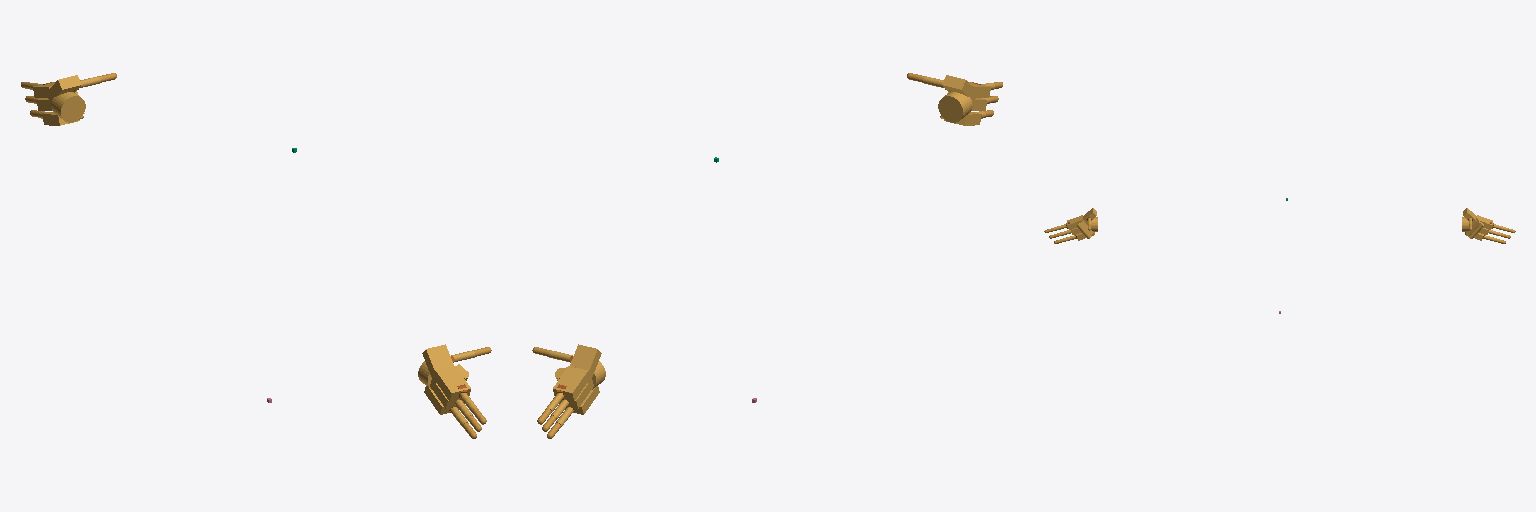
--- Facts derived from the render (not from the file) ---
The picture shows the robot from 3 angles, left to right: view 1: azimuth 30°, elevation 25°; view 2: azimuth 150°, elevation 25°; view 3: azimuth 270°, elevation 25°; orthographic projection.
Robot: atlas — 107 links, 106 joints (52 revolute, 1 continuous, 53 fixed); root link pelvis; default pose: all joints at 0.
Visible links, largest first — view 1: right_palm, left_palm; view 2: left_palm, right_palm; view 3: right_palm, left_palm.
Link boxes in pixels (bbox=[...]): right_palm: bbox=[418, 344, 470, 414]; left_palm: bbox=[33, 75, 85, 125]; left_palm: bbox=[553, 344, 605, 414]; right_palm: bbox=[938, 75, 990, 125]; right_palm: bbox=[1067, 208, 1097, 240]; left_palm: bbox=[1462, 208, 1492, 240].
Size in the robot's own frame: 0.196 by 2.44 by 0.7021 metres.
Meshes: 30 distinct files referenced, 0 mesh visuals loaded (none loaded); not drawn: 30 (reference not matched to a file when rendering).

URDF robot description (atlas):
<?xml version="1.0" ?>
<!-- =================================================================================== -->
<!-- |    This document was autogenerated by xacro from /tmp/buildd/drcsim-2.6.1/ros/atlas_description/robots/atlas_sandia_hands.urdf.xacro | -->
<!-- |    EDITING THIS FILE BY HAND IS NOT RECOMMENDED                                 | -->
<!-- =================================================================================== -->
<robot name="atlas" xmlns:xacro="http://www.ros.org/wiki/xacro">
  <link name="l_clav">
    <inertial>
      <mass value="2.369"/>
      <origin rpy="0 -0 0" xyz="0.014 0.058 0.029"/>
      <inertia ixx="0.004" ixy="0.001" ixz="0" iyy="0.006" iyz="0" izz="0.007"/>
    </inertial>
    <visual>
      <origin rpy="1.04719755 0 0" xyz="0 0 0"/>
      <geometry>
        <mesh filename="package://atlas/meshes/l_clav.dae" scale="1 1 1"/>
      </geometry>
    </visual>
    <collision group="default">
      <origin rpy="0 1.5707963267949 0" xyz="0 0.0697 0.0261"/>
      <geometry>
        <cylinder length="0.1525" radius="0.045"/>
      </geometry>
    </collision>
    <collision group="other">
      <origin rpy="1.0472 0 0" xyz="-0.005 -0.0074 -0.0538"/>
      <geometry>
        <box size="0.13 0.15 0.05"/>
      </geometry>
    </collision>
  </link>
  <link name="l_farm">
    <inertial>
      <mass value="0.981"/>
      <origin rpy="0 -0 0" xyz="0 0.041 0"/>
      <inertia ixx="0.003" ixy="0" ixz="0" iyy="0.001" iyz="0" izz="0.003"/>
    </inertial>
    <visual>
      <origin rpy="0 -0 0" xyz="0 -0.06 0"/>
      <geometry>
        <mesh filename="package://atlas/meshes/l_farm.dae" scale="1 1 1"/>
      </geometry>
    </visual>
    <collision group="default">
      <origin rpy="0 1.5708 0" xyz="0.0 0.065 0.004"/>
      <geometry>
        <cylinder length="0.125" radius="0.045"/>
      </geometry>
    </collision>
    <collision group="other">
      <origin rpy="0 0 0" xyz="0.001 0.015 -0.002"/>
      <geometry>
        <box size="0.135 0.1 0.045"/>
      </geometry>
    </collision>
  </link>
  <link name="l_foot">
    <inertial>
      <mass value="0.867"/>
      <origin rpy="0 -0 0" xyz="0.027 0 -0.067"/>
      <inertia ixx="0.002" ixy="0" ixz="0" iyy="0.00350421" iyz="0" izz="0.00400651"/>
    </inertial>
    <visual>
      <origin rpy="0 -0 0" xyz="0 0 0"/>
      <geometry>
        <mesh filename="package://atlas/meshes/l_foot.dae" scale="1 1 1"/>
      </geometry>
    </visual>
    <!-- bottom -->
    <collision group="default">
      <origin rpy="0 0 0" xyz="0.048 0 -0.056119"/>
      <geometry>
        <box size="0.26 0.124887 0.05"/>
      </geometry>
    </collision>
    <!-- ankle FIXME: adding this collision body destabilizes robot, shouldn't
        <collision group="other">
          <origin xyz="0.0 0 -0.0528735" rpy="0 0 0"/>
          <geometry>
            <cylinder radius="0.0373" length="0.037827"/>
          </geometry>
        </collision>
        -->
  </link>
  <link name="l_hand">
    <inertial>
      <mass value="2.263"/>
      <origin rpy="0 -0 0" xyz="0 0.093 0"/>
      <inertia ixx="0.01" ixy="0" ixz="0" iyy="0.002" iyz="0" izz="0.01"/>
    </inertial>
    <visual>
      <origin rpy="0 -0 0" xyz="0 0 0"/>
      <geometry>
        <mesh filename="package://atlas/meshes/l_hand.dae" scale="1 1 1"/>
      </geometry>
    </visual>
    <collision group="default">
      <origin rpy="1.5707963267949 0 0" xyz="0.001 0.1 0.01"/>
      <geometry>
        <cylinder length="0.05" radius="0.03"/>
      </geometry>
    </collision>
    <collision group="other">
      <origin rpy="0 0 0" xyz="0.001 0.05 0.01"/>
      <geometry>
        <box size="0.13 0.09 0.07"/>
      </geometry>
    </collision>
  </link>
  <link name="l_larm">
    <inertial>
      <mass value="2.148"/>
      <origin rpy="0 -0 0" xyz="-0.003 0.099 -0.014"/>
      <inertia ixx="0.005" ixy="0" ixz="0" iyy="0.003" iyz="0" izz="0.006"/>
    </inertial>
    <visual>
      <origin rpy="0 -0 0" xyz="0 0 0"/>
      <geometry>
        <mesh filename="package://atlas/meshes/l_larm.dae" scale="1 1 1"/>
      </geometry>
    </visual>
    <collision group="default">
      <origin rpy="1.5707963267949 0 0" xyz="0.001 0.127 0.00"/>
      <geometry>
        <cylinder length="0.125" radius="0.045"/>
      </geometry>
    </collision>
    <collision group="other">
      <origin rpy="0 0 0" xyz="0.001 0.051 0.0"/>
      <geometry>
        <box size="0.135 0.15 0.06"/>
      </geometry>
    </collision>
  </link>
  <link name="l_lglut">
    <inertial>
      <mass value="0.803"/>
      <origin rpy="0 -0 0" xyz="0.0133341 0.0170484 -0.0312052"/>
      <inertia ixx="0.0453457" ixy="-2.24344e-05" ixz="2.50508e-06" iyy="0.0174182" iyz="0.000137862" izz="0.0071591"/>
    </inertial>
    <visual>
      <origin rpy="0 -0 0" xyz="0 0 0"/>
      <geometry>
        <mesh filename="package://atlas/meshes/l_lglut.dae" scale="1 1 1"/>
      </geometry>
    </visual>
    <collision group="default">
      <origin rpy="1.5707963267949 0 0" xyz="0.049968 0.022488 -0.0501165"/>
      <geometry>
        <cylinder length="0.060306" radius="0.02009687"/>
      </geometry>
    </collision>
    <collision group="other">
      <origin rpy="0 1.5707963267949 0" xyz="0 0 0"/>
      <geometry>
        <cylinder length="0.12" radius="0.02"/>
      </geometry>
    </collision>
  </link>
  <link name="l_lleg">
    <inertial>
      <mass value="4.367"/>
      <origin rpy="0 -0 0" xyz="0.001 0 -0.187"/>
      <inertia ixx="0.077" ixy="0" ixz="-0.003" iyy="0.076" iyz="0" izz="0.01"/>
    </inertial>
    <visual>
      <origin rpy="0 -0 0" xyz="0 0 0"/>
      <geometry>
        <mesh filename="package://atlas/meshes/l_lleg.dae" scale="1.0 1.0 1.0"/>
      </geometry>
    </visual>
    <collision group="default">
      <origin rpy="0 0.10 0" xyz="0.02 0.00295 -0.18"/>
      <geometry>
        <cylinder length="0.40" radius="0.07"/>
      </geometry>
    </collision>
  </link>
  <link name="l_scap">
    <inertial>
      <mass value="2.707"/>
      <origin rpy="0 -0 0" xyz="-0.002 0.108 0"/>
      <inertia ixx="0.01" ixy="0" ixz="0" iyy="0.005" iyz="0" izz="0.013"/>
    </inertial>
    <visual>
      <origin rpy="0 0 0" xyz="0 0 0"/>
      <geometry>
        <mesh filename="package://atlas/meshes/l_scap.dae" scale="1 1 1"/>
      </geometry>
    </visual>
    <collision group="default">
      <origin rpy="1.5707963267949 0 0" xyz="0.001 0.12651 0.01521"/>
      <geometry>
        <cylinder length="0.125" radius="0.045"/>
      </geometry>
    </collision>
    <collision group="other">
      <origin rpy="0 0 0" xyz="0.001 0.05 0.016"/>
      <geometry>
        <box size="0.15 0.15 0.06"/>
      </geometry>
    </collision>
  </link>
  <link name="l_talus">
    <inertial>
      <mass value="0.867"/>
      <origin rpy="0 -0 0" xyz="0 0 0"/>
      <inertia ixx="0.001" ixy="0" ixz="0" iyy="0.00350421" iyz="0" izz="0.00400651"/>
    </inertial>
    <visual>
      <origin rpy="0 -0 0" xyz="0 0 0"/>
      <geometry>
        <mesh filename="package://atlas/meshes/l_talus.dae" scale="1 1 1"/>
      </geometry>
    </visual>
    <collision group="default">
      <origin rpy="0 1.5707963267949 0" xyz="0 0 0"/>
      <geometry>
        <cylinder length="0.029542" radius="0.010181"/>
      </geometry>
    </collision>
    <collision group="other">
      <origin rpy="1.5707963267949 0 0" xyz="0 0 0"/>
      <geometry>
        <cylinder length="0.010059" radius="0.010348"/>
      </geometry>
    </collision>
  </link>
  <link name="l_uarm">
    <inertial>
      <mass value="1.881"/>
      <origin rpy="0 -0 0" xyz="0.007 0.114 0.008"/>
      <inertia ixx="0.002" ixy="0" ixz="0" iyy="0.003" iyz="0" izz="0.003"/>
    </inertial>
    <visual>
      <origin rpy="0 -0 0" xyz="0 0 0"/>
      <geometry>
        <mesh filename="package://atlas/meshes/l_uarm.dae" scale="1 1 1"/>
      </geometry>
    </visual>
    <collision group="default">
      <origin rpy="0 1.5708 0" xyz="0.001 0.111 0.0"/>
      <geometry>
        <cylinder length="0.125" radius="0.045"/>
      </geometry>
    </collision>
    <collision group="other">
      <origin rpy="0 1.5707963267949 0" xyz="0.001 0.043 0.01"/>
      <geometry>
        <box size="0.04 0.07 0.13"/>
      </geometry>
    </collision>
  </link>
  <link name="l_uglut">
    <inertial>
      <mass value="1.51622"/>
      <origin rpy="0 -0 0" xyz="0.00529262 -0.00344732 0.00313046"/>
      <inertia ixx="0.0327037" ixy="-3.79607e-08" ixz="-2.79549e-05" iyy="0.0174182" iyz="-3.2735e-08" izz="0.0071591"/>
    </inertial>
    <visual>
      <origin rpy="0 -0 0" xyz="0 0 0"/>
      <geometry>
        <mesh filename="package://atlas/meshes/l_uglut.dae" scale="1 1 1"/>
      </geometry>
    </visual>
    <collision group="default">
      <origin rpy="0 1.5707963267949 0" xyz="0 0 0"/>
      <geometry>
        <cylinder length="0.078396" radius="0.019096"/>
      </geometry>
    </collision>
    <collision group="other">
      <origin rpy="0 0 0" xyz="0 0 0"/>
      <geometry>
        <cylinder length="0.080842" radius="0.019841"/>
      </geometry>
    </collision>
  </link>
  <link name="l_uleg">
    <inertial>
      <mass value="7.227"/>
      <origin rpy="0 -0 0" xyz="0 0 -0.21"/>
      <inertia ixx="0.0453457" ixy="0" ixz="0" iyy="0.09" iyz="0" izz="0.0071591"/>
    </inertial>
    <visual>
      <origin rpy="0 -0 0" xyz="0 0 0"/>
      <geometry>
        <mesh filename="package://atlas/meshes/l_uleg.dae" scale="1.0 1.0 1.0"/>
      </geometry>
    </visual>
    <collision group="default">
      <origin rpy="0 0 0" xyz="-0.0179 0.02085 -0.13"/>
      <geometry>
        <cylinder length="0.10" radius="0.1"/>
      </geometry>
    </collision>
    <collision group="other">
      <origin rpy="0 -0.3 0" xyz="-0.03 0.01 -0.23"/>
      <geometry>
        <cylinder length="0.15" radius="0.07"/>
      </geometry>
    </collision>
    <collision group="other">
      <origin rpy="0 0.3 0" xyz="-0.005 0.01 -0.23"/>
      <geometry>
        <cylinder length="0.15" radius="0.07"/>
      </geometry>
    </collision>
    <collision group="other">
      <origin rpy="-0.25 0 0" xyz="-0.02 0.03 -0.23"/>
      <geometry>
        <cylinder length="0.15" radius="0.07"/>
      </geometry>
    </collision>
  </link>
  <link name="ltorso">
    <inertial>
      <mass value="1.62729"/>
      <origin rpy="0 -0 0" xyz="-0.0112984 -3.15366e-06 0.0746835"/>
      <inertia ixx="0.0646646" ixy="-5.04491e-08" ixz="-0.000342157" iyy="0.050298" iyz="4.87119e-07" izz="0.10973"/>
    </inertial>
    <visual>
      <origin rpy="0 -0 0" xyz="0 0 0"/>
      <geometry>
        <mesh filename="package://atlas/meshes/ltorso.dae" scale="1 1 1"/>
      </geometry>
    </visual>
    <!-- this part is completely internal
        <collision group="default">
          <origin rpy="0 0 0" xyz="0 0 0.039762"/>
          <geometry>
            <cylinder radius="0.025918" length="0.076922"/>
          </geometry>
        </collision>
        <collision group="other">
          <origin rpy="1.5707963267949 0 0" xyz="0 0.0250065 0.09025"/>
          <geometry>
            <cylinder radius="0.014828" length="0.020367"/>
          </geometry>
        </collision>
        <collision group="other">
          <origin rpy="1.5707963267949 0 0" xyz="0 -0.0248895 0.09025"/>
          <geometry>
            <cylinder radius="0.014828" length="0.020169"/>
          </geometry>
        </collision>
        -->
  </link>
  <link name="mtorso">
    <inertial>
      <mass value="3.8068"/>
      <origin rpy="0 -0 0" xyz="-0.00816266 -0.0131245 0.0305974"/>
      <inertia ixx="0.1975" ixy="-6.10764e-05" ixz="3.94009e-05" iyy="0.544742" iyz="5.27463e-05" izz="0.10973"/>
    </inertial>
    <visual>
      <origin rpy="0 -0 0" xyz="0 0 0"/>
      <geometry>
        <mesh filename="package://atlas/meshes/mtorso.dae" scale="1 1 1"/>
      </geometry>
    </visual>
    <collision group="default">
      <origin rpy="1.5707963267949 0 0" xyz="0 0 0"/>
      <geometry>
        <cylinder length="0.03" radius="0.017"/>
      </geometry>
    </collision>
    <collision group="other">
      <origin rpy="0 1.5707963267949 0" xyz="0.0285 0 0.05"/>
      <geometry>
        <cylinder length="0.02" radius="0.015"/>
      </geometry>
    </collision>
    <collision group="other">
      <origin rpy="0 1.5707963267949 0" xyz="-0.0285 0 0.05"/>
      <geometry>
        <cylinder length="0.02" radius="0.015"/>
      </geometry>
    </collision>
  </link>
  <link name="pelvis">
    <inertial>
      <mass value="12.54638"/>
      <origin rpy="0 -0 0" xyz="0.0111 0 0.0271"/>
      <inertia ixx="0.0327037" ixy="0.0008" ixz="-0.0007" iyy="0.0174182" iyz="-0.0005" izz="0.118059"/>
    </inertial>
    <visual>
      <origin rpy="0 -0 0" xyz="0 0 0"/>
      <geometry>
        <mesh filename="package://atlas/meshes/pelvis.dae" scale="1.0 1.0 1.0"/>
      </geometry>
    </visual>
    <collision group="default">
      <origin rpy="1.5707963267949 0 0" xyz="0.046 0.0 -0.02"/>
      <geometry>
        <cylinder length="0.06" radius="0.11"/>
      </geometry>
    </collision>
    <collision group="other">
      <origin rpy="1.5707963267949 0 0" xyz="-0.03 0.0 -0.02"/>
      <geometry>
        <cylinder length="0.06" radius="0.11"/>
      </geometry>
    </collision>
    <collision group="other">
      <origin rpy="0 0 0" xyz="0.01 0.042 0.09"/>
      <geometry>
        <cylinder length="0.05" radius="0.16"/>
      </geometry>
    </collision>
    <collision group="other">
      <origin rpy="0 0 0" xyz="0.01 -0.042 0.09"/>
      <geometry>
        <cylinder length="0.05" radius="0.16"/>
      </geometry>
    </collision>
    <collision group="other">
      <origin rpy="0 0 0" xyz="-0.1 0 -0.05"/>
      <geometry>
        <box size="0.1 0.15 0.2"/>
      </geometry>
    </collision>
  </link>
  <link name="r_clav">
    <inertial>
      <mass value="2.369"/>
      <origin rpy="0 -0 0" xyz="0.014 -0.058 0.029"/>
      <inertia ixx="0.004" ixy="-0.001" ixz="0" iyy="0.006" iyz="0" izz="0.007"/>
    </inertial>
    <visual>
      <origin rpy="-1.04719755 0 0" xyz="0 0 0"/>
      <geometry>
        <mesh filename="package://atlas/meshes/r_clav.dae" scale="1 1 1"/>
      </geometry>
    </visual>
    <collision group="default">
      <origin rpy="0 1.5707963267949 0" xyz="0 -0.0697 0.0261"/>
      <geometry>
        <cylinder length="0.1525" radius="0.045"/>
      </geometry>
    </collision>
    <collision group="other">
      <origin rpy="-1.0472 0 0" xyz="-0.005 0.0074 -0.0538"/>
      <geometry>
        <box size="0.13 0.15 0.05"/>
      </geometry>
    </collision>
  </link>
  <link name="r_farm">
    <inertial>
      <mass value="0.981"/>
      <origin rpy="0 -0 0" xyz="0 -0.041 0"/>
      <inertia ixx="0.003" ixy="0" ixz="0" iyy="0.001" iyz="0" izz="0.003"/>
    </inertial>
    <visual>
      <origin rpy="0 -0 0" xyz="0 0.06 0"/>
      <geometry>
        <mesh filename="package://atlas/meshes/r_farm.dae" scale="1 1 1"/>
      </geometry>
    </visual>
    <collision group="default">
      <origin rpy="0 1.5708 0" xyz="0.0 -0.065 0.004"/>
      <geometry>
        <cylinder length="0.125" radius="0.045"/>
      </geometry>
    </collision>
    <collision group="other">
      <origin rpy="0 0 0" xyz="0.001 -0.015 -0.002"/>
      <geometry>
        <box size="0.135 0.1 0.045"/>
      </geometry>
    </collision>
  </link>
  <link name="r_foot">
    <inertial>
      <mass value="0.867"/>
      <origin rpy="0 -0 0" xyz="0.027 0 -0.067"/>
      <inertia ixx="0.002" ixy="0" ixz="0" iyy="0.00350421" iyz="0" izz="0.00400651"/>
    </inertial>
    <visual>
      <origin rpy="0 -0 0" xyz="0 0 0"/>
      <geometry>
        <mesh filename="package://atlas/meshes/r_foot.dae" scale="1 1 1"/>
      </geometry>
    </visual>
    <!-- bottom -->
    <collision group="default">
      <origin rpy="0 0 0" xyz="0.048 0 -0.056119"/>
      <geometry>
        <box size="0.26 0.124887 0.05"/>
      </geometry>
    </collision>
    <!-- ankle FIXME: adding this collision body destabilizes robot, shouldn't
        <collision group="other">
          <origin xyz="0.0 0 -0.0528735" rpy="0 0 0"/>
          <geometry>
            <cylinder radius="0.0373" length="0.037827"/>
          </geometry>
        </collision>
        -->
  </link>
  <link name="r_hand">
    <inertial>
      <mass value="2.263"/>
      <origin rpy="0 -0 0" xyz="0 -0.093 0"/>
      <inertia ixx="0.01" ixy="0" ixz="0" iyy="0.002" iyz="0" izz="0.01"/>
    </inertial>
    <visual>
      <origin rpy="0 -0 0" xyz="0 0 0"/>
      <geometry>
        <mesh filename="package://atlas/meshes/r_hand.dae" scale="1 1 1"/>
      </geometry>
    </visual>
    <collision group="default">
      <origin rpy="1.5707963267949 0 0" xyz="0.001 -0.1 0.01"/>
      <geometry>
        <cylinder length="0.05" radius="0.03"/>
      </geometry>
    </collision>
    <collision group="other">
      <origin rpy="0 0 0" xyz="0.001 -0.05 0.01"/>
      <geometry>
        <box size="0.13 0.09 0.07"/>
      </geometry>
    </collision>
  </link>
  <link name="r_larm">
    <inertial>
      <mass value="2.148"/>
      <origin rpy="0 -0 0" xyz="-0.003 -0.099 -0.014"/>
      <inertia ixx="0.005" ixy="0" ixz="0" iyy="0.003" iyz="0" izz="0.006"/>
    </inertial>
    <visual>
      <origin rpy="0 -0 0" xyz="0 0 0"/>
      <geometry>
        <mesh filename="package://atlas/meshes/r_larm.dae" scale="1.0 1.0 1.0"/>
      </geometry>
    </visual>
    <collision group="default">
      <origin rpy="1.5707963267949 0 0" xyz="0.001 -0.127 0.00"/>
      <geometry>
        <cylinder length="0.125" radius="0.045"/>
      </geometry>
    </collision>
    <collision group="other">
      <origin rpy="0 0 0" xyz="0.001 -0.051 0.0"/>
      <geometry>
        <box size="0.135 0.15 0.06"/>
      </geometry>
    </collision>
  </link>
  <link name="r_lglut">
    <inertial>
      <mass value="0.803"/>
      <origin rpy="0 -0 0" xyz="0.0133341 -0.0170484 -0.0312052"/>
      <inertia ixx="0.0453457" ixy="2.24344e-05" ixz="2.50508e-06" iyy="0.0174182" iyz="-0.000137862" izz="0.0071591"/>
    </inertial>
    <visual>
      <origin rpy="0 -0 0" xyz="0 0 0"/>
      <geometry>
        <mesh filename="package://atlas/meshes/r_lglut.dae" scale="1.0 1.0 1.0"/>
      </geometry>
    </visual>
    <collision group="default">
      <origin rpy="1.5707963267949 0 0" xyz="0.049968 -0.022488 -0.0501165"/>
      <geometry>
        <cylinder length="0.060306" radius="0.02009687"/>
      </geometry>
    </collision>
    <collision group="other">
      <origin rpy="0 1.5707963267949 0" xyz="0 0 0"/>
      <geometry>
        <cylinder length="0.12" radius="0.02"/>
      </geometry>
    </collision>
  </link>
  <link name="r_lleg">
    <inertial>
      <mass value="4.367"/>
      <origin rpy="0 -0 0" xyz="0.001 0 -0.187"/>
      <inertia ixx="0.077" ixy="-0" ixz="-0.003" iyy="0.076" iyz="-0" izz="0.01"/>
    </inertial>
    <visual>
      <origin rpy="0 -0 0" xyz="0 0 0"/>
      <geometry>
        <mesh filename="package://atlas/meshes/r_lleg.dae" scale="1.0 1.0 1.0"/>
      </geometry>
    </visual>
    <collision group="default">
      <origin rpy="0 0.10 0" xyz="0.02 -0.00295 -0.18"/>
      <geometry>
        <cylinder length="0.40" radius="0.07"/>
      </geometry>
    </collision>
  </link>
  <link name="r_scap">
    <inertial>
      <mass value="2.707"/>
      <origin rpy="0 -0 0" xyz="-0.002 -0.108 0"/>
      <inertia ixx="0.01" ixy="0" ixz="0" iyy="0.005" iyz="0" izz="0.013"/>
    </inertial>
    <visual>
      <origin rpy="0 -0 0" xyz="0 0 0"/>
      <geometry>
        <mesh filename="package://atlas/meshes/r_scap.dae" scale="1 1 1"/>
      </geometry>
    </visual>
    <collision group="default">
      <origin rpy="1.5707963267949 0 0" xyz="0.001 -0.12651 0.01521"/>
      <geometry>
        <cylinder length="0.125" radius="0.045"/>
      </geometry>
    </collision>
    <collision group="other">
      <origin rpy="0 0 0" xyz="0.001 -0.05 0.016"/>
      <geometry>
        <box size="0.15 0.15 0.06"/>
      </geometry>
    </collision>
  </link>
  <link name="r_talus">
    <inertial>
      <mass value="0.867"/>
      <origin rpy="0 -0 0" xyz="0 0 0"/>
      <inertia ixx="0.001" ixy="0" ixz="0" iyy="0.00350421" iyz="0" izz="0.00400651"/>
    </inertial>
    <visual>
      <origin rpy="0 -0 0" xyz="0 0 0"/>
      <geometry>
        <mesh filename="package://atlas/meshes/r_talus.dae" scale="1 1 1"/>
      </geometry>
    </visual>
    <collision group="default">
      <origin rpy="0 1.5707963267949 0" xyz="0 0 0"/>
      <geometry>
        <cylinder length="0.029542" radius="0.010181"/>
      </geometry>
    </collision>
    <collision group="other">
      <origin rpy="1.5707963267949 0 0" xyz="0 0 0"/>
      <geometry>
        <cylinder length="0.010059" radius="0.010348"/>
      </geometry>
    </collision>
  </link>
  <link name="r_uarm">
    <inertial>
      <mass value="1.881"/>
      <origin rpy="0 -0 0" xyz="0.007 -0.114 0.008"/>
      <inertia ixx="0.002" ixy="0" ixz="0" iyy="0.003" iyz="0" izz="0.003"/>
    </inertial>
    <visual>
      <origin rpy="0 -0 0" xyz="0 0 0"/>
      <geometry>
        <mesh filename="package://atlas/meshes/r_uarm.dae" scale="1.0 1.0 1.0"/>
      </geometry>
    </visual>
    <collision group="default">
      <origin rpy="0 1.5708 0" xyz="0.001 -0.111 0.0"/>
      <geometry>
        <cylinder length="0.125" radius="0.045"/>
      </geometry>
    </collision>
    <collision group="other">
      <origin rpy="0 1.5707963267949 0" xyz="0.001 -0.043 0.01"/>
      <geometry>
        <box size="0.04 0.07 0.13"/>
      </geometry>
    </collision>
  </link>
  <link name="r_uglut">
    <inertial>
      <mass value="1.51622"/>
      <origin rpy="0 -0 0" xyz="0.00529262 0.00344732 0.00313046"/>
      <inertia ixx="0.0327037" ixy="3.79607e-08" ixz="-2.79549e-05" iyy="0.0174182" iyz="3.2735e-08" izz="0.0071591"/>
    </inertial>
    <visual>
      <origin rpy="0 -0 0" xyz="0 0 0"/>
      <geometry>
        <mesh filename="package://atlas/meshes/r_uglut.dae" scale="1.0 1.0 1.0"/>
      </geometry>
    </visual>
    <collision group="default">
      <origin rpy="0 1.5707963267949 0" xyz="0 0 0"/>
      <geometry>
        <cylinder length="0.078396" radius="0.019096"/>
      </geometry>
    </collision>
    <collision group="other">
      <origin rpy="0 0 0" xyz="0 0 0"/>
      <geometry>
        <cylinder length="0.080842" radius="0.019841"/>
      </geometry>
    </collision>
  </link>
  <link name="r_uleg">
    <inertial>
      <mass value="7.227"/>
      <origin rpy="0 -0 0" xyz="0 0 -0.21"/>
      <inertia ixx="0.0453457" ixy="0" ixz="0" iyy="0.09" iyz="0" izz="0.0071591"/>
    </inertial>
    <visual>
      <origin rpy="0 -0 0" xyz="0 0 0"/>
      <geometry>
        <mesh filename="package://atlas/meshes/r_uleg.dae" scale="1.0 1.0 1.0"/>
      </geometry>
    </visual>
    <collision group="default">
      <origin rpy="0 0 0" xyz="-0.0179 -0.02085 -0.13"/>
      <geometry>
        <cylinder length="0.10" radius="0.1"/>
      </geometry>
    </collision>
    <collision group="other">
      <origin rpy="0 -0.3 0" xyz="-0.03 -0.01 -0.23"/>
      <geometry>
        <cylinder length="0.15" radius="0.07"/>
      </geometry>
    </collision>
    <collision group="other">
      <origin rpy="0 0.3 0" xyz="-0.005 -0.01 -0.23"/>
      <geometry>
        <cylinder length="0.15" radius="0.07"/>
      </geometry>
    </collision>
    <collision group="other">
      <origin rpy="0.25 0 0" xyz="-0.02 -0.03 -0.23"/>
      <geometry>
        <cylinder length="0.15" radius="0.07"/>
      </geometry>
    </collision>
  </link>
  <link name="utorso">
    <inertial>
      <mass value="15.2272"/>
      <origin rpy="0 -0 0" xyz="0.02 -0.001 0.211"/>
      <inertia ixx="0.395" ixy="0" ixz="0.083" iyy="0.544742" iyz="-0.003" izz="0.10973"/>
    </inertial>
    <visual>
      <origin rpy="0 -0 0" xyz="0 0 0"/>
      <geometry>
        <mesh filename="package://atlas/meshes/utorso.dae" scale="1 1 1"/>
      </geometry>
    </visual>
    <collision group="default">
      <origin rpy="0 -0 0" xyz="0.0446 0 0.1869"/>
      <geometry>
        <box size="0.3188 0.24 0.3162"/>
      </geometry>
    </collision>
    <collision group="other">
      <origin rpy="-0.5236 0 0" xyz="0.024 0.16 0.18"/>
      <geometry>
        <cylinder length="0.22375" radius="0.0363"/>
      </geometry>
    </collision>
    <collision group="other">
      <origin rpy="0.5236 0 0" xyz="0.024 -0.16 0.18"/>
      <geometry>
        <cylinder length="0.22375" radius="0.0363"/>
      </geometry>
    </collision>
  </link>
  <joint name="back_lbz" type="revolute">
    <origin rpy="0 -0 0" xyz="-0.0125 0 0"/>
    <axis xyz="0 0 1"/>
    <parent link="pelvis"/>
    <child link="ltorso"/>
    <dynamics damping="10" friction="0"/>
    <limit effort="124.016" lower="-0.610865" upper="0.610865" velocity="12"/>
    <safety_controller k_position="100" k_velocity="100" soft_lower_limit="-10.6109" soft_upper_limit="10.6109"/>
  </joint>
  <joint name="back_mby" type="revolute">
    <origin rpy="0 -0 0" xyz="0 0 0.09"/>
    <axis xyz="0 1 0"/>
    <parent link="ltorso"/>
    <child link="mtorso"/>
    <dynamics damping="10" friction="0"/>
    <limit effort="206.843" lower="-1.2" upper="1.28" velocity="12"/>
    <safety_controller k_position="100" k_velocity="100" soft_lower_limit="-11.2" soft_upper_limit="11.28"/>
  </joint>
  <joint name="back_ubx" type="revolute">
    <origin rpy="0 -0 0" xyz="0 0 0.05"/>
    <axis xyz="1 0 0"/>
    <parent link="mtorso"/>
    <child link="utorso"/>
    <dynamics damping="10" friction="0"/>
    <limit effort="94.91" lower="-0.790809" upper="0.790809" velocity="12"/>
    <safety_controller k_position="100" k_velocity="100" soft_lower_limit="-10.7908" soft_upper_limit="10.7908"/>
  </joint>
  <joint name="l_arm_elx" type="revolute">
    <origin rpy="0 -0 0" xyz="0 0.121 0.013"/>
    <axis xyz="1 0 0"/>
    <parent link="l_uarm"/>
    <child link="l_larm"/>
    <dynamics damping="1.0" friction="0"/>
    <limit effort="114" lower="0" upper="2.35619" velocity="12"/>
    <safety_controller k_position="100" k_velocity="100" soft_lower_limit="-10" soft_upper_limit="12.3562"/>
  </joint>
  <joint name="l_arm_ely" type="revolute">
    <origin rpy="0 -0 0" xyz="0 0.185 0"/>
    <axis xyz="0 1 0"/>
    <parent link="l_scap"/>
    <child link="l_uarm"/>
    <dynamics damping="1.0" friction="0"/>
    <limit effort="114" lower="0" upper="3.14159" velocity="12"/>
    <safety_controller k_position="100" k_velocity="100" soft_lower_limit="-10" soft_upper_limit="13.1416"/>
  </joint>
  <joint name="l_arm_mwx" type="revolute">
    <origin rpy="0 -0 0" xyz="0 0.058 0"/>
    <axis xyz="1 0 0"/>
    <parent link="l_farm"/>
    <child link="l_hand"/>
    <dynamics damping="1.0" friction="0"/>
    <limit effort="60" lower="-0.436" upper="1.571" velocity="12"/>
    <safety_controller k_position="100" k_velocity="100" soft_lower_limit="-10.436" soft_upper_limit="11.571"/>
  </joint>
  <joint name="l_arm_shx" type="revolute">
    <origin rpy="0 -0 0" xyz="0 0.075 0.036"/>
    <axis xyz="1 0 0"/>
    <parent link="l_clav"/>
    <child link="l_scap"/>
    <dynamics damping="1.0" friction="0"/>
    <limit effort="170" lower="-1.39626" upper="1.74533" velocity="12"/>
    <safety_controller k_position="100" k_velocity="100" soft_lower_limit="-11.3963" soft_upper_limit="11.7453"/>
  </joint>
  <joint name="l_arm_usy" type="revolute">
    <origin rpy="0 -0 0" xyz="0.024 0.221 0.289"/>
    <axis xyz="0 0.5 0.866025"/>
    <parent link="utorso"/>
    <child link="l_clav"/>
    <dynamics damping="1.0" friction="0"/>
    <limit effort="212" lower="-1.9635" upper="1.9635" velocity="12"/>
    <safety_controller k_position="100" k_velocity="100" soft_lower_limit="-11.9635" soft_upper_limit="11.9635"/>
  </joint>
  <joint name="l_arm_uwy" type="revolute">
    <origin rpy="0 -0 0" xyz="0 0.188 -0.013"/>
    <axis xyz="0 1 0"/>
    <parent link="l_larm"/>
    <child link="l_farm"/>
    <dynamics damping="1.0" friction="0"/>
    <limit effort="114" lower="-1.571" upper="1.571" velocity="12"/>
    <safety_controller k_position="100" k_velocity="100" soft_lower_limit="-11.571" soft_upper_limit="11.571"/>
  </joint>
  <joint name="l_leg_kny" type="revolute">
    <origin rpy="0 -0 0" xyz="-0.05 0 -0.374"/>
    <axis xyz="0 1 0"/>
    <parent link="l_uleg"/>
    <child link="l_lleg"/>
    <dynamics damping="1.0" friction="0"/>
    <limit effort="220" lower="0" upper="2.45" velocity="12"/>
    <safety_controller k_position="100" k_velocity="100" soft_lower_limit="-10" soft_upper_limit="12.45"/>
  </joint>
  <joint name="l_leg_lax" type="revolute">
    <origin rpy="0 -0 0" xyz="0 0 0"/>
    <axis xyz="1 0 0"/>
    <parent link="l_talus"/>
    <child link="l_foot"/>
    <dynamics damping="1.0" friction="0"/>
    <limit effort="90" lower="-0.436" upper="0.436" velocity="12"/>
    <safety_controller k_position="100" k_velocity="100" soft_lower_limit="-10.436" soft_upper_limit="10.436"/>
  </joint>
  <joint name="l_leg_lhy" type="revolute">
    <origin rpy="0 -0 0" xyz="0.05 0 -0.05"/>
    <axis xyz="0 1 0"/>
    <parent link="l_lglut"/>
    <child link="l_uleg"/>
    <dynamics damping="1.0" friction="0"/>
    <limit effort="260" lower="-1.75" upper="0.524" velocity="12"/>
    <safety_controller k_position="100" k_velocity="100" soft_lower_limit="-11.75" soft_upper_limit="10.524"/>
  </joint>
  <joint name="l_leg_mhx" type="revolute">
    <origin rpy="0 -0 0" xyz="0 0 0"/>
    <axis xyz="1 0 0"/>
    <parent link="l_uglut"/>
    <child link="l_lglut"/>
    <dynamics damping="1.0" friction="0"/>
    <limit effort="180" lower="-0.47" upper="0.495" velocity="12"/>
    <safety_controller k_position="100" k_velocity="100" soft_lower_limit="-10.47" soft_upper_limit="10.495"/>
  </joint>
  <joint name="l_leg_uay" type="revolute">
    <origin rpy="0 -0 0" xyz="0 0 -0.422"/>
    <axis xyz="0 1 0"/>
    <parent link="l_lleg"/>
    <child link="l_talus"/>
    <dynamics damping="1.0" friction="0"/>
    <limit effort="220" lower="-0.698" upper="0.698" velocity="12"/>
    <safety_controller k_position="100" k_velocity="100" soft_lower_limit="-10.698" soft_upper_limit="10.698"/>
  </joint>
  <joint name="l_leg_uhz" type="revolute">
    <origin rpy="0 -0 0" xyz="0 0.089 0"/>
    <axis xyz="0 0 1"/>
    <parent link="pelvis"/>
    <child link="l_uglut"/>
    <dynamics damping="1.0" friction="0"/>
    <limit effort="110" lower="-0.32" upper="1.14" velocity="12"/>
    <safety_controller k_position="100" k_velocity="100" soft_lower_limit="-10.32" soft_upper_limit="11.14"/>
  </joint>
  <joint name="neck_ay" type="revolute">
    <!-- per slides on sensor head kinematics 2013-02-13 -->
    <origin rpy="0 -0 0" xyz="0.21672 0 0.53796"/>
    <axis xyz="0 1 0"/>
    <parent link="utorso"/>
    <child link="head"/>
    <dynamics damping="1.0" friction="0"/>
    <!-- per slides on sensor head kinematics 2012-12-14 -->
    <limit effort="5" lower="-0.610865238" upper="1.13446401" velocity="12"/>
    <safety_controller k_position="100" k_velocity="100" soft_lower_limit="-10.610865238" soft_upper_limit="11.13446401"/>
  </joint>
  <joint name="r_arm_elx" type="revolute">
    <origin rpy="0 -0 0" xyz="0 -0.121 0.013"/>
    <axis xyz="1 0 0"/>
    <parent link="r_uarm"/>
    <child link="r_larm"/>
    <dynamics damping="1.0" friction="0"/>
    <limit effort="114" lower="-2.35619" upper="0" velocity="12"/>
    <safety_controller k_position="100" k_velocity="100" soft_lower_limit="-12.3562" soft_upper_limit="10"/>
  </joint>
  <joint name="r_arm_ely" type="revolute">
    <origin rpy="0 -0 0" xyz="0 -0.185 0"/>
    <axis xyz="0 1 0"/>
    <parent link="r_scap"/>
    <child link="r_uarm"/>
    <dynamics damping="1.0" friction="0"/>
    <limit effort="114" lower="0" upper="3.14159" velocity="12"/>
    <safety_controller k_position="100" k_velocity="100" soft_lower_limit="-10" soft_upper_limit="13.1416"/>
  </joint>
  <joint name="r_arm_mwx" type="revolute">
    <origin rpy="0 -0 0" xyz="0 -0.058 0"/>
    <axis xyz="1 0 0"/>
    <parent link="r_farm"/>
    <child link="r_hand"/>
    <dynamics damping="1.0" friction="0"/>
    <limit effort="60" lower="-1.571" upper="0.436" velocity="12"/>
    <safety_controller k_position="100" k_velocity="100" soft_lower_limit="-11.571" soft_upper_limit="10.436"/>
  </joint>
  <joint name="r_arm_shx" type="revolute">
    <origin rpy="0 -0 0" xyz="0 -0.075 0.036"/>
    <axis xyz="1 0 0"/>
    <parent link="r_clav"/>
    <child link="r_scap"/>
    <dynamics damping="1.0" friction="0"/>
    <limit effort="170" lower="-1.74533" upper="1.39626" velocity="12"/>
    <safety_controller k_position="100" k_velocity="100" soft_lower_limit="-11.7453" soft_upper_limit="11.3963"/>
  </joint>
  <joint name="r_arm_usy" type="revolute">
    <origin rpy="0 -0 0" xyz="0.024 -0.221 0.289"/>
    <axis xyz="0 0.5 -0.866025"/>
    <parent link="utorso"/>
    <child link="r_clav"/>
    <dynamics damping="1.0" friction="0"/>
    <limit effort="212" lower="-1.9635" upper="1.9635" velocity="12"/>
    <safety_controller k_position="100" k_velocity="100" soft_lower_limit="-11.9635" soft_upper_limit="11.9635"/>
  </joint>
  <joint name="r_arm_uwy" type="revolute">
    <origin rpy="0 -0 0" xyz="0 -0.188 -0.013"/>
    <axis xyz="0 1 0"/>
    <parent link="r_larm"/>
    <child link="r_farm"/>
    <dynamics damping="1.0" friction="0"/>
    <limit effort="114" lower="-1.571" upper="1.571" velocity="12"/>
    <safety_controller k_position="100" k_velocity="100" soft_lower_limit="-11.571" soft_upper_limit="11.571"/>
  </joint>
  <joint name="r_leg_kny" type="revolute">
    <origin rpy="0 -0 0" xyz="-0.05 0 -0.374"/>
    <axis xyz="0 1 0"/>
    <parent link="r_uleg"/>
    <child link="r_lleg"/>
    <dynamics damping="1.0" friction="0"/>
    <limit effort="220" lower="0" upper="2.45" velocity="12"/>
    <safety_controller k_position="100" k_velocity="100" soft_lower_limit="-10" soft_upper_limit="12.45"/>
  </joint>
  <joint name="r_leg_lax" type="revolute">
    <origin rpy="0 -0 0" xyz="0 0 0"/>
    <axis xyz="1 0 0"/>
    <parent link="r_talus"/>
    <child link="r_foot"/>
    <dynamics damping="1.0" friction="0"/>
    <limit effort="90" lower="-0.436" upper="0.436" velocity="12"/>
    <safety_controller k_position="100" k_velocity="100" soft_lower_limit="-10.436" soft_upper_limit="10.436"/>
  </joint>
  <joint name="r_leg_lhy" type="revolute">
    <origin rpy="0 -0 0" xyz="0.05 0 -0.05"/>
    <axis xyz="0 1 0"/>
    <parent link="r_lglut"/>
    <child link="r_uleg"/>
    <dynamics damping="1.0" friction="0"/>
    <limit effort="260" lower="-1.745" upper="0.524" velocity="12"/>
    <safety_controller k_position="100" k_velocity="100" soft_lower_limit="-11.745" soft_upper_limit="10.524"/>
  </joint>
  <joint name="r_leg_mhx" type="revolute">
    <origin rpy="0 -0 0" xyz="0 0 0"/>
    <axis xyz="1 0 0"/>
    <parent link="r_uglut"/>
    <child link="r_lglut"/>
    <dynamics damping="1.0" friction="0"/>
    <limit effort="180" lower="-0.495" upper="0.47" velocity="12"/>
    <safety_controller k_position="100" k_velocity="100" soft_lower_limit="-10.495" soft_upper_limit="10.47"/>
  </joint>
  <joint name="r_leg_uay" type="revolute">
    <origin rpy="0 -0 0" xyz="0 0 -0.422"/>
    <axis xyz="0 1 0"/>
    <parent link="r_lleg"/>
    <child link="r_talus"/>
    <dynamics damping="1.0" friction="0"/>
    <limit effort="220" lower="-0.698" upper="0.698" velocity="12"/>
    <safety_controller k_position="100" k_velocity="100" soft_lower_limit="-10.698" soft_upper_limit="10.698"/>
  </joint>
  <joint name="r_leg_uhz" type="revolute">
    <origin rpy="0 -0 0" xyz="0 -0.089 0"/>
    <axis xyz="0 0 1"/>
    <parent link="pelvis"/>
    <child link="r_uglut"/>
    <dynamics damping="1.0" friction="0"/>
    <limit effort="260" lower="-1.14" upper="0.32" velocity="12"/>
    <safety_controller k_position="100" k_velocity="100" soft_lower_limit="-11.14" soft_upper_limit="10.32"/>
  </joint>
  <link name="right_palm">
    <origin rpy="0 0 0" xyz="0 0 0"/>
    <inertial>
      <mass value="1.303"/>
      <origin xyz="0 0 0"/>
      <!-- solid sphere with 5cm radius -->
      <inertia ixx="0.001303" ixy="0" ixz="0" iyy="0.001303" iyz="0" izz="0.001303"/>
    </inertial>
    <!-- begin simple shape approximation of palm -->
    <collision group="default">
      <origin rpy="0 1.57079632679 -0.9" xyz="0.069 0.016 0.038"/>
      <geometry>
        <cylinder length="0.100" radius="0.013"/>
      </geometry>
    </collision>
    <collision group="other">
      <origin rpy="0.41 0 -0.9" xyz="0.064 0.008 0.021"/>
      <geometry>
        <box size="0.09 .035 .05"/>
      </geometry>
    </collision>
    <collision group="other">
      <origin rpy="0 1.57079632679 0" xyz="0.02 0 -0.005"/>
      <geometry>
        <cylinder length="0.05" radius="0.038"/>
      </geometry>
    </collision>
    <collision group="other">
      <origin rpy="0 0 0.37" xyz="0.11 -0.01 -0.005"/>
      <geometry>
        <box size="0.09 .03 .06"/>
      </geometry>
    </collision>
    <collision group="other">
      <origin rpy="0 0 0.37" xyz="0.09 0.02 -0.005"/>
      <geometry>
        <box size="0.09 .03 .06"/>
      </geometry>
    </collision>
    <collision group="other">
      <origin rpy="0 0 0.37" xyz="0.060 0.05 -0.005"/>
      <geometry>
        <box size="0.09 .03 .06"/>
      </geometry>
    </collision>
    <collision group="other">
      <origin rpy="0 0 0.79" xyz="0.044 -0.04 -0.005"/>
      <geometry>
        <box size="0.09 .03 .06"/>
      </geometry>
    </collision>
    <!--   end simple shape approximation of palm -->
    <!-- begin visual shape approximation of palm -->
    <visual>
      <origin rpy="0 1.57079632679 -0.9" xyz="0.069 0.016 0.038"/>
      <geometry>
        <cylinder length="0.100" radius="0.013"/>
      </geometry>
      <material name="right_sandia_hand_skin">
        <color rgba="0.835 0.655 0.345 1.0"/>
      </material>
    </visual>
    <visual>
      <origin rpy="0.41 0 -0.9" xyz="0.064 0.008 0.021"/>
      <geometry>
        <box size="0.09 .035 .05"/>
      </geometry>
      <material name="right_sandia_hand_skin">
        <color rgba="0.835 0.655 0.345 1.0"/>
      </material>
    </visual>
    <visual>
      <origin rpy="0 1.57079632679 0" xyz="0.02 0 -0.005"/>
      <geometry>
        <cylinder length="0.05" radius="0.038"/>
      </geometry>
      <material name="right_sandia_hand_skin">
        <color rgba="0.835 0.655 0.345 1.0"/>
      </material>
    </visual>
    <visual>
      <origin rpy="0 0 0.37" xyz="0.11 -0.01 -0.005"/>
      <geometry>
        <box size="0.09 .03 .06"/>
      </geometry>
      <material name="right_sandia_hand_skin">
        <color rgba="0.835 0.655 0.345 1.0"/>
      </material>
    </visual>
    <visual>
      <origin rpy="0 0 0.37" xyz="0.09 0.02 -0.005"/>
      <geometry>
        <box size="0.09 .03 .06"/>
      </geometry>
      <material name="right_sandia_hand_skin">
        <color rgba="0.835 0.655 0.345 1.0"/>
      </material>
    </visual>
    <visual>
      <origin rpy="0 0 0.37" xyz="0.060 0.05 -0.005"/>
      <geometry>
        <box size="0.09 .03 .06"/>
      </geometry>
      <material name="right_sandia_hand_skin">
        <color rgba="0.835 0.655 0.345 1.0"/>
      </material>
    </visual>
    <visual>
      <origin rpy="0 0 0.79" xyz="0.044 -0.04 -0.005"/>
      <geometry>
        <box size="0.09 .03 .06"/>
      </geometry>
      <material name="right_sandia_hand_skin">
        <color rgba="0.835 0.655 0.345 1.0"/>
      </material>
    </visual>
    <!--   end visual shape approximation of palm -->
    <!-- begin collision mesh of f2 ->
      <collision group="default">
        <origin xyz="0 0 0" rpy="0 0 0"/>
        <geometry>
          <mesh filename="package://sandia_hand_description/meshes/palm.stl"/>
        </geometry>
      </collision>
      <!-   end collision mesh of f2 -->
    <!-- begin visual mesh of f2    ->
      <visual>
        <origin xyz="0 0 0" rpy="0 0 0"/>
        <geometry>
          <mesh filename="package://sandia_hand_description/meshes/palm.stl"/>
        </geometry>
        <material name="${side}_sandia_hand_skin">
          <color rgba="0.835 0.655 0.345 1.0"/>
        </material>
      </visual>
      <!-   end visual mesh of f2 -->
  </link>
  <joint name="right_sandia_hand_joint" type="fixed">
    <parent link="r_hand"/>
    <child link="right_palm"/>
    <origin rpy="-1.57079 0 -1.57079" xyz="0 -0.1 0"/>
  </joint>
  <link name="right_f0_base">
    <origin rpy="0 0 0" xyz="0 0 0"/>
    <inertial>
      <!-- total mass is 2.303 kg, palm is about 1.303 kg, distribute the rest into _base -->
      <mass value="0.250"/>
      <!-- (2.303 - 1.303) / 4 -->
      <origin xyz="0 0 0"/>
      <!-- model as sphere with radius of 1cm -->
      <inertia ixx="0.00001" ixy="0" ixz="0" iyy="0.00001" iyz="0" izz="0.00001"/>
    </inertial>
  </link>
  <link name="right_f0_fixed_accel">
    <origin rpy="0 0 0" xyz="0 0 0"/>
    <inertial>
      <mass value="0.01"/>
      <origin xyz="0 0 0"/>
      <inertia ixx="0.000001" ixy="0" ixz="0" iyy="0.000001" iyz="0" izz="0.000001"/>
    </inertial>
  </link>
  <link name="right_f0_0">
    <origin rpy="0 0 0" xyz="0 0 0"/>
    <inertial>
      <mass value="0.106"/>
      <!-- F1 -->
      <origin xyz="0 0 0"/>
      <!-- solid cylinder -->
      <inertia ixx="0.000011925" ixy="0" ixz="0" iyy="0.00011505" iyz="0" izz="0.00011505"/>
    </inertial>
    <!-- begin simple shape approximation of f0 -->
    <collision group="default">
      <origin rpy="0 0 0" xyz="0 0 0.003"/>
      <geometry>
        <cylinder length="0.023" radius="0.015"/>
      </geometry>
    </collision>
    <collision group="other">
      <origin rpy="1.57079632679 0 0" xyz="0.011 0 0.003"/>
      <geometry>
        <cylinder length="0.023" radius="0.01"/>
      </geometry>
    </collision>
    <!--   end simple shape approximation of f0 -->
    <!-- begin visual shape approximation of f0 -->
    <visual>
      <origin rpy="0 0 0" xyz="0 0 0.003"/>
      <geometry>
        <cylinder length="0.023" radius="0.015"/>
      </geometry>
      <material name="right_sandia_hand_skin_suntan">
        <color rgba="0.7 0.4 0.2 1.0"/>
      </material>
    </visual>
    <visual>
      <origin rpy="1.57079632679 0 0" xyz="0.011 0 0.003"/>
      <geometry>
        <cylinder length="0.023" radius="0.01"/>
      </geometry>
      <material name="right_sandia_hand_skin_suntan">
        <color rgba="0.7 0.4 0.2 1.0"/>
      </material>
    </visual>
    <!--   end visual shape approximation of f0 -->
    <!-- begin collision mesh of f0 ->
      <collision group="default">
        <origin xyz="0 0 0" rpy="0 0 0"/>
        <geometry>
          <mesh filename="package://sandia_hand_description/meshes/f0.stl"/>
        </geometry>
      </collision>
      <!-   end collision mesh of f0 -->
    <!-- begin visual mesh of f0 ->
      <visual>
        <origin xyz="0 0 0" rpy="0 0 0"/>
        <geometry>
          <mesh filename="package://sandia_hand_description/meshes/f0.stl"/>
        </geometry>
        <material name="${side}_sandia_hand_skin_suntan">
          <color rgba="0.7 0.4 0.2 1.0"/>
        </material>
      </visual>
      <!-   end visual mesh of f0 -->
  </link>
  <link name="right_f0_1">
    <origin rpy="0 0 0" xyz="0 0 0"/>
    <inertial>
      <mass value="0.033"/>
      <!-- F2 -->
      <origin xyz="0 0 0"/>
      <!-- solid cylinder -->
      <inertia ixx="0.00000165" ixy="0" ixz="0" iyy="0.00001316975" iyz="0" izz="0.00001316975"/>
    </inertial>
    <!-- begin simple shape approximation of f1 -->
    <collision group="default">
      <origin rpy="0 1.57079632679 0" xyz="0.024 0 0"/>
      <geometry>
        <cylinder length="0.067" radius="0.01"/>
      </geometry>
    </collision>
    <!--   end simple shape approximation of f1 -->
    <!-- begin visual shape approximation of f1 -->
    <visual>
      <origin rpy="0 1.57079632679 0" xyz="0.024 0 0"/>
      <geometry>
        <cylinder length="0.067" radius="0.01"/>
      </geometry>
      <material name="right_sandia_hand_skin">
        <color rgba="0.835 0.655 0.345 1.0"/>
      </material>
    </visual>
    <!--   end visual shape approximation of f1 -->
    <!-- begin collision mesh of f1 ->
      <collision group="default">
        <origin xyz="0 0 0" rpy="0 0 0"/>
        <geometry>
          <mesh filename="package://sandia_hand_description/meshes/f1.stl"/>
        </geometry>
      </collision>
      <!-   end collision mesh of f1 -->
    <!-- begin visual mesh of f1 ->
      <visual>
        <origin xyz="0 0 0" rpy="0 0 0"/>
        <geometry>
          <mesh filename="package://sandia_hand_description/meshes/f1.stl"/>
        </geometry>
        <material name="${side}_sandia_hand_skin">
          <color rgba="0.835 0.655 0.345 1.0"/>
        </material>
      </visual>
      <!-   end visual mesh of f1 -->
  </link>
  <link name="right_f0_1_accel">
    <origin rpy="0 0 0" xyz="0 0 0"/>
    <inertial>
      <mass value="0.01"/>
      <origin xyz="0 0 0"/>
      <inertia ixx="0.000001" ixy="0" ixz="0" iyy="0.000001" iyz="0" izz="0.000001"/>
    </inertial>
  </link>
  <link name="right_f0_2">
    <origin rpy="0 0 0" xyz="0 0 0"/>
    <inertial>
      <mass value="0.033"/>
      <!-- F3 -->
      <origin xyz="0 0 0"/>
      <!-- solid cylinder -->
      <inertia ixx="0.0000013365" ixy="0" ixz="0" iyy="0.000009603" iyz="0" izz="0.000009603"/>
    </inertial>
    <!-- begin simple shape approximation of f2 -->
    <collision group="default">
      <origin rpy="0 1.57079632679 0" xyz="0.024 0 0"/>
      <geometry>
        <cylinder length="0.057" radius="0.009"/>
      </geometry>
    </collision>
    <collision group="other">
      <origin rpy="0 0 0" xyz="0.052 0 0"/>
      <geometry>
        <sphere radius="0.009"/>
      </geometry>
    </collision>
    <!--   end simple shape approximation of f2 -->
    <!-- begin visual shape approximation of f2 -->
    <visual>
      <origin rpy="0 1.57079632679 0" xyz="0.024 0 0"/>
      <geometry>
        <cylinder length="0.057" radius="0.009"/>
      </geometry>
      <material name="right_sandia_hand_skin_suntan">
        <color rgba="0.8 0.6 0.3 1.0"/>
      </material>
    </visual>
    <visual>
      <origin rpy="0 0 0" xyz="0.052 0 0"/>
      <geometry>
        <sphere radius="0.009"/>
      </geometry>
      <material name="right_sandia_hand_skin_suntan">
        <color rgba="0.8 0.6 0.3 1.0"/>
      </material>
    </visual>
    <!-- begin collision mesh of f2    ->
      <collision group="default">
        <origin xyz="0 0 0" rpy="0 0 0"/>
        <geometry>
          <mesh filename="package://sandia_hand_description/meshes/f2.stl"/>
        </geometry>
      </collision>
      <!-   end collision mesh of f2 -->
    <!-- begin visual mesh of f2    ->
      <visual>
        <origin xyz="0 0 0" rpy="0 0 0"/>
        <geometry>
          <mesh filename="package://sandia_hand_description/meshes/f2.stl"/>
        </geometry>
        <material name="${side}_sandia_hand_skin_suntan">
          <color rgba="0.8 0.6 0.3 1.0"/>
        </material>
      </visual>
      <!-   end visual mesh of f2 -->
  </link>
  <link name="right_f0_2_accel">
    <origin rpy="0 0 0" xyz="0 0 0"/>
    <inertial>
      <mass value="0.01"/>
      <origin xyz="0 0 0"/>
      <inertia ixx="0.000001" ixy="0" ixz="0" iyy="0.000001" iyz="0" izz="0.000001"/>
    </inertial>
  </link>
  <joint name="right_f0_base" type="fixed">
    <parent link="right_palm"/>
    <child link="right_f0_base"/>
    <origin rpy="0 0 0.3" xyz="0.14 0.0 0"/>
  </joint>
  <joint name="right_f0_j0" type="revolute">
    <axis xyz="0 0 1"/>
    <parent link="right_f0_base"/>
    <child link="right_f0_0"/>
    <limit effort="11" lower="-1.57079632679" upper="1.57079632679" velocity="-1"/>
    <safety_controller k_position="1000.0" k_velocity="1000.0" soft_lower_limit="-11.57079" soft_upper_limit="11.57079"/>
    <dynamics damping="1.0"/>
    <origin rpy="0 0 0" xyz="0 0 0"/>
  </joint>
  <joint name="right_f0_j1" type="revolute">
    <axis xyz="0 0 1"/>
    <parent link="right_f0_0"/>
    <child link="right_f0_1"/>
    <limit effort="28" lower="-1.57079632679" upper="1.57079632679" velocity="-1"/>
    <safety_controller k_position="1000.0" k_velocity="1000.0" soft_lower_limit="-11.57079" soft_upper_limit="11.57079"/>
    <dynamics damping="1.0"/>
    <origin rpy="1.57079632679 0 0" xyz="0.028 0 0"/>
  </joint>
  <joint name="right_f0_j2" type="revolute">
    <axis xyz="0 0 1"/>
    <parent link="right_f0_1"/>
    <child link="right_f0_2"/>
    <origin rpy="0 0 0" xyz="0.05 0 0"/>
    <safety_controller k_position="1000.0" k_velocity="1000.0" soft_lower_limit="-11.57079" soft_upper_limit="11.57079"/>
    <dynamics damping="1.0"/>
    <limit effort="28" lower="-1.57079632679" upper="1.57079632679" velocity="-1"/>
  </joint>
  <joint name="right_f0_fixed_accel" type="fixed">
    <parent link="right_f0_base"/>
    <child link="right_f0_fixed_accel"/>
    <origin rpy="0 0 0" xyz="-0.05 0 0"/>
  </joint>
  <joint name="right_f0_1_accel" type="fixed">
    <parent link="right_f0_1"/>
    <child link="right_f0_1_accel"/>
    <origin rpy="-1.57079632679 0 0" xyz="0.03 0 0"/>
  </joint>
  <joint name="right_f0_2_accel" type="fixed">
    <parent link="right_f0_2"/>
    <child link="right_f0_2_accel"/>
    <origin rpy="-1.57079632679 0 0" xyz="0.04 0 0"/>
  </joint>
  <transmission name="right_f0_j0" type="pr2_mechanism_model/SimpleTransmission">
    <joint name="right_f0_j0"/>
    <actuator name="right_f0_j0_motor"/>
    <mechanicalReduction>1</mechanicalReduction>
  </transmission>
  <transmission name="right_f0_j1" type="pr2_mechanism_model/SimpleTransmission">
    <joint name="right_f0_j1"/>
    <actuator name="right_f0_j1_motor"/>
    <mechanicalReduction>1</mechanicalReduction>
  </transmission>
  <transmission name="right_f0_j2" type="pr2_mechanism_model/SimpleTransmission">
    <joint name="right_f0_j2"/>
    <actuator name="right_f0_j2_motor"/>
    <mechanicalReduction>1</mechanicalReduction>
  </transmission>
  <gazebo reference="right_f0_base">
    <mu1>0.9</mu1>
    <mu2>0.9</mu2>
    <kp>1000000.0</kp>
    <kd>1.0</kd>
    <maxVel>0.1</maxVel>
    <minDepth>0.001</minDepth>
    <material>Gazebo/FlatBlack</material>
  </gazebo>
  <gazebo reference="right_f0_0">
    <mu1>0.9</mu1>
    <mu2>0.9</mu2>
    <kp>1000000.0</kp>
    <kd>1.0</kd>
    <maxVel>0.1</maxVel>
    <minDepth>0.003</minDepth>
    <maxContacts>1</maxContacts>
    <material>Gazebo/FlatBlack</material>
  </gazebo>
  <gazebo reference="right_f0_1">
    <mu1>0.9</mu1>
    <mu2>0.9</mu2>
    <kp>1000000.0</kp>
    <kd>1.0</kd>
    <maxVel>0.1</maxVel>
    <minDepth>0.003</minDepth>
    <maxContacts>1</maxContacts>
    <material>Gazebo/FlatBlack</material>
  </gazebo>
  <gazebo reference="right_f0_2">
    <mu1>0.9</mu1>
    <mu2>0.9</mu2>
    <kp>1000000.0</kp>
    <kd>1.0</kd>
    <maxVel>0.1</maxVel>
    <minDepth>0.003</minDepth>
    <maxContacts>1</maxContacts>
    <material>Gazebo/FlatBlack</material>
  </gazebo>
  <gazebo reference="right_f0_j0">
    <cfmDamping>1</cfmDamping>
  </gazebo>
  <gazebo reference="right_f0_j1">
    <cfmDamping>1</cfmDamping>
  </gazebo>
  <gazebo reference="right_f0_j2">
    <cfmDamping>1</cfmDamping>
  </gazebo>
  <link name="right_f1_base">
    <origin rpy="0 0 0" xyz="0 0 0"/>
    <inertial>
      <!-- total mass is 2.303 kg, palm is about 1.303 kg, distribute the rest into _base -->
      <mass value="0.250"/>
      <!-- (2.303 - 1.303) / 4 -->
      <origin xyz="0 0 0"/>
      <!-- model as sphere with radius of 1cm -->
      <inertia ixx="0.00001" ixy="0" ixz="0" iyy="0.00001" iyz="0" izz="0.00001"/>
    </inertial>
  </link>
  <link name="right_f1_fixed_accel">
    <origin rpy="0 0 0" xyz="0 0 0"/>
    <inertial>
      <mass value="0.01"/>
      <origin xyz="0 0 0"/>
      <inertia ixx="0.000001" ixy="0" ixz="0" iyy="0.000001" iyz="0" izz="0.000001"/>
    </inertial>
  </link>
  <link name="right_f1_0">
    <origin rpy="0 0 0" xyz="0 0 0"/>
    <inertial>
      <mass value="0.106"/>
      <!-- F1 -->
      <origin xyz="0 0 0"/>
      <!-- solid cylinder -->
      <inertia ixx="0.000011925" ixy="0" ixz="0" iyy="0.00011505" iyz="0" izz="0.00011505"/>
    </inertial>
    <!-- begin simple shape approximation of f0 -->
    <collision group="default">
      <origin rpy="0 0 0" xyz="0 0 0.003"/>
      <geometry>
        <cylinder length="0.023" radius="0.015"/>
      </geometry>
    </collision>
    <collision group="other">
      <origin rpy="1.57079632679 0 0" xyz="0.011 0 0.003"/>
      <geometry>
        <cylinder length="0.023" radius="0.01"/>
      </geometry>
    </collision>
    <!--   end simple shape approximation of f0 -->
    <!-- begin visual shape approximation of f0 -->
    <visual>
      <origin rpy="0 0 0" xyz="0 0 0.003"/>
      <geometry>
        <cylinder length="0.023" radius="0.015"/>
      </geometry>
      <material name="right_sandia_hand_skin_suntan">
        <color rgba="0.7 0.4 0.2 1.0"/>
      </material>
    </visual>
    <visual>
      <origin rpy="1.57079632679 0 0" xyz="0.011 0 0.003"/>
      <geometry>
        <cylinder length="0.023" radius="0.01"/>
      </geometry>
      <material name="right_sandia_hand_skin_suntan">
        <color rgba="0.7 0.4 0.2 1.0"/>
      </material>
    </visual>
    <!--   end visual shape approximation of f0 -->
    <!-- begin collision mesh of f0 ->
      <collision group="default">
        <origin xyz="0 0 0" rpy="0 0 0"/>
        <geometry>
          <mesh filename="package://sandia_hand_description/meshes/f0.stl"/>
        </geometry>
      </collision>
      <!-   end collision mesh of f0 -->
    <!-- begin visual mesh of f0 ->
      <visual>
        <origin xyz="0 0 0" rpy="0 0 0"/>
        <geometry>
          <mesh filename="package://sandia_hand_description/meshes/f0.stl"/>
        </geometry>
        <material name="${side}_sandia_hand_skin_suntan">
          <color rgba="0.7 0.4 0.2 1.0"/>
        </material>
      </visual>
      <!-   end visual mesh of f0 -->
  </link>
  <link name="right_f1_1">
    <origin rpy="0 0 0" xyz="0 0 0"/>
    <inertial>
      <mass value="0.033"/>
      <!-- F2 -->
      <origin xyz="0 0 0"/>
      <!-- solid cylinder -->
      <inertia ixx="0.00000165" ixy="0" ixz="0" iyy="0.00001316975" iyz="0" izz="0.00001316975"/>
    </inertial>
    <!-- begin simple shape approximation of f1 -->
    <collision group="default">
      <origin rpy="0 1.57079632679 0" xyz="0.024 0 0"/>
      <geometry>
        <cylinder length="0.067" radius="0.01"/>
      </geometry>
    </collision>
    <!--   end simple shape approximation of f1 -->
    <!-- begin visual shape approximation of f1 -->
    <visual>
      <origin rpy="0 1.57079632679 0" xyz="0.024 0 0"/>
      <geometry>
        <cylinder length="0.067" radius="0.01"/>
      </geometry>
      <material name="right_sandia_hand_skin">
        <color rgba="0.835 0.655 0.345 1.0"/>
      </material>
    </visual>
    <!--   end visual shape approximation of f1 -->
    <!-- begin collision mesh of f1 ->
      <collision group="default">
        <origin xyz="0 0 0" rpy="0 0 0"/>
        <geometry>
          <mesh filename="package://sandia_hand_description/meshes/f1.stl"/>
        </geometry>
      </collision>
      <!-   end collision mesh of f1 -->
    <!-- begin visual mesh of f1 ->
      <visual>
        <origin xyz="0 0 0" rpy="0 0 0"/>
        <geometry>
          <mesh filename="package://sandia_hand_description/meshes/f1.stl"/>
        </geometry>
        <material name="${side}_sandia_hand_skin">
          <color rgba="0.835 0.655 0.345 1.0"/>
        </material>
      </visual>
      <!-   end visual mesh of f1 -->
  </link>
  <link name="right_f1_1_accel">
    <origin rpy="0 0 0" xyz="0 0 0"/>
    <inertial>
      <mass value="0.01"/>
      <origin xyz="0 0 0"/>
      <inertia ixx="0.000001" ixy="0" ixz="0" iyy="0.000001" iyz="0" izz="0.000001"/>
    </inertial>
  </link>
  <link name="right_f1_2">
    <origin rpy="0 0 0" xyz="0 0 0"/>
    <inertial>
      <mass value="0.033"/>
      <!-- F3 -->
      <origin xyz="0 0 0"/>
      <!-- solid cylinder -->
      <inertia ixx="0.0000013365" ixy="0" ixz="0" iyy="0.000009603" iyz="0" izz="0.000009603"/>
    </inertial>
    <!-- begin simple shape approximation of f2 -->
    <collision group="default">
      <origin rpy="0 1.57079632679 0" xyz="0.024 0 0"/>
      <geometry>
        <cylinder length="0.057" radius="0.009"/>
      </geometry>
    </collision>
    <collision group="other">
      <origin rpy="0 0 0" xyz="0.052 0 0"/>
      <geometry>
        <sphere radius="0.009"/>
      </geometry>
    </collision>
    <!--   end simple shape approximation of f2 -->
    <!-- begin visual shape approximation of f2 -->
    <visual>
      <origin rpy="0 1.57079632679 0" xyz="0.024 0 0"/>
      <geometry>
        <cylinder length="0.057" radius="0.009"/>
      </geometry>
      <material name="right_sandia_hand_skin_suntan">
        <color rgba="0.8 0.6 0.3 1.0"/>
      </material>
    </visual>
    <visual>
      <origin rpy="0 0 0" xyz="0.052 0 0"/>
      <geometry>
        <sphere radius="0.009"/>
      </geometry>
      <material name="right_sandia_hand_skin_suntan">
        <color rgba="0.8 0.6 0.3 1.0"/>
      </material>
    </visual>
    <!-- begin collision mesh of f2    ->
      <collision group="default">
        <origin xyz="0 0 0" rpy="0 0 0"/>
        <geometry>
          <mesh filename="package://sandia_hand_description/meshes/f2.stl"/>
        </geometry>
      </collision>
      <!-   end collision mesh of f2 -->
    <!-- begin visual mesh of f2    ->
      <visual>
        <origin xyz="0 0 0" rpy="0 0 0"/>
        <geometry>
          <mesh filename="package://sandia_hand_description/meshes/f2.stl"/>
        </geometry>
        <material name="${side}_sandia_hand_skin_suntan">
          <color rgba="0.8 0.6 0.3 1.0"/>
        </material>
      </visual>
      <!-   end visual mesh of f2 -->
  </link>
  <link name="right_f1_2_accel">
    <origin rpy="0 0 0" xyz="0 0 0"/>
    <inertial>
      <mass value="0.01"/>
      <origin xyz="0 0 0"/>
      <inertia ixx="0.000001" ixy="0" ixz="0" iyy="0.000001" iyz="0" izz="0.000001"/>
    </inertial>
  </link>
  <joint name="right_f1_base" type="fixed">
    <parent link="right_palm"/>
    <child link="right_f1_base"/>
    <origin rpy="0 0 0.3" xyz="0.115 0.03122 0"/>
  </joint>
  <joint name="right_f1_j0" type="revolute">
    <axis xyz="0 0 1"/>
    <parent link="right_f1_base"/>
    <child link="right_f1_0"/>
    <limit effort="11" lower="-1.57079632679" upper="1.57079632679" velocity="-1"/>
    <safety_controller k_position="1000.0" k_velocity="1000.0" soft_lower_limit="-11.57079" soft_upper_limit="11.57079"/>
    <dynamics damping="1.0"/>
    <origin rpy="0 0 0" xyz="0 0 0"/>
  </joint>
  <joint name="right_f1_j1" type="revolute">
    <axis xyz="0 0 1"/>
    <parent link="right_f1_0"/>
    <child link="right_f1_1"/>
    <limit effort="28" lower="-1.57079632679" upper="1.57079632679" velocity="-1"/>
    <safety_controller k_position="1000.0" k_velocity="1000.0" soft_lower_limit="-11.57079" soft_upper_limit="11.57079"/>
    <dynamics damping="1.0"/>
    <origin rpy="1.57079632679 0 0" xyz="0.028 0 0"/>
  </joint>
  <joint name="right_f1_j2" type="revolute">
    <axis xyz="0 0 1"/>
    <parent link="right_f1_1"/>
    <child link="right_f1_2"/>
    <origin rpy="0 0 0" xyz="0.05 0 0"/>
    <safety_controller k_position="1000.0" k_velocity="1000.0" soft_lower_limit="-11.57079" soft_upper_limit="11.57079"/>
    <dynamics damping="1.0"/>
    <limit effort="28" lower="-1.57079632679" upper="1.57079632679" velocity="-1"/>
  </joint>
  <joint name="right_f1_fixed_accel" type="fixed">
    <parent link="right_f1_base"/>
    <child link="right_f1_fixed_accel"/>
    <origin rpy="0 0 0" xyz="-0.05 0 0"/>
  </joint>
  <joint name="right_f1_1_accel" type="fixed">
    <parent link="right_f1_1"/>
    <child link="right_f1_1_accel"/>
    <origin rpy="-1.57079632679 0 0" xyz="0.03 0 0"/>
  </joint>
  <joint name="right_f1_2_accel" type="fixed">
    <parent link="right_f1_2"/>
    <child link="right_f1_2_accel"/>
    <origin rpy="-1.57079632679 0 0" xyz="0.04 0 0"/>
  </joint>
  <transmission name="right_f1_j0" type="pr2_mechanism_model/SimpleTransmission">
    <joint name="right_f1_j0"/>
    <actuator name="right_f1_j0_motor"/>
    <mechanicalReduction>1</mechanicalReduction>
  </transmission>
  <transmission name="right_f1_j1" type="pr2_mechanism_model/SimpleTransmission">
    <joint name="right_f1_j1"/>
    <actuator name="right_f1_j1_motor"/>
    <mechanicalReduction>1</mechanicalReduction>
  </transmission>
  <transmission name="right_f1_j2" type="pr2_mechanism_model/SimpleTransmission">
    <joint name="right_f1_j2"/>
    <actuator name="right_f1_j2_motor"/>
    <mechanicalReduction>1</mechanicalReduction>
  </transmission>
  <gazebo reference="right_f1_base">
    <mu1>0.9</mu1>
    <mu2>0.9</mu2>
    <kp>1000000.0</kp>
    <kd>1.0</kd>
    <maxVel>0.1</maxVel>
    <minDepth>0.001</minDepth>
    <material>Gazebo/FlatBlack</material>
  </gazebo>
  <gazebo reference="right_f1_0">
    <mu1>0.9</mu1>
    <mu2>0.9</mu2>
    <kp>1000000.0</kp>
    <kd>1.0</kd>
    <maxVel>0.1</maxVel>
    <minDepth>0.003</minDepth>
    <maxContacts>1</maxContacts>
    <material>Gazebo/FlatBlack</material>
  </gazebo>
  <gazebo reference="right_f1_1">
    <mu1>0.9</mu1>
    <mu2>0.9</mu2>
    <kp>1000000.0</kp>
    <kd>1.0</kd>
    <maxVel>0.1</maxVel>
    <minDepth>0.003</minDepth>
    <maxContacts>1</maxContacts>
    <material>Gazebo/FlatBlack</material>
  </gazebo>
  <gazebo reference="right_f1_2">
    <mu1>0.9</mu1>
    <mu2>0.9</mu2>
    <kp>1000000.0</kp>
    <kd>1.0</kd>
    <maxVel>0.1</maxVel>
    <minDepth>0.003</minDepth>
    <maxContacts>1</maxContacts>
    <material>Gazebo/FlatBlack</material>
  </gazebo>
  <gazebo reference="right_f1_j0">
    <cfmDamping>1</cfmDamping>
  </gazebo>
  <gazebo reference="right_f1_j1">
    <cfmDamping>1</cfmDamping>
  </gazebo>
  <gazebo reference="right_f1_j2">
    <cfmDamping>1</cfmDamping>
  </gazebo>
  <link name="right_f2_base">
    <origin rpy="0 0 0" xyz="0 0 0"/>
    <inertial>
      <!-- total mass is 2.303 kg, palm is about 1.303 kg, distribute the rest into _base -->
      <mass value="0.250"/>
      <!-- (2.303 - 1.303) / 4 -->
      <origin xyz="0 0 0"/>
      <!-- model as sphere with radius of 1cm -->
      <inertia ixx="0.00001" ixy="0" ixz="0" iyy="0.00001" iyz="0" izz="0.00001"/>
    </inertial>
  </link>
  <link name="right_f2_fixed_accel">
    <origin rpy="0 0 0" xyz="0 0 0"/>
    <inertial>
      <mass value="0.01"/>
      <origin xyz="0 0 0"/>
      <inertia ixx="0.000001" ixy="0" ixz="0" iyy="0.000001" iyz="0" izz="0.000001"/>
    </inertial>
  </link>
  <link name="right_f2_0">
    <origin rpy="0 0 0" xyz="0 0 0"/>
    <inertial>
      <mass value="0.106"/>
      <!-- F1 -->
      <origin xyz="0 0 0"/>
      <!-- solid cylinder -->
      <inertia ixx="0.000011925" ixy="0" ixz="0" iyy="0.00011505" iyz="0" izz="0.00011505"/>
    </inertial>
    <!-- begin simple shape approximation of f0 -->
    <collision group="default">
      <origin rpy="0 0 0" xyz="0 0 0.003"/>
      <geometry>
        <cylinder length="0.023" radius="0.015"/>
      </geometry>
    </collision>
    <collision group="other">
      <origin rpy="1.57079632679 0 0" xyz="0.011 0 0.003"/>
      <geometry>
        <cylinder length="0.023" radius="0.01"/>
      </geometry>
    </collision>
    <!--   end simple shape approximation of f0 -->
    <!-- begin visual shape approximation of f0 -->
    <visual>
      <origin rpy="0 0 0" xyz="0 0 0.003"/>
      <geometry>
        <cylinder length="0.023" radius="0.015"/>
      </geometry>
      <material name="right_sandia_hand_skin_suntan">
        <color rgba="0.7 0.4 0.2 1.0"/>
      </material>
    </visual>
    <visual>
      <origin rpy="1.57079632679 0 0" xyz="0.011 0 0.003"/>
      <geometry>
        <cylinder length="0.023" radius="0.01"/>
      </geometry>
      <material name="right_sandia_hand_skin_suntan">
        <color rgba="0.7 0.4 0.2 1.0"/>
      </material>
    </visual>
    <!--   end visual shape approximation of f0 -->
    <!-- begin collision mesh of f0 ->
      <collision group="default">
        <origin xyz="0 0 0" rpy="0 0 0"/>
        <geometry>
          <mesh filename="package://sandia_hand_description/meshes/f0.stl"/>
        </geometry>
      </collision>
      <!-   end collision mesh of f0 -->
    <!-- begin visual mesh of f0 ->
      <visual>
        <origin xyz="0 0 0" rpy="0 0 0"/>
        <geometry>
          <mesh filename="package://sandia_hand_description/meshes/f0.stl"/>
        </geometry>
        <material name="${side}_sandia_hand_skin_suntan">
          <color rgba="0.7 0.4 0.2 1.0"/>
        </material>
      </visual>
      <!-   end visual mesh of f0 -->
  </link>
  <link name="right_f2_1">
    <origin rpy="0 0 0" xyz="0 0 0"/>
    <inertial>
      <mass value="0.033"/>
      <!-- F2 -->
      <origin xyz="0 0 0"/>
      <!-- solid cylinder -->
      <inertia ixx="0.00000165" ixy="0" ixz="0" iyy="0.00001316975" iyz="0" izz="0.00001316975"/>
    </inertial>
    <!-- begin simple shape approximation of f1 -->
    <collision group="default">
      <origin rpy="0 1.57079632679 0" xyz="0.024 0 0"/>
      <geometry>
        <cylinder length="0.067" radius="0.01"/>
      </geometry>
    </collision>
    <!--   end simple shape approximation of f1 -->
    <!-- begin visual shape approximation of f1 -->
    <visual>
      <origin rpy="0 1.57079632679 0" xyz="0.024 0 0"/>
      <geometry>
        <cylinder length="0.067" radius="0.01"/>
      </geometry>
      <material name="right_sandia_hand_skin">
        <color rgba="0.835 0.655 0.345 1.0"/>
      </material>
    </visual>
    <!--   end visual shape approximation of f1 -->
    <!-- begin collision mesh of f1 ->
      <collision group="default">
        <origin xyz="0 0 0" rpy="0 0 0"/>
        <geometry>
          <mesh filename="package://sandia_hand_description/meshes/f1.stl"/>
        </geometry>
      </collision>
      <!-   end collision mesh of f1 -->
    <!-- begin visual mesh of f1 ->
      <visual>
        <origin xyz="0 0 0" rpy="0 0 0"/>
        <geometry>
          <mesh filename="package://sandia_hand_description/meshes/f1.stl"/>
        </geometry>
        <material name="${side}_sandia_hand_skin">
          <color rgba="0.835 0.655 0.345 1.0"/>
        </material>
      </visual>
      <!-   end visual mesh of f1 -->
  </link>
  <link name="right_f2_1_accel">
    <origin rpy="0 0 0" xyz="0 0 0"/>
    <inertial>
      <mass value="0.01"/>
      <origin xyz="0 0 0"/>
      <inertia ixx="0.000001" ixy="0" ixz="0" iyy="0.000001" iyz="0" izz="0.000001"/>
    </inertial>
  </link>
  <link name="right_f2_2">
    <origin rpy="0 0 0" xyz="0 0 0"/>
    <inertial>
      <mass value="0.033"/>
      <!-- F3 -->
      <origin xyz="0 0 0"/>
      <!-- solid cylinder -->
      <inertia ixx="0.0000013365" ixy="0" ixz="0" iyy="0.000009603" iyz="0" izz="0.000009603"/>
    </inertial>
    <!-- begin simple shape approximation of f2 -->
    <collision group="default">
      <origin rpy="0 1.57079632679 0" xyz="0.024 0 0"/>
      <geometry>
        <cylinder length="0.057" radius="0.009"/>
      </geometry>
    </collision>
    <collision group="other">
      <origin rpy="0 0 0" xyz="0.052 0 0"/>
      <geometry>
        <sphere radius="0.009"/>
      </geometry>
    </collision>
    <!--   end simple shape approximation of f2 -->
    <!-- begin visual shape approximation of f2 -->
    <visual>
      <origin rpy="0 1.57079632679 0" xyz="0.024 0 0"/>
      <geometry>
        <cylinder length="0.057" radius="0.009"/>
      </geometry>
      <material name="right_sandia_hand_skin_suntan">
        <color rgba="0.8 0.6 0.3 1.0"/>
      </material>
    </visual>
    <visual>
      <origin rpy="0 0 0" xyz="0.052 0 0"/>
      <geometry>
        <sphere radius="0.009"/>
      </geometry>
      <material name="right_sandia_hand_skin_suntan">
        <color rgba="0.8 0.6 0.3 1.0"/>
      </material>
    </visual>
    <!-- begin collision mesh of f2    ->
      <collision group="default">
        <origin xyz="0 0 0" rpy="0 0 0"/>
        <geometry>
          <mesh filename="package://sandia_hand_description/meshes/f2.stl"/>
        </geometry>
      </collision>
      <!-   end collision mesh of f2 -->
    <!-- begin visual mesh of f2    ->
      <visual>
        <origin xyz="0 0 0" rpy="0 0 0"/>
        <geometry>
          <mesh filename="package://sandia_hand_description/meshes/f2.stl"/>
        </geometry>
        <material name="${side}_sandia_hand_skin_suntan">
          <color rgba="0.8 0.6 0.3 1.0"/>
        </material>
      </visual>
      <!-   end visual mesh of f2 -->
  </link>
  <link name="right_f2_2_accel">
    <origin rpy="0 0 0" xyz="0 0 0"/>
    <inertial>
      <mass value="0.01"/>
      <origin xyz="0 0 0"/>
      <inertia ixx="0.000001" ixy="0" ixz="0" iyy="0.000001" iyz="0" izz="0.000001"/>
    </inertial>
  </link>
  <joint name="right_f2_base" type="fixed">
    <parent link="right_palm"/>
    <child link="right_f2_base"/>
    <origin rpy="0 0 0.3" xyz="0.09 0.06245 0"/>
  </joint>
  <joint name="right_f2_j0" type="revolute">
    <axis xyz="0 0 1"/>
    <parent link="right_f2_base"/>
    <child link="right_f2_0"/>
    <limit effort="11" lower="-1.57079632679" upper="1.57079632679" velocity="-1"/>
    <safety_controller k_position="1000.0" k_velocity="1000.0" soft_lower_limit="-11.57079" soft_upper_limit="11.57079"/>
    <dynamics damping="1.0"/>
    <origin rpy="0 0 0" xyz="0 0 0"/>
  </joint>
  <joint name="right_f2_j1" type="revolute">
    <axis xyz="0 0 1"/>
    <parent link="right_f2_0"/>
    <child link="right_f2_1"/>
    <limit effort="28" lower="-1.57079632679" upper="1.57079632679" velocity="-1"/>
    <safety_controller k_position="1000.0" k_velocity="1000.0" soft_lower_limit="-11.57079" soft_upper_limit="11.57079"/>
    <dynamics damping="1.0"/>
    <origin rpy="1.57079632679 0 0" xyz="0.028 0 0"/>
  </joint>
  <joint name="right_f2_j2" type="revolute">
    <axis xyz="0 0 1"/>
    <parent link="right_f2_1"/>
    <child link="right_f2_2"/>
    <origin rpy="0 0 0" xyz="0.05 0 0"/>
    <safety_controller k_position="1000.0" k_velocity="1000.0" soft_lower_limit="-11.57079" soft_upper_limit="11.57079"/>
    <dynamics damping="1.0"/>
    <limit effort="28" lower="-1.57079632679" upper="1.57079632679" velocity="-1"/>
  </joint>
  <joint name="right_f2_fixed_accel" type="fixed">
    <parent link="right_f2_base"/>
    <child link="right_f2_fixed_accel"/>
    <origin rpy="0 0 0" xyz="-0.05 0 0"/>
  </joint>
  <joint name="right_f2_1_accel" type="fixed">
    <parent link="right_f2_1"/>
    <child link="right_f2_1_accel"/>
    <origin rpy="-1.57079632679 0 0" xyz="0.03 0 0"/>
  </joint>
  <joint name="right_f2_2_accel" type="fixed">
    <parent link="right_f2_2"/>
    <child link="right_f2_2_accel"/>
    <origin rpy="-1.57079632679 0 0" xyz="0.04 0 0"/>
  </joint>
  <transmission name="right_f2_j0" type="pr2_mechanism_model/SimpleTransmission">
    <joint name="right_f2_j0"/>
    <actuator name="right_f2_j0_motor"/>
    <mechanicalReduction>1</mechanicalReduction>
  </transmission>
  <transmission name="right_f2_j1" type="pr2_mechanism_model/SimpleTransmission">
    <joint name="right_f2_j1"/>
    <actuator name="right_f2_j1_motor"/>
    <mechanicalReduction>1</mechanicalReduction>
  </transmission>
  <transmission name="right_f2_j2" type="pr2_mechanism_model/SimpleTransmission">
    <joint name="right_f2_j2"/>
    <actuator name="right_f2_j2_motor"/>
    <mechanicalReduction>1</mechanicalReduction>
  </transmission>
  <gazebo reference="right_f2_base">
    <mu1>0.9</mu1>
    <mu2>0.9</mu2>
    <kp>1000000.0</kp>
    <kd>1.0</kd>
    <maxVel>0.1</maxVel>
    <minDepth>0.001</minDepth>
    <material>Gazebo/FlatBlack</material>
  </gazebo>
  <gazebo reference="right_f2_0">
    <mu1>0.9</mu1>
    <mu2>0.9</mu2>
    <kp>1000000.0</kp>
    <kd>1.0</kd>
    <maxVel>0.1</maxVel>
    <minDepth>0.003</minDepth>
    <maxContacts>1</maxContacts>
    <material>Gazebo/FlatBlack</material>
  </gazebo>
  <gazebo reference="right_f2_1">
    <mu1>0.9</mu1>
    <mu2>0.9</mu2>
    <kp>1000000.0</kp>
    <kd>1.0</kd>
    <maxVel>0.1</maxVel>
    <minDepth>0.003</minDepth>
    <maxContacts>1</maxContacts>
    <material>Gazebo/FlatBlack</material>
  </gazebo>
  <gazebo reference="right_f2_2">
    <mu1>0.9</mu1>
    <mu2>0.9</mu2>
    <kp>1000000.0</kp>
    <kd>1.0</kd>
    <maxVel>0.1</maxVel>
    <minDepth>0.003</minDepth>
    <maxContacts>1</maxContacts>
    <material>Gazebo/FlatBlack</material>
  </gazebo>
  <gazebo reference="right_f2_j0">
    <cfmDamping>1</cfmDamping>
  </gazebo>
  <gazebo reference="right_f2_j1">
    <cfmDamping>1</cfmDamping>
  </gazebo>
  <gazebo reference="right_f2_j2">
    <cfmDamping>1</cfmDamping>
  </gazebo>
  <link name="right_f3_base">
    <origin rpy="0 0 0" xyz="0 0 0"/>
    <inertial>
      <!-- total mass is 2.303 kg, palm is about 1.303 kg, distribute the rest into _base -->
      <mass value="0.250"/>
      <!-- (2.303 - 1.303) / 4 -->
      <origin xyz="0 0 0"/>
      <!-- model as sphere with radius of 1cm -->
      <inertia ixx="0.00001" ixy="0" ixz="0" iyy="0.00001" iyz="0" izz="0.00001"/>
    </inertial>
  </link>
  <link name="right_f3_fixed_accel">
    <origin rpy="0 0 0" xyz="0 0 0"/>
    <inertial>
      <mass value="0.01"/>
      <origin xyz="0 0 0"/>
      <inertia ixx="0.000001" ixy="0" ixz="0" iyy="0.000001" iyz="0" izz="0.000001"/>
    </inertial>
  </link>
  <link name="right_f3_0">
    <origin rpy="0 0 0" xyz="0 0 0"/>
    <inertial>
      <mass value="0.106"/>
      <!-- F1 -->
      <origin xyz="0 0 0"/>
      <!-- solid cylinder -->
      <inertia ixx="0.000011925" ixy="0" ixz="0" iyy="0.00011505" iyz="0" izz="0.00011505"/>
    </inertial>
    <!-- begin simple shape approximation of f0 -->
    <collision group="default">
      <origin rpy="0 0 0" xyz="0 0 0.003"/>
      <geometry>
        <cylinder length="0.023" radius="0.015"/>
      </geometry>
    </collision>
    <collision group="other">
      <origin rpy="1.57079632679 0 0" xyz="0.011 0 0.003"/>
      <geometry>
        <cylinder length="0.023" radius="0.01"/>
      </geometry>
    </collision>
    <!--   end simple shape approximation of f0 -->
    <!-- begin visual shape approximation of f0 -->
    <visual>
      <origin rpy="0 0 0" xyz="0 0 0.003"/>
      <geometry>
        <cylinder length="0.023" radius="0.015"/>
      </geometry>
      <material name="right_sandia_hand_skin_suntan">
        <color rgba="0.7 0.4 0.2 1.0"/>
      </material>
    </visual>
    <visual>
      <origin rpy="1.57079632679 0 0" xyz="0.011 0 0.003"/>
      <geometry>
        <cylinder length="0.023" radius="0.01"/>
      </geometry>
      <material name="right_sandia_hand_skin_suntan">
        <color rgba="0.7 0.4 0.2 1.0"/>
      </material>
    </visual>
    <!--   end visual shape approximation of f0 -->
    <!-- begin collision mesh of f0 ->
      <collision group="default">
        <origin xyz="0 0 0" rpy="0 0 0"/>
        <geometry>
          <mesh filename="package://sandia_hand_description/meshes/f0.stl"/>
        </geometry>
      </collision>
      <!-   end collision mesh of f0 -->
    <!-- begin visual mesh of f0 ->
      <visual>
        <origin xyz="0 0 0" rpy="0 0 0"/>
        <geometry>
          <mesh filename="package://sandia_hand_description/meshes/f0.stl"/>
        </geometry>
        <material name="${side}_sandia_hand_skin_suntan">
          <color rgba="0.7 0.4 0.2 1.0"/>
        </material>
      </visual>
      <!-   end visual mesh of f0 -->
  </link>
  <link name="right_f3_1">
    <origin rpy="0 0 0" xyz="0 0 0"/>
    <inertial>
      <mass value="0.033"/>
      <!-- F2 -->
      <origin xyz="0 0 0"/>
      <!-- solid cylinder -->
      <inertia ixx="0.00000165" ixy="0" ixz="0" iyy="0.00001316975" iyz="0" izz="0.00001316975"/>
    </inertial>
    <!-- begin simple shape approximation of f1 -->
    <collision group="default">
      <origin rpy="0 1.57079632679 0" xyz="0.024 0 0"/>
      <geometry>
        <cylinder length="0.067" radius="0.01"/>
      </geometry>
    </collision>
    <!--   end simple shape approximation of f1 -->
    <!-- begin visual shape approximation of f1 -->
    <visual>
      <origin rpy="0 1.57079632679 0" xyz="0.024 0 0"/>
      <geometry>
        <cylinder length="0.067" radius="0.01"/>
      </geometry>
      <material name="right_sandia_hand_skin">
        <color rgba="0.835 0.655 0.345 1.0"/>
      </material>
    </visual>
    <!--   end visual shape approximation of f1 -->
    <!-- begin collision mesh of f1 ->
      <collision group="default">
        <origin xyz="0 0 0" rpy="0 0 0"/>
        <geometry>
          <mesh filename="package://sandia_hand_description/meshes/f1.stl"/>
        </geometry>
      </collision>
      <!-   end collision mesh of f1 -->
    <!-- begin visual mesh of f1 ->
      <visual>
        <origin xyz="0 0 0" rpy="0 0 0"/>
        <geometry>
          <mesh filename="package://sandia_hand_description/meshes/f1.stl"/>
        </geometry>
        <material name="${side}_sandia_hand_skin">
          <color rgba="0.835 0.655 0.345 1.0"/>
        </material>
      </visual>
      <!-   end visual mesh of f1 -->
  </link>
  <link name="right_f3_1_accel">
    <origin rpy="0 0 0" xyz="0 0 0"/>
    <inertial>
      <mass value="0.01"/>
      <origin xyz="0 0 0"/>
      <inertia ixx="0.000001" ixy="0" ixz="0" iyy="0.000001" iyz="0" izz="0.000001"/>
    </inertial>
  </link>
  <link name="right_f3_2">
    <origin rpy="0 0 0" xyz="0 0 0"/>
    <inertial>
      <mass value="0.033"/>
      <!-- F3 -->
      <origin xyz="0 0 0"/>
      <!-- solid cylinder -->
      <inertia ixx="0.0000013365" ixy="0" ixz="0" iyy="0.000009603" iyz="0" izz="0.000009603"/>
    </inertial>
    <!-- begin simple shape approximation of f2 -->
    <collision group="default">
      <origin rpy="0 1.57079632679 0" xyz="0.024 0 0"/>
      <geometry>
        <cylinder length="0.057" radius="0.009"/>
      </geometry>
    </collision>
    <collision group="other">
      <origin rpy="0 0 0" xyz="0.052 0 0"/>
      <geometry>
        <sphere radius="0.009"/>
      </geometry>
    </collision>
    <!--   end simple shape approximation of f2 -->
    <!-- begin visual shape approximation of f2 -->
    <visual>
      <origin rpy="0 1.57079632679 0" xyz="0.024 0 0"/>
      <geometry>
        <cylinder length="0.057" radius="0.009"/>
      </geometry>
      <material name="right_sandia_hand_skin_suntan">
        <color rgba="0.8 0.6 0.3 1.0"/>
      </material>
    </visual>
    <visual>
      <origin rpy="0 0 0" xyz="0.052 0 0"/>
      <geometry>
        <sphere radius="0.009"/>
      </geometry>
      <material name="right_sandia_hand_skin_suntan">
        <color rgba="0.8 0.6 0.3 1.0"/>
      </material>
    </visual>
    <!-- begin collision mesh of f2    ->
      <collision group="default">
        <origin xyz="0 0 0" rpy="0 0 0"/>
        <geometry>
          <mesh filename="package://sandia_hand_description/meshes/f2.stl"/>
        </geometry>
      </collision>
      <!-   end collision mesh of f2 -->
    <!-- begin visual mesh of f2    ->
      <visual>
        <origin xyz="0 0 0" rpy="0 0 0"/>
        <geometry>
          <mesh filename="package://sandia_hand_description/meshes/f2.stl"/>
        </geometry>
        <material name="${side}_sandia_hand_skin_suntan">
          <color rgba="0.8 0.6 0.3 1.0"/>
        </material>
      </visual>
      <!-   end visual mesh of f2 -->
  </link>
  <link name="right_f3_2_accel">
    <origin rpy="0 0 0" xyz="0 0 0"/>
    <inertial>
      <mass value="0.01"/>
      <origin xyz="0 0 0"/>
      <inertia ixx="0.000001" ixy="0" ixz="0" iyy="0.000001" iyz="0" izz="0.000001"/>
    </inertial>
  </link>
  <joint name="right_f3_base" type="fixed">
    <parent link="right_palm"/>
    <child link="right_f3_base"/>
    <origin rpy="0 -1.57079632679 -2.3562" xyz="0.03995 -0.04383 0.014"/>
  </joint>
  <joint name="right_f3_j0" type="revolute">
    <axis xyz="0 0 1"/>
    <parent link="right_f3_base"/>
    <child link="right_f3_0"/>
    <limit effort="11" lower="-1.57079632679" upper="1.57079632679" velocity="-1"/>
    <safety_controller k_position="1000.0" k_velocity="1000.0" soft_lower_limit="-11.57079" soft_upper_limit="11.57079"/>
    <dynamics damping="1.0"/>
    <origin rpy="0 0 0" xyz="0 0 0"/>
  </joint>
  <joint name="right_f3_j1" type="revolute">
    <axis xyz="0 0 1"/>
    <parent link="right_f3_0"/>
    <child link="right_f3_1"/>
    <limit effort="28" lower="-1.57079632679" upper="1.57079632679" velocity="-1"/>
    <safety_controller k_position="1000.0" k_velocity="1000.0" soft_lower_limit="-11.57079" soft_upper_limit="11.57079"/>
    <dynamics damping="1.0"/>
    <origin rpy="1.57079632679 0 0" xyz="0.028 0 0"/>
  </joint>
  <joint name="right_f3_j2" type="revolute">
    <axis xyz="0 0 1"/>
    <parent link="right_f3_1"/>
    <child link="right_f3_2"/>
    <origin rpy="0 0 0" xyz="0.05 0 0"/>
    <safety_controller k_position="1000.0" k_velocity="1000.0" soft_lower_limit="-11.57079" soft_upper_limit="11.57079"/>
    <dynamics damping="1.0"/>
    <limit effort="28" lower="-1.57079632679" upper="1.57079632679" velocity="-1"/>
  </joint>
  <joint name="right_f3_fixed_accel" type="fixed">
    <parent link="right_f3_base"/>
    <child link="right_f3_fixed_accel"/>
    <origin rpy="0 0 0" xyz="-0.05 0 0"/>
  </joint>
  <joint name="right_f3_1_accel" type="fixed">
    <parent link="right_f3_1"/>
    <child link="right_f3_1_accel"/>
    <origin rpy="-1.57079632679 0 0" xyz="0.03 0 0"/>
  </joint>
  <joint name="right_f3_2_accel" type="fixed">
    <parent link="right_f3_2"/>
    <child link="right_f3_2_accel"/>
    <origin rpy="-1.57079632679 0 0" xyz="0.04 0 0"/>
  </joint>
  <transmission name="right_f3_j0" type="pr2_mechanism_model/SimpleTransmission">
    <joint name="right_f3_j0"/>
    <actuator name="right_f3_j0_motor"/>
    <mechanicalReduction>1</mechanicalReduction>
  </transmission>
  <transmission name="right_f3_j1" type="pr2_mechanism_model/SimpleTransmission">
    <joint name="right_f3_j1"/>
    <actuator name="right_f3_j1_motor"/>
    <mechanicalReduction>1</mechanicalReduction>
  </transmission>
  <transmission name="right_f3_j2" type="pr2_mechanism_model/SimpleTransmission">
    <joint name="right_f3_j2"/>
    <actuator name="right_f3_j2_motor"/>
    <mechanicalReduction>1</mechanicalReduction>
  </transmission>
  <gazebo reference="right_f3_base">
    <mu1>0.9</mu1>
    <mu2>0.9</mu2>
    <kp>1000000.0</kp>
    <kd>1.0</kd>
    <maxVel>0.1</maxVel>
    <minDepth>0.001</minDepth>
    <material>Gazebo/FlatBlack</material>
  </gazebo>
  <gazebo reference="right_f3_0">
    <mu1>0.9</mu1>
    <mu2>0.9</mu2>
    <kp>1000000.0</kp>
    <kd>1.0</kd>
    <maxVel>0.1</maxVel>
    <minDepth>0.003</minDepth>
    <maxContacts>1</maxContacts>
    <material>Gazebo/FlatBlack</material>
  </gazebo>
  <gazebo reference="right_f3_1">
    <mu1>0.9</mu1>
    <mu2>0.9</mu2>
    <kp>1000000.0</kp>
    <kd>1.0</kd>
    <maxVel>0.1</maxVel>
    <minDepth>0.003</minDepth>
    <maxContacts>1</maxContacts>
    <material>Gazebo/FlatBlack</material>
  </gazebo>
  <gazebo reference="right_f3_2">
    <mu1>0.9</mu1>
    <mu2>0.9</mu2>
    <kp>1000000.0</kp>
    <kd>1.0</kd>
    <maxVel>0.1</maxVel>
    <minDepth>0.003</minDepth>
    <maxContacts>1</maxContacts>
    <material>Gazebo/FlatBlack</material>
  </gazebo>
  <gazebo reference="right_f3_j0">
    <cfmDamping>1</cfmDamping>
  </gazebo>
  <gazebo reference="right_f3_j1">
    <cfmDamping>1</cfmDamping>
  </gazebo>
  <gazebo reference="right_f3_j2">
    <cfmDamping>1</cfmDamping>
  </gazebo>
  <gazebo reference="right_palm">
    <mu1>0.9</mu1>
    <mu2>0.9</mu2>
    <material>Gazebo/FlatBlack</material>
  </gazebo>
  <joint name="right_palm_left_camera_frame_joint" type="fixed">
    <origin rpy="0.6708 -1.57079632679 3.14159265359" xyz="0.0683774130138 0.0138342911048 0.025"/>
    <parent link="right_palm"/>
    <child link="right_palm_left_camera_frame"/>
  </joint>
  <link name="right_palm_left_camera_frame">
    <inertial>
      <mass value="0.01"/>
      <origin xyz="0 0 0"/>
      <inertia ixx="0.0001" ixy="0.0" ixz="0.0" iyy="0.0001" iyz="0.0" izz="0.0001"/>
    </inertial>
    <visual group="default">
      <origin rpy="0 0 0" xyz="0 0 0"/>
      <geometry>
        <box size="0.003 0.010 0.007"/>
      </geometry>
    </visual>
  </link>
  <joint name="right_palm_left_camera_optical_frame_joint" type="fixed">
    <origin rpy="-1.57079632679 0.0 -1.57079632679" xyz="0 0 0"/>
    <parent link="right_palm_left_camera_frame"/>
    <child link="right_palm_left_camera_optical_frame"/>
  </joint>
  <link name="right_palm_left_camera_optical_frame"/>
  <gazebo reference="right_palm_left_camera_frame">
    <sensor name="right_palm_stereo_camera" type="multicamera">
      <update_rate>30.0</update_rate>
      <camera name="left">
        <horizontal_fov>1.25663706144</horizontal_fov>
        <image>
          <width>752</width>
          <height>480</height>
          <format>L8</format>
        </image>
        <clip>
          <near>0.02</near>
          <far>100</far>
        </clip>
        <noise>
          <type>gaussian</type>
          <mean>0.0</mean>
          <stddev>0.007</stddev>
        </noise>
      </camera>
      <camera name="right">
        <pose>0 -0.04 0  0 0 0</pose>
        <horizontal_fov>1.25663706144</horizontal_fov>
        <image>
          <width>752</width>
          <height>480</height>
          <format>L8</format>
        </image>
        <clip>
          <near>0.02</near>
          <far>100</far>
        </clip>
        <noise>
          <type>gaussian</type>
          <mean>0.0</mean>
          <stddev>0.007</stddev>
        </noise>
      </camera>
      <plugin filename="libgazebo_ros_multicamera.so" name="stereo_camera_controller">
        <alwaysOn>true</alwaysOn>
        <updateRate>0.0</updateRate>
        <cameraName>sandia_hands/r_hand/camera</cameraName>
        <imageTopicName>image_raw</imageTopicName>
        <cameraInfoTopicName>camera_info</cameraInfoTopicName>
        <frameName>right_palm_left_camera_optical_frame</frameName>
        <hackBaseline>0.04</hackBaseline>
        <distortionK1>0.0</distortionK1>
        <distortionK2>0.0</distortionK2>
        <distortionK3>0.0</distortionK3>
        <distortionT1>0.0</distortionT1>
        <distortionT2>0.0</distortionT2>
      </plugin>
    </sensor>
  </gazebo>
  <joint name="right_palm_right_camera_frame_joint" type="fixed">
    <origin rpy="0.6708 -1.57079632679 3.14159265359" xyz="0.0435128991906 0.0451672761576 0.025"/>
    <parent link="right_palm"/>
    <child link="right_palm_right_camera_frame"/>
  </joint>
  <link name="right_palm_right_camera_frame">
    <inertial>
      <mass value="0.01"/>
      <origin xyz="0 0 0"/>
      <inertia ixx="0.0001" ixy="0.0" ixz="0.0" iyy="0.0001" iyz="0.0" izz="0.0001"/>
    </inertial>
    <visual group="default">
      <origin rpy="0 0 0" xyz="0 0 0"/>
      <geometry>
        <box size="0.003 0.010 0.007"/>
      </geometry>
    </visual>
  </link>
  <joint name="right_palm_right_camera_optical_frame_joint" type="fixed">
    <origin rpy="-1.57079632679 0.0 -1.57079632679" xyz="0 0 0"/>
    <parent link="right_palm_right_camera_frame"/>
    <child link="right_palm_right_camera_optical_frame"/>
  </joint>
  <link name="right_palm_right_camera_optical_frame"/>
  <gazebo>
    <plugin filename="libContactModelPlugin.so" name="sandia_contact_plugin">
      <contact>
        <collision>r_hand::r_hand_collision_right_palm</collision>
        <collision>r_hand::r_hand_collision_right_palm_1</collision>
        <collision>r_hand::r_hand_collision_right_palm_3</collision>
        <collision>r_hand::r_hand_collision_right_palm_4</collision>
        <collision>r_hand::r_hand_collision_right_palm_5</collision>
        <collision>right_f0_1::right_f0_1_collision</collision>
        <collision>right_f0_2::right_f0_2_collision</collision>
        <collision>right_f1_1::right_f1_1_collision</collision>
        <collision>right_f1_2::right_f1_2_collision</collision>
        <collision>right_f2_1::right_f2_1_collision</collision>
        <collision>right_f2_2::right_f2_2_collision</collision>
        <collision>right_f3_1::right_f3_1_collision</collision>
        <collision>right_f3_2::right_f3_2_collision</collision>
      </contact>
    </plugin>
  </gazebo>
  <gazebo reference="r_hand">
    <sensor name="imu_sensor" type="imu">
      <always_on>1</always_on>
      <update_rate>1000.0</update_rate>
      <imu>
        <noise>
          <type>gaussian</type>
          <rate>
            <mean>0.0</mean>
            <stddev>2e-4</stddev>
            <bias_mean>0.0000075</bias_mean>
            <bias_stddev>0.0000008</bias_stddev>
          </rate>
          <accel>
            <mean>0.0</mean>
            <stddev>1.7e-2</stddev>
            <bias_mean>0.1</bias_mean>
            <bias_stddev>0.001</bias_stddev>
          </accel>
        </noise>
      </imu>
    </sensor>
  </gazebo>
  <link name="left_palm">
    <origin rpy="0 0 0" xyz="0 0 0"/>
    <inertial>
      <mass value="1.303"/>
      <origin xyz="0 0 0"/>
      <!-- solid sphere with 5cm radius -->
      <inertia ixx="0.001303" ixy="0" ixz="0" iyy="0.001303" iyz="0" izz="0.001303"/>
    </inertial>
    <!-- begin simple shape approximation of palm -->
    <collision group="default">
      <origin rpy="0 1.57079632679 0.9" xyz="0.069 -0.016 0.038"/>
      <geometry>
        <cylinder length="0.100" radius="0.013"/>
      </geometry>
    </collision>
    <collision group="other">
      <origin rpy="0.41 0 0.9" xyz="0.064 -0.008 0.021"/>
      <geometry>
        <box size="0.09 .035 .05"/>
      </geometry>
    </collision>
    <collision group="other">
      <origin rpy="0 1.57079632679 0" xyz="0.02 0 -0.005"/>
      <geometry>
        <cylinder length="0.05" radius="0.038"/>
      </geometry>
    </collision>
    <collision group="other">
      <origin rpy="0 0 -0.37" xyz="0.11 0.01 -0.005"/>
      <geometry>
        <box size="0.09 .03 .06"/>
      </geometry>
    </collision>
    <collision group="other">
      <origin rpy="0 0 -0.37" xyz="0.09 -0.02 -0.005"/>
      <geometry>
        <box size="0.09 .03 .06"/>
      </geometry>
    </collision>
    <collision group="other">
      <origin rpy="0 0 -0.37" xyz="0.060 -0.05 -0.005"/>
      <geometry>
        <box size="0.09 .03 .06"/>
      </geometry>
    </collision>
    <collision group="other">
      <origin rpy="0 0 -0.79" xyz="0.044 0.04 -0.005"/>
      <geometry>
        <box size="0.09 .03 .06"/>
      </geometry>
    </collision>
    <!--   end simple shape approximation of palm -->
    <!-- begin visual shape approximation of palm -->
    <visual>
      <origin rpy="0 1.57079632679 0.9" xyz="0.069 -0.016 0.038"/>
      <geometry>
        <cylinder length="0.100" radius="0.013"/>
      </geometry>
      <material name="left_sandia_hand_skin">
        <color rgba="0.835 0.655 0.345 1.0"/>
      </material>
    </visual>
    <visual>
      <origin rpy="0.41 0 0.9" xyz="0.064 -0.008 0.021"/>
      <geometry>
        <box size="0.09 .035 .05"/>
      </geometry>
      <material name="left_sandia_hand_skin">
        <color rgba="0.835 0.655 0.345 1.0"/>
      </material>
    </visual>
    <visual>
      <origin rpy="0 1.57079632679 0" xyz="0.02 0 -0.005"/>
      <geometry>
        <cylinder length="0.05" radius="0.038"/>
      </geometry>
      <material name="left_sandia_hand_skin">
        <color rgba="0.835 0.655 0.345 1.0"/>
      </material>
    </visual>
    <visual>
      <origin rpy="0 0 -0.37" xyz="0.11 0.01 -0.005"/>
      <geometry>
        <box size="0.09 .03 .06"/>
      </geometry>
      <material name="left_sandia_hand_skin">
        <color rgba="0.835 0.655 0.345 1.0"/>
      </material>
    </visual>
    <visual>
      <origin rpy="0 0 -0.37" xyz="0.09 -0.02 -0.005"/>
      <geometry>
        <box size="0.09 .03 .06"/>
      </geometry>
      <material name="left_sandia_hand_skin">
        <color rgba="0.835 0.655 0.345 1.0"/>
      </material>
    </visual>
    <visual>
      <origin rpy="0 0 -0.37" xyz="0.060 -0.05 -0.005"/>
      <geometry>
        <box size="0.09 .03 .06"/>
      </geometry>
      <material name="left_sandia_hand_skin">
        <color rgba="0.835 0.655 0.345 1.0"/>
      </material>
    </visual>
    <visual>
      <origin rpy="0 0 -0.79" xyz="0.044 0.04 -0.005"/>
      <geometry>
        <box size="0.09 .03 .06"/>
      </geometry>
      <material name="left_sandia_hand_skin">
        <color rgba="0.835 0.655 0.345 1.0"/>
      </material>
    </visual>
    <!--   end visual shape approximation of palm -->
    <!-- begin collision mesh of f2 ->
      <collision group="default">
        <origin xyz="0 0 0" rpy="0 0 0"/>
        <geometry>
          <mesh filename="package://sandia_hand_description/meshes/palm.stl"/>
        </geometry>
      </collision>
      <!-   end collision mesh of f2 -->
    <!-- begin visual mesh of f2    ->
      <visual>
        <origin xyz="0 0 0" rpy="0 0 0"/>
        <geometry>
          <mesh filename="package://sandia_hand_description/meshes/palm.stl"/>
        </geometry>
        <material name="${side}_sandia_hand_skin">
          <color rgba="0.835 0.655 0.345 1.0"/>
        </material>
      </visual>
      <!-   end visual mesh of f2 -->
  </link>
  <joint name="left_sandia_hand_joint" type="fixed">
    <parent link="l_hand"/>
    <child link="left_palm"/>
    <origin rpy=" 1.57079 0  1.57079" xyz="0  0.1 0"/>
  </joint>
  <link name="left_f0_base">
    <origin rpy="0 0 0" xyz="0 0 0"/>
    <inertial>
      <!-- total mass is 2.303 kg, palm is about 1.303 kg, distribute the rest into _base -->
      <mass value="0.250"/>
      <!-- (2.303 - 1.303) / 4 -->
      <origin xyz="0 0 0"/>
      <!-- model as sphere with radius of 1cm -->
      <inertia ixx="0.00001" ixy="0" ixz="0" iyy="0.00001" iyz="0" izz="0.00001"/>
    </inertial>
  </link>
  <link name="left_f0_fixed_accel">
    <origin rpy="0 0 0" xyz="0 0 0"/>
    <inertial>
      <mass value="0.01"/>
      <origin xyz="0 0 0"/>
      <inertia ixx="0.000001" ixy="0" ixz="0" iyy="0.000001" iyz="0" izz="0.000001"/>
    </inertial>
  </link>
  <link name="left_f0_0">
    <origin rpy="0 0 0" xyz="0 0 0"/>
    <inertial>
      <mass value="0.106"/>
      <!-- F1 -->
      <origin xyz="0 0 0"/>
      <!-- solid cylinder -->
      <inertia ixx="0.000011925" ixy="0" ixz="0" iyy="0.00011505" iyz="0" izz="0.00011505"/>
    </inertial>
    <!-- begin simple shape approximation of f0 -->
    <collision group="default">
      <origin rpy="0 0 0" xyz="0 0 0.003"/>
      <geometry>
        <cylinder length="0.023" radius="0.015"/>
      </geometry>
    </collision>
    <collision group="other">
      <origin rpy="1.57079632679 0 0" xyz="0.011 0 0.003"/>
      <geometry>
        <cylinder length="0.023" radius="0.01"/>
      </geometry>
    </collision>
    <!--   end simple shape approximation of f0 -->
    <!-- begin visual shape approximation of f0 -->
    <visual>
      <origin rpy="0 0 0" xyz="0 0 0.003"/>
      <geometry>
        <cylinder length="0.023" radius="0.015"/>
      </geometry>
      <material name="left_sandia_hand_skin_suntan">
        <color rgba="0.7 0.4 0.2 1.0"/>
      </material>
    </visual>
    <visual>
      <origin rpy="1.57079632679 0 0" xyz="0.011 0 0.003"/>
      <geometry>
        <cylinder length="0.023" radius="0.01"/>
      </geometry>
      <material name="left_sandia_hand_skin_suntan">
        <color rgba="0.7 0.4 0.2 1.0"/>
      </material>
    </visual>
    <!--   end visual shape approximation of f0 -->
    <!-- begin collision mesh of f0 ->
      <collision group="default">
        <origin xyz="0 0 0" rpy="0 0 0"/>
        <geometry>
          <mesh filename="package://sandia_hand_description/meshes/f0.stl"/>
        </geometry>
      </collision>
      <!-   end collision mesh of f0 -->
    <!-- begin visual mesh of f0 ->
      <visual>
        <origin xyz="0 0 0" rpy="0 0 0"/>
        <geometry>
          <mesh filename="package://sandia_hand_description/meshes/f0.stl"/>
        </geometry>
        <material name="${side}_sandia_hand_skin_suntan">
          <color rgba="0.7 0.4 0.2 1.0"/>
        </material>
      </visual>
      <!-   end visual mesh of f0 -->
  </link>
  <link name="left_f0_1">
    <origin rpy="0 0 0" xyz="0 0 0"/>
    <inertial>
      <mass value="0.033"/>
      <!-- F2 -->
      <origin xyz="0 0 0"/>
      <!-- solid cylinder -->
      <inertia ixx="0.00000165" ixy="0" ixz="0" iyy="0.00001316975" iyz="0" izz="0.00001316975"/>
    </inertial>
    <!-- begin simple shape approximation of f1 -->
    <collision group="default">
      <origin rpy="0 1.57079632679 0" xyz="0.024 0 0"/>
      <geometry>
        <cylinder length="0.067" radius="0.01"/>
      </geometry>
    </collision>
    <!--   end simple shape approximation of f1 -->
    <!-- begin visual shape approximation of f1 -->
    <visual>
      <origin rpy="0 1.57079632679 0" xyz="0.024 0 0"/>
      <geometry>
        <cylinder length="0.067" radius="0.01"/>
      </geometry>
      <material name="left_sandia_hand_skin">
        <color rgba="0.835 0.655 0.345 1.0"/>
      </material>
    </visual>
    <!--   end visual shape approximation of f1 -->
    <!-- begin collision mesh of f1 ->
      <collision group="default">
        <origin xyz="0 0 0" rpy="0 0 0"/>
        <geometry>
          <mesh filename="package://sandia_hand_description/meshes/f1.stl"/>
        </geometry>
      </collision>
      <!-   end collision mesh of f1 -->
    <!-- begin visual mesh of f1 ->
      <visual>
        <origin xyz="0 0 0" rpy="0 0 0"/>
        <geometry>
          <mesh filename="package://sandia_hand_description/meshes/f1.stl"/>
        </geometry>
        <material name="${side}_sandia_hand_skin">
          <color rgba="0.835 0.655 0.345 1.0"/>
        </material>
      </visual>
      <!-   end visual mesh of f1 -->
  </link>
  <link name="left_f0_1_accel">
    <origin rpy="0 0 0" xyz="0 0 0"/>
    <inertial>
      <mass value="0.01"/>
      <origin xyz="0 0 0"/>
      <inertia ixx="0.000001" ixy="0" ixz="0" iyy="0.000001" iyz="0" izz="0.000001"/>
    </inertial>
  </link>
  <link name="left_f0_2">
    <origin rpy="0 0 0" xyz="0 0 0"/>
    <inertial>
      <mass value="0.033"/>
      <!-- F3 -->
      <origin xyz="0 0 0"/>
      <!-- solid cylinder -->
      <inertia ixx="0.0000013365" ixy="0" ixz="0" iyy="0.000009603" iyz="0" izz="0.000009603"/>
    </inertial>
    <!-- begin simple shape approximation of f2 -->
    <collision group="default">
      <origin rpy="0 1.57079632679 0" xyz="0.024 0 0"/>
      <geometry>
        <cylinder length="0.057" radius="0.009"/>
      </geometry>
    </collision>
    <collision group="other">
      <origin rpy="0 0 0" xyz="0.052 0 0"/>
      <geometry>
        <sphere radius="0.009"/>
      </geometry>
    </collision>
    <!--   end simple shape approximation of f2 -->
    <!-- begin visual shape approximation of f2 -->
    <visual>
      <origin rpy="0 1.57079632679 0" xyz="0.024 0 0"/>
      <geometry>
        <cylinder length="0.057" radius="0.009"/>
      </geometry>
      <material name="left_sandia_hand_skin_suntan">
        <color rgba="0.8 0.6 0.3 1.0"/>
      </material>
    </visual>
    <visual>
      <origin rpy="0 0 0" xyz="0.052 0 0"/>
      <geometry>
        <sphere radius="0.009"/>
      </geometry>
      <material name="left_sandia_hand_skin_suntan">
        <color rgba="0.8 0.6 0.3 1.0"/>
      </material>
    </visual>
    <!-- begin collision mesh of f2    ->
      <collision group="default">
        <origin xyz="0 0 0" rpy="0 0 0"/>
        <geometry>
          <mesh filename="package://sandia_hand_description/meshes/f2.stl"/>
        </geometry>
      </collision>
      <!-   end collision mesh of f2 -->
    <!-- begin visual mesh of f2    ->
      <visual>
        <origin xyz="0 0 0" rpy="0 0 0"/>
        <geometry>
          <mesh filename="package://sandia_hand_description/meshes/f2.stl"/>
        </geometry>
        <material name="${side}_sandia_hand_skin_suntan">
          <color rgba="0.8 0.6 0.3 1.0"/>
        </material>
      </visual>
      <!-   end visual mesh of f2 -->
  </link>
  <link name="left_f0_2_accel">
    <origin rpy="0 0 0" xyz="0 0 0"/>
    <inertial>
      <mass value="0.01"/>
      <origin xyz="0 0 0"/>
      <inertia ixx="0.000001" ixy="0" ixz="0" iyy="0.000001" iyz="0" izz="0.000001"/>
    </inertial>
  </link>
  <joint name="left_f0_base" type="fixed">
    <parent link="left_palm"/>
    <child link="left_f0_base"/>
    <origin rpy="0 0 -0.3" xyz="0.14 0.0 0"/>
  </joint>
  <joint name="left_f0_j0" type="revolute">
    <axis xyz="0 0 -1"/>
    <parent link="left_f0_base"/>
    <child link="left_f0_0"/>
    <limit effort="11" lower="-1.57079632679" upper="1.57079632679" velocity="-1"/>
    <safety_controller k_position="1000.0" k_velocity="1000.0" soft_lower_limit="-11.57079" soft_upper_limit="11.57079"/>
    <dynamics damping="1.0"/>
    <origin rpy="0 0 0" xyz="0 0 0"/>
  </joint>
  <joint name="left_f0_j1" type="revolute">
    <axis xyz="0 0 1"/>
    <parent link="left_f0_0"/>
    <child link="left_f0_1"/>
    <limit effort="28" lower="-1.57079632679" upper="1.57079632679" velocity="-1"/>
    <safety_controller k_position="1000.0" k_velocity="1000.0" soft_lower_limit="-11.57079" soft_upper_limit="11.57079"/>
    <dynamics damping="1.0"/>
    <origin rpy="1.57079632679 0 0" xyz="0.028 0 0"/>
  </joint>
  <joint name="left_f0_j2" type="revolute">
    <axis xyz="0 0 1"/>
    <parent link="left_f0_1"/>
    <child link="left_f0_2"/>
    <origin rpy="0 0 0" xyz="0.05 0 0"/>
    <safety_controller k_position="1000.0" k_velocity="1000.0" soft_lower_limit="-11.57079" soft_upper_limit="11.57079"/>
    <dynamics damping="1.0"/>
    <limit effort="28" lower="-1.57079632679" upper="1.57079632679" velocity="-1"/>
  </joint>
  <joint name="left_f0_fixed_accel" type="fixed">
    <parent link="left_f0_base"/>
    <child link="left_f0_fixed_accel"/>
    <origin rpy="0 0 0" xyz="-0.05 0 0"/>
  </joint>
  <joint name="left_f0_1_accel" type="fixed">
    <parent link="left_f0_1"/>
    <child link="left_f0_1_accel"/>
    <origin rpy="-1.57079632679 0 0" xyz="0.03 0 0"/>
  </joint>
  <joint name="left_f0_2_accel" type="fixed">
    <parent link="left_f0_2"/>
    <child link="left_f0_2_accel"/>
    <origin rpy="-1.57079632679 0 0" xyz="0.04 0 0"/>
  </joint>
  <transmission name="left_f0_j0" type="pr2_mechanism_model/SimpleTransmission">
    <joint name="left_f0_j0"/>
    <actuator name="left_f0_j0_motor"/>
    <mechanicalReduction>1</mechanicalReduction>
  </transmission>
  <transmission name="left_f0_j1" type="pr2_mechanism_model/SimpleTransmission">
    <joint name="left_f0_j1"/>
    <actuator name="left_f0_j1_motor"/>
    <mechanicalReduction>1</mechanicalReduction>
  </transmission>
  <transmission name="left_f0_j2" type="pr2_mechanism_model/SimpleTransmission">
    <joint name="left_f0_j2"/>
    <actuator name="left_f0_j2_motor"/>
    <mechanicalReduction>1</mechanicalReduction>
  </transmission>
  <gazebo reference="left_f0_base">
    <mu1>0.9</mu1>
    <mu2>0.9</mu2>
    <kp>1000000.0</kp>
    <kd>1.0</kd>
    <maxVel>0.1</maxVel>
    <minDepth>0.001</minDepth>
    <material>Gazebo/FlatBlack</material>
  </gazebo>
  <gazebo reference="left_f0_0">
    <mu1>0.9</mu1>
    <mu2>0.9</mu2>
    <kp>1000000.0</kp>
    <kd>1.0</kd>
    <maxVel>0.1</maxVel>
    <minDepth>0.003</minDepth>
    <maxContacts>1</maxContacts>
    <material>Gazebo/FlatBlack</material>
  </gazebo>
  <gazebo reference="left_f0_1">
    <mu1>0.9</mu1>
    <mu2>0.9</mu2>
    <kp>1000000.0</kp>
    <kd>1.0</kd>
    <maxVel>0.1</maxVel>
    <minDepth>0.003</minDepth>
    <maxContacts>1</maxContacts>
    <material>Gazebo/FlatBlack</material>
  </gazebo>
  <gazebo reference="left_f0_2">
    <mu1>0.9</mu1>
    <mu2>0.9</mu2>
    <kp>1000000.0</kp>
    <kd>1.0</kd>
    <maxVel>0.1</maxVel>
    <minDepth>0.003</minDepth>
    <maxContacts>1</maxContacts>
    <material>Gazebo/FlatBlack</material>
  </gazebo>
  <gazebo reference="left_f0_j0">
    <cfmDamping>1</cfmDamping>
  </gazebo>
  <gazebo reference="left_f0_j1">
    <cfmDamping>1</cfmDamping>
  </gazebo>
  <gazebo reference="left_f0_j2">
    <cfmDamping>1</cfmDamping>
  </gazebo>
  <link name="left_f1_base">
    <origin rpy="0 0 0" xyz="0 0 0"/>
    <inertial>
      <!-- total mass is 2.303 kg, palm is about 1.303 kg, distribute the rest into _base -->
      <mass value="0.250"/>
      <!-- (2.303 - 1.303) / 4 -->
      <origin xyz="0 0 0"/>
      <!-- model as sphere with radius of 1cm -->
      <inertia ixx="0.00001" ixy="0" ixz="0" iyy="0.00001" iyz="0" izz="0.00001"/>
    </inertial>
  </link>
  <link name="left_f1_fixed_accel">
    <origin rpy="0 0 0" xyz="0 0 0"/>
    <inertial>
      <mass value="0.01"/>
      <origin xyz="0 0 0"/>
      <inertia ixx="0.000001" ixy="0" ixz="0" iyy="0.000001" iyz="0" izz="0.000001"/>
    </inertial>
  </link>
  <link name="left_f1_0">
    <origin rpy="0 0 0" xyz="0 0 0"/>
    <inertial>
      <mass value="0.106"/>
      <!-- F1 -->
      <origin xyz="0 0 0"/>
      <!-- solid cylinder -->
      <inertia ixx="0.000011925" ixy="0" ixz="0" iyy="0.00011505" iyz="0" izz="0.00011505"/>
    </inertial>
    <!-- begin simple shape approximation of f0 -->
    <collision group="default">
      <origin rpy="0 0 0" xyz="0 0 0.003"/>
      <geometry>
        <cylinder length="0.023" radius="0.015"/>
      </geometry>
    </collision>
    <collision group="other">
      <origin rpy="1.57079632679 0 0" xyz="0.011 0 0.003"/>
      <geometry>
        <cylinder length="0.023" radius="0.01"/>
      </geometry>
    </collision>
    <!--   end simple shape approximation of f0 -->
    <!-- begin visual shape approximation of f0 -->
    <visual>
      <origin rpy="0 0 0" xyz="0 0 0.003"/>
      <geometry>
        <cylinder length="0.023" radius="0.015"/>
      </geometry>
      <material name="left_sandia_hand_skin_suntan">
        <color rgba="0.7 0.4 0.2 1.0"/>
      </material>
    </visual>
    <visual>
      <origin rpy="1.57079632679 0 0" xyz="0.011 0 0.003"/>
      <geometry>
        <cylinder length="0.023" radius="0.01"/>
      </geometry>
      <material name="left_sandia_hand_skin_suntan">
        <color rgba="0.7 0.4 0.2 1.0"/>
      </material>
    </visual>
    <!--   end visual shape approximation of f0 -->
    <!-- begin collision mesh of f0 ->
      <collision group="default">
        <origin xyz="0 0 0" rpy="0 0 0"/>
        <geometry>
          <mesh filename="package://sandia_hand_description/meshes/f0.stl"/>
        </geometry>
      </collision>
      <!-   end collision mesh of f0 -->
    <!-- begin visual mesh of f0 ->
      <visual>
        <origin xyz="0 0 0" rpy="0 0 0"/>
        <geometry>
          <mesh filename="package://sandia_hand_description/meshes/f0.stl"/>
        </geometry>
        <material name="${side}_sandia_hand_skin_suntan">
          <color rgba="0.7 0.4 0.2 1.0"/>
        </material>
      </visual>
      <!-   end visual mesh of f0 -->
  </link>
  <link name="left_f1_1">
    <origin rpy="0 0 0" xyz="0 0 0"/>
    <inertial>
      <mass value="0.033"/>
      <!-- F2 -->
      <origin xyz="0 0 0"/>
      <!-- solid cylinder -->
      <inertia ixx="0.00000165" ixy="0" ixz="0" iyy="0.00001316975" iyz="0" izz="0.00001316975"/>
    </inertial>
    <!-- begin simple shape approximation of f1 -->
    <collision group="default">
      <origin rpy="0 1.57079632679 0" xyz="0.024 0 0"/>
      <geometry>
        <cylinder length="0.067" radius="0.01"/>
      </geometry>
    </collision>
    <!--   end simple shape approximation of f1 -->
    <!-- begin visual shape approximation of f1 -->
    <visual>
      <origin rpy="0 1.57079632679 0" xyz="0.024 0 0"/>
      <geometry>
        <cylinder length="0.067" radius="0.01"/>
      </geometry>
      <material name="left_sandia_hand_skin">
        <color rgba="0.835 0.655 0.345 1.0"/>
      </material>
    </visual>
    <!--   end visual shape approximation of f1 -->
    <!-- begin collision mesh of f1 ->
      <collision group="default">
        <origin xyz="0 0 0" rpy="0 0 0"/>
        <geometry>
          <mesh filename="package://sandia_hand_description/meshes/f1.stl"/>
        </geometry>
      </collision>
      <!-   end collision mesh of f1 -->
    <!-- begin visual mesh of f1 ->
      <visual>
        <origin xyz="0 0 0" rpy="0 0 0"/>
        <geometry>
          <mesh filename="package://sandia_hand_description/meshes/f1.stl"/>
        </geometry>
        <material name="${side}_sandia_hand_skin">
          <color rgba="0.835 0.655 0.345 1.0"/>
        </material>
      </visual>
      <!-   end visual mesh of f1 -->
  </link>
  <link name="left_f1_1_accel">
    <origin rpy="0 0 0" xyz="0 0 0"/>
    <inertial>
      <mass value="0.01"/>
      <origin xyz="0 0 0"/>
      <inertia ixx="0.000001" ixy="0" ixz="0" iyy="0.000001" iyz="0" izz="0.000001"/>
    </inertial>
  </link>
  <link name="left_f1_2">
    <origin rpy="0 0 0" xyz="0 0 0"/>
    <inertial>
      <mass value="0.033"/>
      <!-- F3 -->
      <origin xyz="0 0 0"/>
      <!-- solid cylinder -->
      <inertia ixx="0.0000013365" ixy="0" ixz="0" iyy="0.000009603" iyz="0" izz="0.000009603"/>
    </inertial>
    <!-- begin simple shape approximation of f2 -->
    <collision group="default">
      <origin rpy="0 1.57079632679 0" xyz="0.024 0 0"/>
      <geometry>
        <cylinder length="0.057" radius="0.009"/>
      </geometry>
    </collision>
    <collision group="other">
      <origin rpy="0 0 0" xyz="0.052 0 0"/>
      <geometry>
        <sphere radius="0.009"/>
      </geometry>
    </collision>
    <!--   end simple shape approximation of f2 -->
    <!-- begin visual shape approximation of f2 -->
    <visual>
      <origin rpy="0 1.57079632679 0" xyz="0.024 0 0"/>
      <geometry>
        <cylinder length="0.057" radius="0.009"/>
      </geometry>
      <material name="left_sandia_hand_skin_suntan">
        <color rgba="0.8 0.6 0.3 1.0"/>
      </material>
    </visual>
    <visual>
      <origin rpy="0 0 0" xyz="0.052 0 0"/>
      <geometry>
        <sphere radius="0.009"/>
      </geometry>
      <material name="left_sandia_hand_skin_suntan">
        <color rgba="0.8 0.6 0.3 1.0"/>
      </material>
    </visual>
    <!-- begin collision mesh of f2    ->
      <collision group="default">
        <origin xyz="0 0 0" rpy="0 0 0"/>
        <geometry>
          <mesh filename="package://sandia_hand_description/meshes/f2.stl"/>
        </geometry>
      </collision>
      <!-   end collision mesh of f2 -->
    <!-- begin visual mesh of f2    ->
      <visual>
        <origin xyz="0 0 0" rpy="0 0 0"/>
        <geometry>
          <mesh filename="package://sandia_hand_description/meshes/f2.stl"/>
        </geometry>
        <material name="${side}_sandia_hand_skin_suntan">
          <color rgba="0.8 0.6 0.3 1.0"/>
        </material>
      </visual>
      <!-   end visual mesh of f2 -->
  </link>
  <link name="left_f1_2_accel">
    <origin rpy="0 0 0" xyz="0 0 0"/>
    <inertial>
      <mass value="0.01"/>
      <origin xyz="0 0 0"/>
      <inertia ixx="0.000001" ixy="0" ixz="0" iyy="0.000001" iyz="0" izz="0.000001"/>
    </inertial>
  </link>
  <joint name="left_f1_base" type="fixed">
    <parent link="left_palm"/>
    <child link="left_f1_base"/>
    <origin rpy="0 0 -0.3" xyz="0.115 -0.03122 0"/>
  </joint>
  <joint name="left_f1_j0" type="revolute">
    <axis xyz="0 0 -1"/>
    <parent link="left_f1_base"/>
    <child link="left_f1_0"/>
    <limit effort="11" lower="-1.57079632679" upper="1.57079632679" velocity="-1"/>
    <safety_controller k_position="1000.0" k_velocity="1000.0" soft_lower_limit="-11.57079" soft_upper_limit="11.57079"/>
    <dynamics damping="1.0"/>
    <origin rpy="0 0 0" xyz="0 0 0"/>
  </joint>
  <joint name="left_f1_j1" type="revolute">
    <axis xyz="0 0 1"/>
    <parent link="left_f1_0"/>
    <child link="left_f1_1"/>
    <limit effort="28" lower="-1.57079632679" upper="1.57079632679" velocity="-1"/>
    <safety_controller k_position="1000.0" k_velocity="1000.0" soft_lower_limit="-11.57079" soft_upper_limit="11.57079"/>
    <dynamics damping="1.0"/>
    <origin rpy="1.57079632679 0 0" xyz="0.028 0 0"/>
  </joint>
  <joint name="left_f1_j2" type="revolute">
    <axis xyz="0 0 1"/>
    <parent link="left_f1_1"/>
    <child link="left_f1_2"/>
    <origin rpy="0 0 0" xyz="0.05 0 0"/>
    <safety_controller k_position="1000.0" k_velocity="1000.0" soft_lower_limit="-11.57079" soft_upper_limit="11.57079"/>
    <dynamics damping="1.0"/>
    <limit effort="28" lower="-1.57079632679" upper="1.57079632679" velocity="-1"/>
  </joint>
  <joint name="left_f1_fixed_accel" type="fixed">
    <parent link="left_f1_base"/>
    <child link="left_f1_fixed_accel"/>
    <origin rpy="0 0 0" xyz="-0.05 0 0"/>
  </joint>
  <joint name="left_f1_1_accel" type="fixed">
    <parent link="left_f1_1"/>
    <child link="left_f1_1_accel"/>
    <origin rpy="-1.57079632679 0 0" xyz="0.03 0 0"/>
  </joint>
  <joint name="left_f1_2_accel" type="fixed">
    <parent link="left_f1_2"/>
    <child link="left_f1_2_accel"/>
    <origin rpy="-1.57079632679 0 0" xyz="0.04 0 0"/>
  </joint>
  <transmission name="left_f1_j0" type="pr2_mechanism_model/SimpleTransmission">
    <joint name="left_f1_j0"/>
    <actuator name="left_f1_j0_motor"/>
    <mechanicalReduction>1</mechanicalReduction>
  </transmission>
  <transmission name="left_f1_j1" type="pr2_mechanism_model/SimpleTransmission">
    <joint name="left_f1_j1"/>
    <actuator name="left_f1_j1_motor"/>
    <mechanicalReduction>1</mechanicalReduction>
  </transmission>
  <transmission name="left_f1_j2" type="pr2_mechanism_model/SimpleTransmission">
    <joint name="left_f1_j2"/>
    <actuator name="left_f1_j2_motor"/>
    <mechanicalReduction>1</mechanicalReduction>
  </transmission>
  <gazebo reference="left_f1_base">
    <mu1>0.9</mu1>
    <mu2>0.9</mu2>
    <kp>1000000.0</kp>
    <kd>1.0</kd>
    <maxVel>0.1</maxVel>
    <minDepth>0.001</minDepth>
    <material>Gazebo/FlatBlack</material>
  </gazebo>
  <gazebo reference="left_f1_0">
    <mu1>0.9</mu1>
    <mu2>0.9</mu2>
    <kp>1000000.0</kp>
    <kd>1.0</kd>
    <maxVel>0.1</maxVel>
    <minDepth>0.003</minDepth>
    <maxContacts>1</maxContacts>
    <material>Gazebo/FlatBlack</material>
  </gazebo>
  <gazebo reference="left_f1_1">
    <mu1>0.9</mu1>
    <mu2>0.9</mu2>
    <kp>1000000.0</kp>
    <kd>1.0</kd>
    <maxVel>0.1</maxVel>
    <minDepth>0.003</minDepth>
    <maxContacts>1</maxContacts>
    <material>Gazebo/FlatBlack</material>
  </gazebo>
  <gazebo reference="left_f1_2">
    <mu1>0.9</mu1>
    <mu2>0.9</mu2>
    <kp>1000000.0</kp>
    <kd>1.0</kd>
    <maxVel>0.1</maxVel>
    <minDepth>0.003</minDepth>
    <maxContacts>1</maxContacts>
    <material>Gazebo/FlatBlack</material>
  </gazebo>
  <gazebo reference="left_f1_j0">
    <cfmDamping>1</cfmDamping>
  </gazebo>
  <gazebo reference="left_f1_j1">
    <cfmDamping>1</cfmDamping>
  </gazebo>
  <gazebo reference="left_f1_j2">
    <cfmDamping>1</cfmDamping>
  </gazebo>
  <link name="left_f2_base">
    <origin rpy="0 0 0" xyz="0 0 0"/>
    <inertial>
      <!-- total mass is 2.303 kg, palm is about 1.303 kg, distribute the rest into _base -->
      <mass value="0.250"/>
      <!-- (2.303 - 1.303) / 4 -->
      <origin xyz="0 0 0"/>
      <!-- model as sphere with radius of 1cm -->
      <inertia ixx="0.00001" ixy="0" ixz="0" iyy="0.00001" iyz="0" izz="0.00001"/>
    </inertial>
  </link>
  <link name="left_f2_fixed_accel">
    <origin rpy="0 0 0" xyz="0 0 0"/>
    <inertial>
      <mass value="0.01"/>
      <origin xyz="0 0 0"/>
      <inertia ixx="0.000001" ixy="0" ixz="0" iyy="0.000001" iyz="0" izz="0.000001"/>
    </inertial>
  </link>
  <link name="left_f2_0">
    <origin rpy="0 0 0" xyz="0 0 0"/>
    <inertial>
      <mass value="0.106"/>
      <!-- F1 -->
      <origin xyz="0 0 0"/>
      <!-- solid cylinder -->
      <inertia ixx="0.000011925" ixy="0" ixz="0" iyy="0.00011505" iyz="0" izz="0.00011505"/>
    </inertial>
    <!-- begin simple shape approximation of f0 -->
    <collision group="default">
      <origin rpy="0 0 0" xyz="0 0 0.003"/>
      <geometry>
        <cylinder length="0.023" radius="0.015"/>
      </geometry>
    </collision>
    <collision group="other">
      <origin rpy="1.57079632679 0 0" xyz="0.011 0 0.003"/>
      <geometry>
        <cylinder length="0.023" radius="0.01"/>
      </geometry>
    </collision>
    <!--   end simple shape approximation of f0 -->
    <!-- begin visual shape approximation of f0 -->
    <visual>
      <origin rpy="0 0 0" xyz="0 0 0.003"/>
      <geometry>
        <cylinder length="0.023" radius="0.015"/>
      </geometry>
      <material name="left_sandia_hand_skin_suntan">
        <color rgba="0.7 0.4 0.2 1.0"/>
      </material>
    </visual>
    <visual>
      <origin rpy="1.57079632679 0 0" xyz="0.011 0 0.003"/>
      <geometry>
        <cylinder length="0.023" radius="0.01"/>
      </geometry>
      <material name="left_sandia_hand_skin_suntan">
        <color rgba="0.7 0.4 0.2 1.0"/>
      </material>
    </visual>
    <!--   end visual shape approximation of f0 -->
    <!-- begin collision mesh of f0 ->
      <collision group="default">
        <origin xyz="0 0 0" rpy="0 0 0"/>
        <geometry>
          <mesh filename="package://sandia_hand_description/meshes/f0.stl"/>
        </geometry>
      </collision>
      <!-   end collision mesh of f0 -->
    <!-- begin visual mesh of f0 ->
      <visual>
        <origin xyz="0 0 0" rpy="0 0 0"/>
        <geometry>
          <mesh filename="package://sandia_hand_description/meshes/f0.stl"/>
        </geometry>
        <material name="${side}_sandia_hand_skin_suntan">
          <color rgba="0.7 0.4 0.2 1.0"/>
        </material>
      </visual>
      <!-   end visual mesh of f0 -->
  </link>
  <link name="left_f2_1">
    <origin rpy="0 0 0" xyz="0 0 0"/>
    <inertial>
      <mass value="0.033"/>
      <!-- F2 -->
      <origin xyz="0 0 0"/>
      <!-- solid cylinder -->
      <inertia ixx="0.00000165" ixy="0" ixz="0" iyy="0.00001316975" iyz="0" izz="0.00001316975"/>
    </inertial>
    <!-- begin simple shape approximation of f1 -->
    <collision group="default">
      <origin rpy="0 1.57079632679 0" xyz="0.024 0 0"/>
      <geometry>
        <cylinder length="0.067" radius="0.01"/>
      </geometry>
    </collision>
    <!--   end simple shape approximation of f1 -->
    <!-- begin visual shape approximation of f1 -->
    <visual>
      <origin rpy="0 1.57079632679 0" xyz="0.024 0 0"/>
      <geometry>
        <cylinder length="0.067" radius="0.01"/>
      </geometry>
      <material name="left_sandia_hand_skin">
        <color rgba="0.835 0.655 0.345 1.0"/>
      </material>
    </visual>
    <!--   end visual shape approximation of f1 -->
    <!-- begin collision mesh of f1 ->
      <collision group="default">
        <origin xyz="0 0 0" rpy="0 0 0"/>
        <geometry>
          <mesh filename="package://sandia_hand_description/meshes/f1.stl"/>
        </geometry>
      </collision>
      <!-   end collision mesh of f1 -->
    <!-- begin visual mesh of f1 ->
      <visual>
        <origin xyz="0 0 0" rpy="0 0 0"/>
        <geometry>
          <mesh filename="package://sandia_hand_description/meshes/f1.stl"/>
        </geometry>
        <material name="${side}_sandia_hand_skin">
          <color rgba="0.835 0.655 0.345 1.0"/>
        </material>
      </visual>
      <!-   end visual mesh of f1 -->
  </link>
  <link name="left_f2_1_accel">
    <origin rpy="0 0 0" xyz="0 0 0"/>
    <inertial>
      <mass value="0.01"/>
      <origin xyz="0 0 0"/>
      <inertia ixx="0.000001" ixy="0" ixz="0" iyy="0.000001" iyz="0" izz="0.000001"/>
    </inertial>
  </link>
  <link name="left_f2_2">
    <origin rpy="0 0 0" xyz="0 0 0"/>
    <inertial>
      <mass value="0.033"/>
      <!-- F3 -->
      <origin xyz="0 0 0"/>
      <!-- solid cylinder -->
      <inertia ixx="0.0000013365" ixy="0" ixz="0" iyy="0.000009603" iyz="0" izz="0.000009603"/>
    </inertial>
    <!-- begin simple shape approximation of f2 -->
    <collision group="default">
      <origin rpy="0 1.57079632679 0" xyz="0.024 0 0"/>
      <geometry>
        <cylinder length="0.057" radius="0.009"/>
      </geometry>
    </collision>
    <collision group="other">
      <origin rpy="0 0 0" xyz="0.052 0 0"/>
      <geometry>
        <sphere radius="0.009"/>
      </geometry>
    </collision>
    <!--   end simple shape approximation of f2 -->
    <!-- begin visual shape approximation of f2 -->
    <visual>
      <origin rpy="0 1.57079632679 0" xyz="0.024 0 0"/>
      <geometry>
        <cylinder length="0.057" radius="0.009"/>
      </geometry>
      <material name="left_sandia_hand_skin_suntan">
        <color rgba="0.8 0.6 0.3 1.0"/>
      </material>
    </visual>
    <visual>
      <origin rpy="0 0 0" xyz="0.052 0 0"/>
      <geometry>
        <sphere radius="0.009"/>
      </geometry>
      <material name="left_sandia_hand_skin_suntan">
        <color rgba="0.8 0.6 0.3 1.0"/>
      </material>
    </visual>
    <!-- begin collision mesh of f2    ->
      <collision group="default">
        <origin xyz="0 0 0" rpy="0 0 0"/>
        <geometry>
          <mesh filename="package://sandia_hand_description/meshes/f2.stl"/>
        </geometry>
      </collision>
      <!-   end collision mesh of f2 -->
    <!-- begin visual mesh of f2    ->
      <visual>
        <origin xyz="0 0 0" rpy="0 0 0"/>
        <geometry>
          <mesh filename="package://sandia_hand_description/meshes/f2.stl"/>
        </geometry>
        <material name="${side}_sandia_hand_skin_suntan">
          <color rgba="0.8 0.6 0.3 1.0"/>
        </material>
      </visual>
      <!-   end visual mesh of f2 -->
  </link>
  <link name="left_f2_2_accel">
    <origin rpy="0 0 0" xyz="0 0 0"/>
    <inertial>
      <mass value="0.01"/>
      <origin xyz="0 0 0"/>
      <inertia ixx="0.000001" ixy="0" ixz="0" iyy="0.000001" iyz="0" izz="0.000001"/>
    </inertial>
  </link>
  <joint name="left_f2_base" type="fixed">
    <parent link="left_palm"/>
    <child link="left_f2_base"/>
    <origin rpy="0 0 -0.3" xyz="0.09 -0.06245 0"/>
  </joint>
  <joint name="left_f2_j0" type="revolute">
    <axis xyz="0 0 -1"/>
    <parent link="left_f2_base"/>
    <child link="left_f2_0"/>
    <limit effort="11" lower="-1.57079632679" upper="1.57079632679" velocity="-1"/>
    <safety_controller k_position="1000.0" k_velocity="1000.0" soft_lower_limit="-11.57079" soft_upper_limit="11.57079"/>
    <dynamics damping="1.0"/>
    <origin rpy="0 0 0" xyz="0 0 0"/>
  </joint>
  <joint name="left_f2_j1" type="revolute">
    <axis xyz="0 0 1"/>
    <parent link="left_f2_0"/>
    <child link="left_f2_1"/>
    <limit effort="28" lower="-1.57079632679" upper="1.57079632679" velocity="-1"/>
    <safety_controller k_position="1000.0" k_velocity="1000.0" soft_lower_limit="-11.57079" soft_upper_limit="11.57079"/>
    <dynamics damping="1.0"/>
    <origin rpy="1.57079632679 0 0" xyz="0.028 0 0"/>
  </joint>
  <joint name="left_f2_j2" type="revolute">
    <axis xyz="0 0 1"/>
    <parent link="left_f2_1"/>
    <child link="left_f2_2"/>
    <origin rpy="0 0 0" xyz="0.05 0 0"/>
    <safety_controller k_position="1000.0" k_velocity="1000.0" soft_lower_limit="-11.57079" soft_upper_limit="11.57079"/>
    <dynamics damping="1.0"/>
    <limit effort="28" lower="-1.57079632679" upper="1.57079632679" velocity="-1"/>
  </joint>
  <joint name="left_f2_fixed_accel" type="fixed">
    <parent link="left_f2_base"/>
    <child link="left_f2_fixed_accel"/>
    <origin rpy="0 0 0" xyz="-0.05 0 0"/>
  </joint>
  <joint name="left_f2_1_accel" type="fixed">
    <parent link="left_f2_1"/>
    <child link="left_f2_1_accel"/>
    <origin rpy="-1.57079632679 0 0" xyz="0.03 0 0"/>
  </joint>
  <joint name="left_f2_2_accel" type="fixed">
    <parent link="left_f2_2"/>
    <child link="left_f2_2_accel"/>
    <origin rpy="-1.57079632679 0 0" xyz="0.04 0 0"/>
  </joint>
  <transmission name="left_f2_j0" type="pr2_mechanism_model/SimpleTransmission">
    <joint name="left_f2_j0"/>
    <actuator name="left_f2_j0_motor"/>
    <mechanicalReduction>1</mechanicalReduction>
  </transmission>
  <transmission name="left_f2_j1" type="pr2_mechanism_model/SimpleTransmission">
    <joint name="left_f2_j1"/>
    <actuator name="left_f2_j1_motor"/>
    <mechanicalReduction>1</mechanicalReduction>
  </transmission>
  <transmission name="left_f2_j2" type="pr2_mechanism_model/SimpleTransmission">
    <joint name="left_f2_j2"/>
    <actuator name="left_f2_j2_motor"/>
    <mechanicalReduction>1</mechanicalReduction>
  </transmission>
  <gazebo reference="left_f2_base">
    <mu1>0.9</mu1>
    <mu2>0.9</mu2>
    <kp>1000000.0</kp>
    <kd>1.0</kd>
    <maxVel>0.1</maxVel>
    <minDepth>0.001</minDepth>
    <material>Gazebo/FlatBlack</material>
  </gazebo>
  <gazebo reference="left_f2_0">
    <mu1>0.9</mu1>
    <mu2>0.9</mu2>
    <kp>1000000.0</kp>
    <kd>1.0</kd>
    <maxVel>0.1</maxVel>
    <minDepth>0.003</minDepth>
    <maxContacts>1</maxContacts>
    <material>Gazebo/FlatBlack</material>
  </gazebo>
  <gazebo reference="left_f2_1">
    <mu1>0.9</mu1>
    <mu2>0.9</mu2>
    <kp>1000000.0</kp>
    <kd>1.0</kd>
    <maxVel>0.1</maxVel>
    <minDepth>0.003</minDepth>
    <maxContacts>1</maxContacts>
    <material>Gazebo/FlatBlack</material>
  </gazebo>
  <gazebo reference="left_f2_2">
    <mu1>0.9</mu1>
    <mu2>0.9</mu2>
    <kp>1000000.0</kp>
    <kd>1.0</kd>
    <maxVel>0.1</maxVel>
    <minDepth>0.003</minDepth>
    <maxContacts>1</maxContacts>
    <material>Gazebo/FlatBlack</material>
  </gazebo>
  <gazebo reference="left_f2_j0">
    <cfmDamping>1</cfmDamping>
  </gazebo>
  <gazebo reference="left_f2_j1">
    <cfmDamping>1</cfmDamping>
  </gazebo>
  <gazebo reference="left_f2_j2">
    <cfmDamping>1</cfmDamping>
  </gazebo>
  <link name="left_f3_base">
    <origin rpy="0 0 0" xyz="0 0 0"/>
    <inertial>
      <!-- total mass is 2.303 kg, palm is about 1.303 kg, distribute the rest into _base -->
      <mass value="0.250"/>
      <!-- (2.303 - 1.303) / 4 -->
      <origin xyz="0 0 0"/>
      <!-- model as sphere with radius of 1cm -->
      <inertia ixx="0.00001" ixy="0" ixz="0" iyy="0.00001" iyz="0" izz="0.00001"/>
    </inertial>
  </link>
  <link name="left_f3_fixed_accel">
    <origin rpy="0 0 0" xyz="0 0 0"/>
    <inertial>
      <mass value="0.01"/>
      <origin xyz="0 0 0"/>
      <inertia ixx="0.000001" ixy="0" ixz="0" iyy="0.000001" iyz="0" izz="0.000001"/>
    </inertial>
  </link>
  <link name="left_f3_0">
    <origin rpy="0 0 0" xyz="0 0 0"/>
    <inertial>
      <mass value="0.106"/>
      <!-- F1 -->
      <origin xyz="0 0 0"/>
      <!-- solid cylinder -->
      <inertia ixx="0.000011925" ixy="0" ixz="0" iyy="0.00011505" iyz="0" izz="0.00011505"/>
    </inertial>
    <!-- begin simple shape approximation of f0 -->
    <collision group="default">
      <origin rpy="0 0 0" xyz="0 0 0.003"/>
      <geometry>
        <cylinder length="0.023" radius="0.015"/>
      </geometry>
    </collision>
    <collision group="other">
      <origin rpy="1.57079632679 0 0" xyz="0.011 0 0.003"/>
      <geometry>
        <cylinder length="0.023" radius="0.01"/>
      </geometry>
    </collision>
    <!--   end simple shape approximation of f0 -->
    <!-- begin visual shape approximation of f0 -->
    <visual>
      <origin rpy="0 0 0" xyz="0 0 0.003"/>
      <geometry>
        <cylinder length="0.023" radius="0.015"/>
      </geometry>
      <material name="left_sandia_hand_skin_suntan">
        <color rgba="0.7 0.4 0.2 1.0"/>
      </material>
    </visual>
    <visual>
      <origin rpy="1.57079632679 0 0" xyz="0.011 0 0.003"/>
      <geometry>
        <cylinder length="0.023" radius="0.01"/>
      </geometry>
      <material name="left_sandia_hand_skin_suntan">
        <color rgba="0.7 0.4 0.2 1.0"/>
      </material>
    </visual>
    <!--   end visual shape approximation of f0 -->
    <!-- begin collision mesh of f0 ->
      <collision group="default">
        <origin xyz="0 0 0" rpy="0 0 0"/>
        <geometry>
          <mesh filename="package://sandia_hand_description/meshes/f0.stl"/>
        </geometry>
      </collision>
      <!-   end collision mesh of f0 -->
    <!-- begin visual mesh of f0 ->
      <visual>
        <origin xyz="0 0 0" rpy="0 0 0"/>
        <geometry>
          <mesh filename="package://sandia_hand_description/meshes/f0.stl"/>
        </geometry>
        <material name="${side}_sandia_hand_skin_suntan">
          <color rgba="0.7 0.4 0.2 1.0"/>
        </material>
      </visual>
      <!-   end visual mesh of f0 -->
  </link>
  <link name="left_f3_1">
    <origin rpy="0 0 0" xyz="0 0 0"/>
    <inertial>
      <mass value="0.033"/>
      <!-- F2 -->
      <origin xyz="0 0 0"/>
      <!-- solid cylinder -->
      <inertia ixx="0.00000165" ixy="0" ixz="0" iyy="0.00001316975" iyz="0" izz="0.00001316975"/>
    </inertial>
    <!-- begin simple shape approximation of f1 -->
    <collision group="default">
      <origin rpy="0 1.57079632679 0" xyz="0.024 0 0"/>
      <geometry>
        <cylinder length="0.067" radius="0.01"/>
      </geometry>
    </collision>
    <!--   end simple shape approximation of f1 -->
    <!-- begin visual shape approximation of f1 -->
    <visual>
      <origin rpy="0 1.57079632679 0" xyz="0.024 0 0"/>
      <geometry>
        <cylinder length="0.067" radius="0.01"/>
      </geometry>
      <material name="left_sandia_hand_skin">
        <color rgba="0.835 0.655 0.345 1.0"/>
      </material>
    </visual>
    <!--   end visual shape approximation of f1 -->
    <!-- begin collision mesh of f1 ->
      <collision group="default">
        <origin xyz="0 0 0" rpy="0 0 0"/>
        <geometry>
          <mesh filename="package://sandia_hand_description/meshes/f1.stl"/>
        </geometry>
      </collision>
      <!-   end collision mesh of f1 -->
    <!-- begin visual mesh of f1 ->
      <visual>
        <origin xyz="0 0 0" rpy="0 0 0"/>
        <geometry>
          <mesh filename="package://sandia_hand_description/meshes/f1.stl"/>
        </geometry>
        <material name="${side}_sandia_hand_skin">
          <color rgba="0.835 0.655 0.345 1.0"/>
        </material>
      </visual>
      <!-   end visual mesh of f1 -->
  </link>
  <link name="left_f3_1_accel">
    <origin rpy="0 0 0" xyz="0 0 0"/>
    <inertial>
      <mass value="0.01"/>
      <origin xyz="0 0 0"/>
      <inertia ixx="0.000001" ixy="0" ixz="0" iyy="0.000001" iyz="0" izz="0.000001"/>
    </inertial>
  </link>
  <link name="left_f3_2">
    <origin rpy="0 0 0" xyz="0 0 0"/>
    <inertial>
      <mass value="0.033"/>
      <!-- F3 -->
      <origin xyz="0 0 0"/>
      <!-- solid cylinder -->
      <inertia ixx="0.0000013365" ixy="0" ixz="0" iyy="0.000009603" iyz="0" izz="0.000009603"/>
    </inertial>
    <!-- begin simple shape approximation of f2 -->
    <collision group="default">
      <origin rpy="0 1.57079632679 0" xyz="0.024 0 0"/>
      <geometry>
        <cylinder length="0.057" radius="0.009"/>
      </geometry>
    </collision>
    <collision group="other">
      <origin rpy="0 0 0" xyz="0.052 0 0"/>
      <geometry>
        <sphere radius="0.009"/>
      </geometry>
    </collision>
    <!--   end simple shape approximation of f2 -->
    <!-- begin visual shape approximation of f2 -->
    <visual>
      <origin rpy="0 1.57079632679 0" xyz="0.024 0 0"/>
      <geometry>
        <cylinder length="0.057" radius="0.009"/>
      </geometry>
      <material name="left_sandia_hand_skin_suntan">
        <color rgba="0.8 0.6 0.3 1.0"/>
      </material>
    </visual>
    <visual>
      <origin rpy="0 0 0" xyz="0.052 0 0"/>
      <geometry>
        <sphere radius="0.009"/>
      </geometry>
      <material name="left_sandia_hand_skin_suntan">
        <color rgba="0.8 0.6 0.3 1.0"/>
      </material>
    </visual>
    <!-- begin collision mesh of f2    ->
      <collision group="default">
        <origin xyz="0 0 0" rpy="0 0 0"/>
        <geometry>
          <mesh filename="package://sandia_hand_description/meshes/f2.stl"/>
        </geometry>
      </collision>
      <!-   end collision mesh of f2 -->
    <!-- begin visual mesh of f2    ->
      <visual>
        <origin xyz="0 0 0" rpy="0 0 0"/>
        <geometry>
          <mesh filename="package://sandia_hand_description/meshes/f2.stl"/>
        </geometry>
        <material name="${side}_sandia_hand_skin_suntan">
          <color rgba="0.8 0.6 0.3 1.0"/>
        </material>
      </visual>
      <!-   end visual mesh of f2 -->
  </link>
  <link name="left_f3_2_accel">
    <origin rpy="0 0 0" xyz="0 0 0"/>
    <inertial>
      <mass value="0.01"/>
      <origin xyz="0 0 0"/>
      <inertia ixx="0.000001" ixy="0" ixz="0" iyy="0.000001" iyz="0" izz="0.000001"/>
    </inertial>
  </link>
  <joint name="left_f3_base" type="fixed">
    <parent link="left_palm"/>
    <child link="left_f3_base"/>
    <origin rpy="0 -1.57079632679 2.3562" xyz="0.03995 0.04383 0.014"/>
  </joint>
  <joint name="left_f3_j0" type="revolute">
    <axis xyz="0 0 -1"/>
    <parent link="left_f3_base"/>
    <child link="left_f3_0"/>
    <limit effort="11" lower="-1.57079632679" upper="1.57079632679" velocity="-1"/>
    <safety_controller k_position="1000.0" k_velocity="1000.0" soft_lower_limit="-11.57079" soft_upper_limit="11.57079"/>
    <dynamics damping="1.0"/>
    <origin rpy="0 0 0" xyz="0 0 0"/>
  </joint>
  <joint name="left_f3_j1" type="revolute">
    <axis xyz="0 0 1"/>
    <parent link="left_f3_0"/>
    <child link="left_f3_1"/>
    <limit effort="28" lower="-1.57079632679" upper="1.57079632679" velocity="-1"/>
    <safety_controller k_position="1000.0" k_velocity="1000.0" soft_lower_limit="-11.57079" soft_upper_limit="11.57079"/>
    <dynamics damping="1.0"/>
    <origin rpy="1.57079632679 0 0" xyz="0.028 0 0"/>
  </joint>
  <joint name="left_f3_j2" type="revolute">
    <axis xyz="0 0 1"/>
    <parent link="left_f3_1"/>
    <child link="left_f3_2"/>
    <origin rpy="0 0 0" xyz="0.05 0 0"/>
    <safety_controller k_position="1000.0" k_velocity="1000.0" soft_lower_limit="-11.57079" soft_upper_limit="11.57079"/>
    <dynamics damping="1.0"/>
    <limit effort="28" lower="-1.57079632679" upper="1.57079632679" velocity="-1"/>
  </joint>
  <joint name="left_f3_fixed_accel" type="fixed">
    <parent link="left_f3_base"/>
    <child link="left_f3_fixed_accel"/>
    <origin rpy="0 0 0" xyz="-0.05 0 0"/>
  </joint>
  <joint name="left_f3_1_accel" type="fixed">
    <parent link="left_f3_1"/>
    <child link="left_f3_1_accel"/>
    <origin rpy="-1.57079632679 0 0" xyz="0.03 0 0"/>
  </joint>
  <joint name="left_f3_2_accel" type="fixed">
    <parent link="left_f3_2"/>
    <child link="left_f3_2_accel"/>
    <origin rpy="-1.57079632679 0 0" xyz="0.04 0 0"/>
  </joint>
  <transmission name="left_f3_j0" type="pr2_mechanism_model/SimpleTransmission">
    <joint name="left_f3_j0"/>
    <actuator name="left_f3_j0_motor"/>
    <mechanicalReduction>1</mechanicalReduction>
  </transmission>
  <transmission name="left_f3_j1" type="pr2_mechanism_model/SimpleTransmission">
    <joint name="left_f3_j1"/>
    <actuator name="left_f3_j1_motor"/>
    <mechanicalReduction>1</mechanicalReduction>
  </transmission>
  <transmission name="left_f3_j2" type="pr2_mechanism_model/SimpleTransmission">
    <joint name="left_f3_j2"/>
    <actuator name="left_f3_j2_motor"/>
    <mechanicalReduction>1</mechanicalReduction>
  </transmission>
  <gazebo reference="left_f3_base">
    <mu1>0.9</mu1>
    <mu2>0.9</mu2>
    <kp>1000000.0</kp>
    <kd>1.0</kd>
    <maxVel>0.1</maxVel>
    <minDepth>0.001</minDepth>
    <material>Gazebo/FlatBlack</material>
  </gazebo>
  <gazebo reference="left_f3_0">
    <mu1>0.9</mu1>
    <mu2>0.9</mu2>
    <kp>1000000.0</kp>
    <kd>1.0</kd>
    <maxVel>0.1</maxVel>
    <minDepth>0.003</minDepth>
    <maxContacts>1</maxContacts>
    <material>Gazebo/FlatBlack</material>
  </gazebo>
  <gazebo reference="left_f3_1">
    <mu1>0.9</mu1>
    <mu2>0.9</mu2>
    <kp>1000000.0</kp>
    <kd>1.0</kd>
    <maxVel>0.1</maxVel>
    <minDepth>0.003</minDepth>
    <maxContacts>1</maxContacts>
    <material>Gazebo/FlatBlack</material>
  </gazebo>
  <gazebo reference="left_f3_2">
    <mu1>0.9</mu1>
    <mu2>0.9</mu2>
    <kp>1000000.0</kp>
    <kd>1.0</kd>
    <maxVel>0.1</maxVel>
    <minDepth>0.003</minDepth>
    <maxContacts>1</maxContacts>
    <material>Gazebo/FlatBlack</material>
  </gazebo>
  <gazebo reference="left_f3_j0">
    <cfmDamping>1</cfmDamping>
  </gazebo>
  <gazebo reference="left_f3_j1">
    <cfmDamping>1</cfmDamping>
  </gazebo>
  <gazebo reference="left_f3_j2">
    <cfmDamping>1</cfmDamping>
  </gazebo>
  <gazebo reference="left_palm">
    <mu1>0.9</mu1>
    <mu2>0.9</mu2>
    <material>Gazebo/FlatBlack</material>
  </gazebo>
  <joint name="left_palm_left_camera_frame_joint" type="fixed">
    <origin rpy="-0.6708 -1.57079632679 3.14159265359" xyz="0.0435128991906 -0.0451672761576 0.025"/>
    <parent link="left_palm"/>
    <child link="left_palm_left_camera_frame"/>
  </joint>
  <link name="left_palm_left_camera_frame">
    <inertial>
      <mass value="0.01"/>
      <origin xyz="0 0 0"/>
      <inertia ixx="0.0001" ixy="0.0" ixz="0.0" iyy="0.0001" iyz="0.0" izz="0.0001"/>
    </inertial>
    <visual group="default">
      <origin rpy="0 0 0" xyz="0 0 0"/>
      <geometry>
        <box size="0.003 0.010 0.007"/>
      </geometry>
    </visual>
  </link>
  <joint name="left_palm_left_camera_optical_frame_joint" type="fixed">
    <origin rpy="-1.57079632679 0.0 -1.57079632679" xyz="0 0 0"/>
    <parent link="left_palm_left_camera_frame"/>
    <child link="left_palm_left_camera_optical_frame"/>
  </joint>
  <link name="left_palm_left_camera_optical_frame"/>
  <gazebo reference="left_palm_left_camera_frame">
    <sensor name="left_palm_stereo_camera" type="multicamera">
      <update_rate>30.0</update_rate>
      <camera name="left">
        <horizontal_fov>1.25663706144</horizontal_fov>
        <image>
          <width>752</width>
          <height>480</height>
          <format>L8</format>
        </image>
        <clip>
          <near>0.02</near>
          <far>100</far>
        </clip>
        <noise>
          <type>gaussian</type>
          <mean>0.0</mean>
          <stddev>0.007</stddev>
        </noise>
      </camera>
      <camera name="right">
        <pose>0 -0.04 0  0 0 0</pose>
        <horizontal_fov>1.25663706144</horizontal_fov>
        <image>
          <width>752</width>
          <height>480</height>
          <format>L8</format>
        </image>
        <clip>
          <near>0.02</near>
          <far>100</far>
        </clip>
        <noise>
          <type>gaussian</type>
          <mean>0.0</mean>
          <stddev>0.007</stddev>
        </noise>
      </camera>
      <plugin filename="libgazebo_ros_multicamera.so" name="stereo_camera_controller">
        <alwaysOn>true</alwaysOn>
        <updateRate>0.0</updateRate>
        <cameraName>sandia_hands/l_hand/camera</cameraName>
        <imageTopicName>image_raw</imageTopicName>
        <cameraInfoTopicName>camera_info</cameraInfoTopicName>
        <frameName>left_palm_left_camera_optical_frame</frameName>
        <hackBaseline>0.04</hackBaseline>
        <distortionK1>0.0</distortionK1>
        <distortionK2>0.0</distortionK2>
        <distortionK3>0.0</distortionK3>
        <distortionT1>0.0</distortionT1>
        <distortionT2>0.0</distortionT2>
      </plugin>
    </sensor>
  </gazebo>
  <joint name="left_palm_right_camera_frame_joint" type="fixed">
    <origin rpy="-0.6708 -1.57079632679 3.14159265359" xyz="0.0683774130138 -0.0138342911048 0.025"/>
    <parent link="left_palm"/>
    <child link="left_palm_right_camera_frame"/>
  </joint>
  <link name="left_palm_right_camera_frame">
    <inertial>
      <mass value="0.01"/>
      <origin xyz="0 0 0"/>
      <inertia ixx="0.0001" ixy="0.0" ixz="0.0" iyy="0.0001" iyz="0.0" izz="0.0001"/>
    </inertial>
    <visual group="default">
      <origin rpy="0 0 0" xyz="0 0 0"/>
      <geometry>
        <box size="0.003 0.010 0.007"/>
      </geometry>
    </visual>
  </link>
  <joint name="left_palm_right_camera_optical_frame_joint" type="fixed">
    <origin rpy="-1.57079632679 0.0 -1.57079632679" xyz="0 0 0"/>
    <parent link="left_palm_right_camera_frame"/>
    <child link="left_palm_right_camera_optical_frame"/>
  </joint>
  <link name="left_palm_right_camera_optical_frame"/>
  <gazebo>
    <plugin filename="libContactModelPlugin.so" name="sandia_contact_plugin">
      <contact>
        <collision>l_hand::l_hand_collision_left_palm</collision>
        <collision>l_hand::l_hand_collision_left_palm_1</collision>
        <collision>l_hand::l_hand_collision_left_palm_3</collision>
        <collision>l_hand::l_hand_collision_left_palm_4</collision>
        <collision>l_hand::l_hand_collision_left_palm_5</collision>
        <collision>left_f0_1::left_f0_1_collision</collision>
        <collision>left_f0_2::left_f0_2_collision</collision>
        <collision>left_f1_1::left_f1_1_collision</collision>
        <collision>left_f1_2::left_f1_2_collision</collision>
        <collision>left_f2_1::left_f2_1_collision</collision>
        <collision>left_f2_2::left_f2_2_collision</collision>
        <collision>left_f3_1::left_f3_1_collision</collision>
        <collision>left_f3_2::left_f3_2_collision</collision>
      </contact>
    </plugin>
  </gazebo>
  <gazebo reference="l_hand">
    <sensor name="imu_sensor" type="imu">
      <always_on>1</always_on>
      <update_rate>1000.0</update_rate>
      <imu>
        <noise>
          <type>gaussian</type>
          <rate>
            <mean>0.0</mean>
            <stddev>2e-4</stddev>
            <bias_mean>0.0000075</bias_mean>
            <bias_stddev>0.0000008</bias_stddev>
          </rate>
          <accel>
            <mean>0.0</mean>
            <stddev>1.7e-2</stddev>
            <bias_mean>0.1</bias_mean>
            <bias_stddev>0.001</bias_stddev>
          </accel>
        </noise>
      </imu>
    </sensor>
  </gazebo>
  <gazebo>
    <!-- robot model offset -->
    <pose>0 0 0.93 0 0 0</pose>
  </gazebo>
  <gazebo>
    <plugin filename="libAtlasPlugin.so" name="atlas_plugin"/>
    <plugin filename="libgazebo_ros_joint_trajectory.so" name="joint_trajectory_plugin">
      <topicName>joint_trajectory</topicName>
      <updateRate>1000.0</updateRate>
    </plugin>
    <!--
    <plugin filename="libgazebo_ros_controller_manager.so" name="gazebo_ros_controller_manager">
      <alwaysOn>true</alwaysOn>
      <updateRate>1000.0</updateRate>
    </plugin>
    -->
  </gazebo>
  <link name="imu_link">
    <inertial>
      <mass value="0.1"/>
      <origin xyz="0 0 0"/>
      <inertia ixx="0.001" ixy="0" ixz="0" iyy="0.001" iyz="0" izz="0.001"/>
    </inertial>
    <visual>
      <origin rpy="0 0 0" xyz="0 0 0"/>
      <geometry>
        <box size="0.01 0.01 0.01"/>
      </geometry>
    </visual>
  </link>
  <joint name="imu_joint" type="fixed">
    <parent link="pelvis"/>
    <child link="imu_link"/>
    <origin rpy="0 0 0" xyz="0.05991527603 0 -0.01415"/>
  </joint>
  <gazebo reference="imu_link">
    <!-- this is expected to be reparented to pelvis with appropriate offset
         when imu_link is reduced by fixed joint reduction -->
    <!-- todo: this is working with gazebo 1.4, need to write a unit test -->
    <sensor name="imu_sensor" type="imu">
      <always_on>1</always_on>
      <update_rate>1000.0</update_rate>
      <imu>
        <noise>
          <type>gaussian</type>
          <!-- Noise parameters from Boston Dynamics
               (http://gazebosim.org/wiki/Sensor_noise):
                 rates (rad/s): mean=0, stddev=2e-4
                 accels (m/s/s): mean=0, stddev=1.7e-2
                 rate bias (rad/s): 5e-6 - 1e-5
                 accel bias (m/s/s): 1e-1
               Experimentally, simulation provide rates with noise of
               about 1e-3 rad/s and accels with noise of about 1e-1 m/s/s.
               So we don't expect to see the noise unless number of inner iterations
               are increased.

               We will add bias.  In this model, bias is sampled once for rates
               and once for accels at startup; the sign (negative or positive)
               of each bias is then switched with equal probability.  Thereafter,
               the biases are fixed additive offsets.  We choose
               bias means and stddevs to produce biases close to the provided
               data. -->
          <rate>
            <mean>0.0</mean>
            <stddev>2e-4</stddev>
            <bias_mean>0.0000075</bias_mean>
            <bias_stddev>0.0000008</bias_stddev>
          </rate>
          <accel>
            <mean>0.0</mean>
            <stddev>1.7e-2</stddev>
            <bias_mean>0.1</bias_mean>
            <bias_stddev>0.001</bias_stddev>
          </accel>
        </noise>
      </imu>
    </sensor>
  </gazebo>
  <gazebo reference="l_arm_mwx">
    <provideFeedback>1</provideFeedback>
  </gazebo>
  <gazebo reference="r_arm_mwx">
    <provideFeedback>1</provideFeedback>
  </gazebo>
  <gazebo reference="l_leg_lax">
    <provideFeedback>1</provideFeedback>
    <cfmDamping>1</cfmDamping>
  </gazebo>
  <gazebo reference="r_leg_lax">
    <provideFeedback>1</provideFeedback>
    <cfmDamping>1</cfmDamping>
  </gazebo>
  <gazebo reference="r_foot">
    <!-- kp and kd for rubber -->
    <kp>1000000.0</kp>
    <kd>100.0</kd>
    <mu1>1.5</mu1>
    <mu2>1.5</mu2>
    <fdir1>1 0 0</fdir1>
    <maxVel>1.0</maxVel>
    <minDepth>0.00</minDepth>
  </gazebo>
  <gazebo reference="l_foot">
    <kp>1000000.0</kp>
    <kd>100.0</kd>
    <mu1>1.5</mu1>
    <mu2>1.5</mu2>
    <fdir1>1 0 0</fdir1>
    <maxVel>1.0</maxVel>
    <minDepth>0.00</minDepth>
  </gazebo>
  <gazebo reference="l_clav">
    <mu1>0.9</mu1>
    <mu2>0.9</mu2>
  </gazebo>
  <gazebo reference="l_farm">
    <mu1>0.9</mu1>
    <mu2>0.9</mu2>
  </gazebo>
  <gazebo reference="l_hand">
    <mu1>0.9</mu1>
    <mu2>0.9</mu2>
  </gazebo>
  <gazebo reference="l_larm">
    <mu1>0.9</mu1>
    <mu2>0.9</mu2>
  </gazebo>
  <gazebo reference="l_lglut">
    <mu1>0.9</mu1>
    <mu2>0.9</mu2>
  </gazebo>
  <gazebo reference="l_lleg">
    <mu1>0.9</mu1>
    <mu2>0.9</mu2>
  </gazebo>
  <gazebo reference="l_scap">
    <mu1>0.9</mu1>
    <mu2>0.9</mu2>
  </gazebo>
  <gazebo reference="l_talus">
    <mu1>0.9</mu1>
    <mu2>0.9</mu2>
  </gazebo>
  <gazebo reference="l_uarm">
    <mu1>0.9</mu1>
    <mu2>0.9</mu2>
  </gazebo>
  <gazebo reference="l_uglut">
    <mu1>0.9</mu1>
    <mu2>0.9</mu2>
  </gazebo>
  <gazebo reference="l_uleg">
    <mu1>0.9</mu1>
    <mu2>0.9</mu2>
  </gazebo>
  <gazebo reference="ltorso">
    <mu1>0.9</mu1>
    <mu2>0.9</mu2>
  </gazebo>
  <gazebo reference="mtorso">
    <mu1>0.9</mu1>
    <mu2>0.9</mu2>
  </gazebo>
  <gazebo reference="pelvis">
    <mu1>0.9</mu1>
    <mu2>0.9</mu2>
  </gazebo>
  <gazebo reference="r_clav">
    <mu1>0.9</mu1>
    <mu2>0.9</mu2>
  </gazebo>
  <gazebo reference="r_farm">
    <mu1>0.9</mu1>
    <mu2>0.9</mu2>
  </gazebo>
  <gazebo reference="r_hand">
    <mu1>0.9</mu1>
    <mu2>0.9</mu2>
  </gazebo>
  <gazebo reference="r_larm">
    <mu1>0.9</mu1>
    <mu2>0.9</mu2>
  </gazebo>
  <gazebo reference="r_lglut">
    <mu1>0.9</mu1>
    <mu2>0.9</mu2>
  </gazebo>
  <gazebo reference="r_lleg">
    <mu1>0.9</mu1>
    <mu2>0.9</mu2>
  </gazebo>
  <gazebo reference="r_scap">
    <mu1>0.9</mu1>
    <mu2>0.9</mu2>
  </gazebo>
  <gazebo reference="r_talus">
    <mu1>0.9</mu1>
    <mu2>0.9</mu2>
  </gazebo>
  <gazebo reference="r_uarm">
    <mu1>0.9</mu1>
    <mu2>0.9</mu2>
  </gazebo>
  <gazebo reference="r_uglut">
    <mu1>0.9</mu1>
    <mu2>0.9</mu2>
  </gazebo>
  <gazebo reference="r_uleg">
    <mu1>0.9</mu1>
    <mu2>0.9</mu2>
  </gazebo>
  <gazebo reference="utorso">
    <mu1>0.9</mu1>
    <mu2>0.9</mu2>
  </gazebo>
  <gazebo>
    <plugin filename="libgazebo_ros_p3d.so" name="gazebo_ros_p3d">
      <bodyName>pelvis</bodyName>
      <topicName>/ground_truth_odom</topicName>
      <alwaysOn>true</alwaysOn>
      <updateRate>100.0</updateRate>
    </plugin>
  </gazebo>
  <gazebo reference="r_foot">
    <!-- contact sensor -->
    <sensor name="r_foot_contact_sensor" type="contact">
      <update_rate>1000.0</update_rate>
      <always_on>1</always_on>
      <contact>
        <collision>r_foot_collision</collision>
        <topic>/r_foot_contact</topic>
      </contact>
    </sensor>
  </gazebo>
  <gazebo reference="l_foot">
    <!-- contact sensor -->
    <sensor name="l_foot_contact_sensor" type="contact">
      <update_rate>1000.0</update_rate>
      <always_on>1</always_on>
      <contact>
        <collision>l_foot_collision</collision>
        <topic>/l_foot_contact</topic>
      </contact>
    </sensor>
  </gazebo>
  <gazebo>
    <plugin filename="libgazebo_ros_force.so" name="gazebo_ros_force">
      <bodyName>pelvis</bodyName>
      <topicName>/atlas/apply_pelvis_force</topicName>
    </plugin>
  </gazebo>
  <gazebo reference="back_lbz">
    <cfmDamping>1</cfmDamping>
  </gazebo>
  <gazebo reference="back_mby">
    <cfmDamping>1</cfmDamping>
  </gazebo>
  <gazebo reference="back_ubx">
    <cfmDamping>1</cfmDamping>
  </gazebo>
  <gazebo reference="l_arm_elx">
    <cfmDamping>1</cfmDamping>
  </gazebo>
  <gazebo reference="l_arm_ely">
    <cfmDamping>1</cfmDamping>
  </gazebo>
  <gazebo reference="l_arm_mwx">
    <cfmDamping>1</cfmDamping>
  </gazebo>
  <gazebo reference="l_arm_shx">
    <cfmDamping>1</cfmDamping>
  </gazebo>
  <gazebo reference="l_arm_usy">
    <cfmDamping>1</cfmDamping>
  </gazebo>
  <gazebo reference="l_arm_uwy">
    <cfmDamping>1</cfmDamping>
  </gazebo>
  <gazebo reference="l_leg_kny">
    <cfmDamping>1</cfmDamping>
  </gazebo>
  <gazebo reference="l_leg_lhy">
    <cfmDamping>1</cfmDamping>
  </gazebo>
  <gazebo reference="l_leg_mhx">
    <cfmDamping>1</cfmDamping>
  </gazebo>
  <gazebo reference="l_leg_uay">
    <cfmDamping>1</cfmDamping>
  </gazebo>
  <gazebo reference="l_leg_uhz">
    <cfmDamping>1</cfmDamping>
  </gazebo>
  <gazebo reference="neck_ay">
    <cfmDamping>1</cfmDamping>
  </gazebo>
  <gazebo reference="r_arm_elx">
    <cfmDamping>1</cfmDamping>
  </gazebo>
  <gazebo reference="r_arm_ely">
    <cfmDamping>1</cfmDamping>
  </gazebo>
  <gazebo reference="r_arm_mwx">
    <cfmDamping>1</cfmDamping>
  </gazebo>
  <gazebo reference="r_arm_shx">
    <cfmDamping>1</cfmDamping>
  </gazebo>
  <gazebo reference="r_arm_usy">
    <cfmDamping>1</cfmDamping>
  </gazebo>
  <gazebo reference="r_arm_uwy">
    <cfmDamping>1</cfmDamping>
  </gazebo>
  <gazebo reference="r_leg_kny">
    <cfmDamping>1</cfmDamping>
  </gazebo>
  <gazebo reference="r_leg_lhy">
    <cfmDamping>1</cfmDamping>
  </gazebo>
  <gazebo reference="r_leg_mhx">
    <cfmDamping>1</cfmDamping>
  </gazebo>
  <gazebo reference="r_leg_uay">
    <cfmDamping>1</cfmDamping>
  </gazebo>
  <gazebo reference="r_leg_uhz">
    <cfmDamping>1</cfmDamping>
  </gazebo>
  <transmission name="head_hokuyo_trans" type="pr2_mechanism_model/SimpleTransmission">
    <joint name="hokuyo_joint"/>
    <actuator name="hokuyo_motor"/>
    <mechanicalReduction>1</mechanicalReduction>
  </transmission>
  <transmission name="back_lbz_trans" type="pr2_mechanism_model/SimpleTransmission">
    <joint name="back_lbz"/>
    <actuator name="back_lbz_motor"/>
    <mechanicalReduction>1</mechanicalReduction>
  </transmission>
  <transmission name="back_mby_trans" type="pr2_mechanism_model/SimpleTransmission">
    <actuator name="back_mby_motor"/>
    <joint name="back_mby"/>
    <mechanicalReduction>1</mechanicalReduction>
  </transmission>
  <transmission name="back_ubx_trans" type="pr2_mechanism_model/SimpleTransmission">
    <actuator name="back_ubx_motor"/>
    <joint name="back_ubx"/>
    <mechanicalReduction>1</mechanicalReduction>
  </transmission>
  <transmission name="l_arm_elx_trans" type="pr2_mechanism_model/SimpleTransmission">
    <actuator name="l_arm_elx_motor"/>
    <joint name="l_arm_elx"/>
    <mechanicalReduction>1</mechanicalReduction>
  </transmission>
  <transmission name="l_arm_ely_trans" type="pr2_mechanism_model/SimpleTransmission">
    <actuator name="l_arm_ely_motor"/>
    <joint name="l_arm_ely"/>
    <mechanicalReduction>1</mechanicalReduction>
  </transmission>
  <transmission name="l_arm_mwx_trans" type="pr2_mechanism_model/SimpleTransmission">
    <actuator name="l_arm_mwx_motor"/>
    <joint name="l_arm_mwx"/>
    <mechanicalReduction>1</mechanicalReduction>
  </transmission>
  <transmission name="l_arm_shx_trans" type="pr2_mechanism_model/SimpleTransmission">
    <actuator name="l_arm_shx_motor"/>
    <joint name="l_arm_shx"/>
    <mechanicalReduction>1</mechanicalReduction>
  </transmission>
  <transmission name="l_arm_usy_trans" type="pr2_mechanism_model/SimpleTransmission">
    <actuator name="l_arm_usy_motor"/>
    <joint name="l_arm_usy"/>
    <mechanicalReduction>1</mechanicalReduction>
  </transmission>
  <transmission name="l_arm_uwy_trans" type="pr2_mechanism_model/SimpleTransmission">
    <actuator name="l_arm_uwy_motor"/>
    <joint name="l_arm_uwy"/>
    <mechanicalReduction>1</mechanicalReduction>
  </transmission>
  <transmission name="l_leg_kny_trans" type="pr2_mechanism_model/SimpleTransmission">
    <actuator name="l_leg_kny_motor"/>
    <joint name="l_leg_kny"/>
    <mechanicalReduction>1</mechanicalReduction>
  </transmission>
  <transmission name="l_leg_lax_trans" type="pr2_mechanism_model/SimpleTransmission">
    <actuator name="l_leg_lax_motor"/>
    <joint name="l_leg_lax"/>
    <mechanicalReduction>1</mechanicalReduction>
  </transmission>
  <transmission name="l_leg_lhy_trans" type="pr2_mechanism_model/SimpleTransmission">
    <actuator name="l_leg_lhy_motor"/>
    <joint name="l_leg_lhy"/>
    <mechanicalReduction>1</mechanicalReduction>
  </transmission>
  <transmission name="l_leg_mhx_trans" type="pr2_mechanism_model/SimpleTransmission">
    <actuator name="l_leg_mhx_motor"/>
    <joint name="l_leg_mhx"/>
    <mechanicalReduction>1</mechanicalReduction>
  </transmission>
  <transmission name="l_leg_uay_trans" type="pr2_mechanism_model/SimpleTransmission">
    <actuator name="l_leg_uay_motor"/>
    <joint name="l_leg_uay"/>
    <mechanicalReduction>1</mechanicalReduction>
  </transmission>
  <transmission name="l_leg_uhz_trans" type="pr2_mechanism_model/SimpleTransmission">
    <actuator name="l_leg_uhz_motor"/>
    <joint name="l_leg_uhz"/>
    <mechanicalReduction>1</mechanicalReduction>
  </transmission>
  <transmission name="neck_ay_trans" type="pr2_mechanism_model/SimpleTransmission">
    <actuator name="neck_ay_motor"/>
    <joint name="neck_ay"/>
    <mechanicalReduction>1</mechanicalReduction>
  </transmission>
  <transmission name="r_arm_elx_trans" type="pr2_mechanism_model/SimpleTransmission">
    <actuator name="r_arm_elx_motor"/>
    <joint name="r_arm_elx"/>
    <mechanicalReduction>1</mechanicalReduction>
  </transmission>
  <transmission name="r_arm_ely_trans" type="pr2_mechanism_model/SimpleTransmission">
    <actuator name="r_arm_ely_motor"/>
    <joint name="r_arm_ely"/>
    <mechanicalReduction>1</mechanicalReduction>
  </transmission>
  <transmission name="r_arm_mwx_trans" type="pr2_mechanism_model/SimpleTransmission">
    <actuator name="r_arm_mwx_motor"/>
    <joint name="r_arm_mwx"/>
    <mechanicalReduction>1</mechanicalReduction>
  </transmission>
  <transmission name="r_arm_shx_trans" type="pr2_mechanism_model/SimpleTransmission">
    <actuator name="r_arm_shx_motor"/>
    <joint name="r_arm_shx"/>
    <mechanicalReduction>1</mechanicalReduction>
  </transmission>
  <transmission name="r_arm_usy_trans" type="pr2_mechanism_model/SimpleTransmission">
    <actuator name="r_arm_usy_motor"/>
    <joint name="r_arm_usy"/>
    <mechanicalReduction>1</mechanicalReduction>
  </transmission>
  <transmission name="r_arm_uwy_trans" type="pr2_mechanism_model/SimpleTransmission">
    <actuator name="r_arm_uwy_motor"/>
    <joint name="r_arm_uwy"/>
    <mechanicalReduction>1</mechanicalReduction>
  </transmission>
  <transmission name="r_leg_kny_trans" type="pr2_mechanism_model/SimpleTransmission">
    <actuator name="r_leg_kny_motor"/>
    <joint name="r_leg_kny"/>
    <mechanicalReduction>1</mechanicalReduction>
  </transmission>
  <transmission name="r_leg_lax_trans" type="pr2_mechanism_model/SimpleTransmission">
    <actuator name="r_leg_lax_motor"/>
    <joint name="r_leg_lax"/>
    <mechanicalReduction>1</mechanicalReduction>
  </transmission>
  <transmission name="r_leg_lhy_trans" type="pr2_mechanism_model/SimpleTransmission">
    <actuator name="r_leg_lhy_motor"/>
    <joint name="r_leg_lhy"/>
    <mechanicalReduction>1</mechanicalReduction>
  </transmission>
  <transmission name="r_leg_mhx_trans" type="pr2_mechanism_model/SimpleTransmission">
    <actuator name="r_leg_mhx_motor"/>
    <joint name="r_leg_mhx"/>
    <mechanicalReduction>1</mechanicalReduction>
  </transmission>
  <transmission name="r_leg_uay_trans" type="pr2_mechanism_model/SimpleTransmission">
    <actuator name="r_leg_uay_motor"/>
    <joint name="r_leg_uay"/>
    <mechanicalReduction>1</mechanicalReduction>
  </transmission>
  <transmission name="r_leg_uhz_trans" type="pr2_mechanism_model/SimpleTransmission">
    <actuator name="r_leg_uhz_motor"/>
    <joint name="r_leg_uhz"/>
    <mechanicalReduction>1</mechanicalReduction>
  </transmission>
  <link name="head">
    <inertial>
      <origin rpy="0 0 0" xyz="-0.075493 3.3383E-05 0.02774"/>
      <mass value="1.41984"/>
      <!--<inertia iyy="0.0041178" ixy="-1.5797E-06" iyz="-6.8415E-07" ixx="0.0039688" ixz="-0.00089293" izz="0.0035243" />-->
      <inertia ixx="0.0036053766" ixy="-1.5797E-06" ixz="-0.00089293" iyy="0.002080106" iyz="-6.8415E-07" izz="0.001782985"/>
    </inertial>
    <visual>
      <origin rpy="0 0 0" xyz="0 0 0"/>
      <geometry>
        <mesh filename="package://multisense_sl_description/meshes/head.dae"/>
      </geometry>
      <material name="">
        <color rgba="0.9098 0.44314 0.031373 1"/>
      </material>
    </visual>
    <collision group="default">
      <origin rpy="0 0 0" xyz="-0.0503 0 -0.00195"/>
      <geometry>
        <box size="0.1311 0.12 0.0591"/>
      </geometry>
    </collision>
    <collision group="other">
      <origin rpy="0 0 0" xyz="-0.093 0 0.0868"/>
      <geometry>
        <box size="0.0468 0.12 0.1184"/>
      </geometry>
    </collision>
  </link>
  <link name="hokuyo_link">
    <inertial>
      <origin rpy="0 0 0" xyz="0.012428 0.0004084 -0.0041835"/>
      <mass value="0.057654"/>
      <!--<inertia iyy="4.2412E-05" ixy="4.9927E-08" iyz="-9.8165E-09" ixx="3.7174E-05" ixz="1.1015E-05" izz="4.167E-05" />-->
      <!-- distribute iyy and izz equally between head and hokuyo_link given it's constrainted anyways -->
      <!-- tweak ixx of hokuyo so it's larger, 1/10th of head ixx. -->
      <inertia ixx="0.0004005974" ixy="4.9927E-08" ixz="1.1015E-05" iyy="0.002080106" iyz="-9.8165E-09" izz="0.001782985"/>
    </inertial>
    <visual>
      <!--origin xyz="0.065774 -0.001163 -0.08809" rpy="0 0 0" /-->
      <!--origin xyz="0.045 -0.001163 -0.08809" rpy="-0.314 0 0" /-->
      <origin rpy="-0.314 0 0" xyz="0.045 -0.0261018277 -0.08342369"/>
      <geometry>
        <mesh filename="package://multisense_sl_description/meshes/head_camera.dae"/>
      </geometry>
      <material name="">
        <color rgba="0.72941 0.35686 0.023529 1"/>
      </material>
    </visual>
    <collision group="default">
      <origin rpy="0 0 0" xyz="0.01885 0 -0.02119"/>
      <geometry>
        <box size="0.08 0.06 0.04238"/>
      </geometry>
    </collision>
    <collision group="other">
      <origin rpy="0 0 0" xyz="0.03 0 0.0235"/>
      <geometry>
        <cylinder length="0.047" radius="0.024425"/>
      </geometry>
    </collision>
  </link>
  <joint name="hokuyo_joint" type="continuous">
    <origin rpy="0 0 0" xyz="-0.0446 0 0.0880"/>
    <parent link="head"/>
    <child link="hokuyo_link"/>
    <axis xyz="1 0 0"/>
    <dynamics damping="0.01" friction="0"/>
  </joint>
  <joint name="head_hokuyo_joint" type="fixed">
    <axis xyz="0 1 0"/>
    <origin rpy="0 0 0" xyz="0.03 0 0.015"/>
    <parent link="hokuyo_link"/>
    <child link="head_hokuyo_frame"/>
  </joint>
  <link name="head_hokuyo_frame">
    <inertial>
      <mass value="1e-5"/>
      <!-- collocate with parent link and remove mass from it -->
      <origin rpy="0 0 0" xyz="0.042428 0.0004084 0.0108165"/>
      <inertia ixx="1e-6" ixy="0" ixz="0" iyy="1e-6" iyz="0" izz="1e-6"/>
    </inertial>
  </link>
  <gazebo reference="head_hokuyo_frame">
    <sensor name="head_hokuyo_sensor" type="gpu_ray">
      <pose>0 0 0 0 0 0</pose>
      <visualize>false</visualize>
      <update_rate>40</update_rate>
      <ray>
        <scan>
          <horizontal>
            <samples>720</samples>
            <resolution>1</resolution>
            <min_angle>-1.570796</min_angle>
            <max_angle>1.570796</max_angle>
          </horizontal>
        </scan>
        <range>
          <min>0.10</min>
          <max>30.0</max>
          <resolution>0.01</resolution>
        </range>
        <noise>
          <type>gaussian</type>
          <!-- Noise parameters based on published spec for Hokuyo laser
               achieving "+-30mm" accuracy at range < 10m.  A mean of 0.0m and
               stddev of 0.01m will put 99.7% of samples within 0.03m of the true
               reading. -->
          <mean>0.0</mean>
          <stddev>0.01</stddev>
        </noise>
      </ray>
      <plugin filename="libgazebo_ros_gpu_laser.so" name="gazebo_ros_head_hokuyo_controller">
        <topicName>/multisense_sl/laser/scan</topicName>
        <frameName>head_hokuyo_frame</frameName>
      </plugin>
    </sensor>
  </gazebo>
  <joint name="left_camera_frame_joint" type="fixed">
    <!-- optical frame collocated with tilting DOF -->
    <origin xyz="0.0 0.035 -0.002"/>
    <parent link="head"/>
    <child link="left_camera_frame"/>
  </joint>
  <link name="left_camera_frame">
    <inertial>
      <mass value="1e-5"/>
      <!-- collocate with parent link and remove mass from it -->
      <origin xyz="-0.075493 0.035033383 0.02574"/>
      <inertia ixx="1e-6" ixy="0" ixz="0" iyy="1e-6" iyz="0" izz="1e-6"/>
    </inertial>
  </link>
  <joint name="left_camera_optical_frame_joint" type="fixed">
    <origin rpy="-1.5708 0.0 -1.5708" xyz="0 0 0"/>
    <parent link="left_camera_frame"/>
    <child link="left_camera_optical_frame"/>
  </joint>
  <link name="left_camera_optical_frame"/>
  <gazebo reference="left_camera_frame">
    <sensor name="stereo_camera" type="multicamera">
      <!-- see MultiSenseSLPlugin.h for available modes -->
      <update_rate>30.0</update_rate>
      <camera name="left">
        <!-- Spec sheet says 80deg X 45deg @ 1024x544pix.  Based on feedback
             from teams, we're instead doing 80deg X 80deg @ 800x800pix. -->
        <horizontal_fov>1.3962634</horizontal_fov>
        <image>
          <width>800</width>
          <height>800</height>
          <format>R8G8B8</format>
        </image>
        <clip>
          <near>0.02</near>
          <far>300</far>
        </clip>
        <noise>
          <type>gaussian</type>
          <!-- Noise is sampled independently per pixel on each frame.  
               That pixel's noise value is added to each of its color
               channels, which at that point lie in the range [0,1].
               The stddev value of 0.007 is based on experimental data 
               from a camera in a Sandia hand pointed at a static scene
               in a couple of different lighting conditions.  -->
          <mean>0.0</mean>
          <stddev>0.007</stddev>
        </noise>
      </camera>
      <camera name="right">
        <pose>0 -0.07 0 0 0 0</pose>
        <!-- Spec sheet says 80deg X 45deg @ 1024x544pix.  Based on feedback
             from teams, we're instead doing 80deg X 80deg @ 800x800pix. -->
        <horizontal_fov>1.3962634</horizontal_fov>
        <image>
          <width>800</width>
          <height>800</height>
          <format>R8G8B8</format>
        </image>
        <clip>
          <near>0.02</near>
          <far>300</far>
        </clip>
        <noise>
          <type>gaussian</type>
          <!-- Noise is sampled independently per pixel on each frame.  
               That pixel's noise value is added to each of its color
               channels, which at that point lie in the range [0,1].
               The stddev value of 0.007 is based on experimental data 
               from a camera in a Sandia hand pointed at a static scene
               in a couple of different lighting conditions.  -->
          <mean>0.0</mean>
          <stddev>0.007</stddev>
        </noise>
      </camera>
      <plugin filename="libgazebo_ros_multicamera.so" name="stereo_camera_controller">
        <alwaysOn>true</alwaysOn>
        <updateRate>0.0</updateRate>
        <cameraName>multisense_sl/camera</cameraName>
        <imageTopicName>image_raw</imageTopicName>
        <cameraInfoTopicName>camera_info</cameraInfoTopicName>
        <frameName>left_camera_optical_frame</frameName>
        <!--<rightFrameName>right_camera_optical_frame</rightFrameName>-->
        <hackBaseline>0.07</hackBaseline>
        <distortionK1>0.0</distortionK1>
        <distortionK2>0.0</distortionK2>
        <distortionK3>0.0</distortionK3>
        <distortionT1>0.0</distortionT1>
        <distortionT2>0.0</distortionT2>
      </plugin>
    </sensor>
  </gazebo>
  <joint name="right_camera_frame_joint" type="fixed">
    <origin xyz="0.0 -0.035 -0.002"/>
    <parent link="head"/>
    <child link="right_camera_frame"/>
  </joint>
  <link name="right_camera_frame">
    <inertial>
      <mass value="1e-5"/>
      <!-- collocate with parent link and remove mass from it -->
      <origin xyz="-0.075493 -0.034966617 0.02574"/>
      <inertia ixx="1e-6" ixy="0" ixz="0" iyy="1e-6" iyz="0" izz="1e-6"/>
    </inertial>
  </link>
  <joint name="right_camera_optical_frame_joint" type="fixed">
    <origin rpy="-1.5708 0.0 -1.5708" xyz="0 0 0"/>
    <parent link="right_camera_frame"/>
    <child link="right_camera_optical_frame"/>
  </joint>
  <link name="right_camera_optical_frame"/>
  <joint name="center_top_led_frame_joint" type="fixed">
    <origin xyz="0.01125 0.0 0.0105"/>
    <parent link="head"/>
    <child link="center_top_led_frame"/>
  </joint>
  <link name="center_top_led_frame">
    <inertial>
      <mass value="1e-5"/>
      <!-- collocate with parent link and remove mass from it -->
      <origin rpy="0 0 0" xyz="-0.064243 0.000033383 0.03824"/>
      <inertia ixx="1e-6" ixy="0" ixz="0" iyy="1e-6" iyz="0" izz="1e-6"/>
    </inertial>
  </link>
  <joint name="center_bottom_led_frame_joint" type="fixed">
    <origin xyz="0.01125 0.0 -0.0155"/>
    <parent link="head"/>
    <child link="center_bottom_led_frame"/>
  </joint>
  <link name="center_bottom_led_frame">
    <inertial>
      <mass value="1e-5"/>
      <!-- collocate with parent link and remove mass from it -->
      <origin rpy="0 0 0" xyz="-0.064243 0.000033383 0.01224"/>
      <inertia ixx="1e-6" ixy="0" ixz="0" iyy="1e-6" iyz="0" izz="1e-6"/>
    </inertial>
  </link>
  <joint name="left_led_frame_joint" type="fixed">
    <origin rpy="0 -0.15 0.53" xyz="-0.01443 0.07452 0.050346"/>
    <parent link="head"/>
    <child link="left_led_frame"/>
  </joint>
  <link name="left_led_frame">
    <inertial>
      <mass value="1e-5"/>
      <!-- collocate with parent link and remove mass from it -->
      <origin rpy="0 -0.15 0.53" xyz="-0.089923 0.074553383 0.078086"/>
      <inertia ixx="1e-6" ixy="0" ixz="0" iyy="1e-6" iyz="0" izz="1e-6"/>
    </inertial>
  </link>
  <joint name="right_led_frame_joint" type="fixed">
    <origin rpy="0 -0.15 -0.53" xyz="-0.01443 -0.07452 0.050346"/>
    <parent link="head"/>
    <child link="right_led_frame"/>
  </joint>
  <link name="right_led_frame">
    <inertial>
      <mass value="1e-5"/>
      <!-- collocate with parent link and remove mass from it -->
      <origin rpy="0 -0.15 -0.53" xyz="-0.089923 -0.074486617 0.07908"/>
      <inertia ixx="1e-6" ixy="0" ixz="0" iyy="1e-6" iyz="0" izz="1e-6"/>
    </inertial>
  </link>
  <gazebo>
    <plugin filename="libMultiSenseSLPlugin.so" name="multisense_plugin"/>
  </gazebo>
  <link name="head_imu_link">
    <inertial>
      <mass value="1e-5"/>
      <!-- collocate with parent link and remove mass from it -->
      <origin rpy="0 0 0" xyz="-0.122993 0.035033383 0.02774"/>
      <inertia ixx="1e-6" ixy="0" ixz="0" iyy="1e-6" iyz="0" izz="1e-6"/>
    </inertial>
    <visual>
      <origin rpy="0 0 0" xyz="0 0 0"/>
      <geometry>
        <box size="0.01 0.01 0.01"/>
      </geometry>
    </visual>
  </link>
  <joint name="head_imu_joint" type="fixed">
    <parent link="head"/>
    <child link="head_imu_link"/>
    <!-- putting it at the same z-level as the stereo -->
    <origin rpy="0 0 0" xyz="-0.0475 0.035 0.0"/>
  </joint>
  <gazebo reference="head_imu_link">
    <!-- this is expected to be reparented to head with appropriate offset
         when head_imu_link is reduced by fixed joint reduction -->
    <!-- todo: this is working with gazebo 1.4, need to write a unit test -->
    <sensor name="head_imu_sensor" type="imu">
      <always_on>1</always_on>
      <update_rate>1000.0</update_rate>
      <imu>
        <noise>
          <type>gaussian</type>
          <!-- Noise parameters from Boston Dynamics
               (http://gazebosim.org/wiki/Sensor_noise):
                 rates (rad/s): mean=0, stddev=2e-4
                 accels (m/s/s): mean=0, stddev=1.7e-2
                 rate bias (rad/s): 5e-6 - 1e-5
                 accel bias (m/s/s): 1e-1
               Experimentally, simulation provide rates with noise of
               about 1e-3 rad/s and accels with noise of about 1e-1 m/s/s.
               So we don't expect to see the noise unless number of inner iterations
               are increased.

               We will add bias.  In this model, bias is sampled once for rates
               and once for accels at startup; the sign (negative or positive)
               of each bias is then switched with equal probability.  Thereafter,
               the biases are fixed additive offsets.  We choose
               bias means and stddevs to produce biases close to the provided
               data. -->
          <rate>
            <mean>0.0</mean>
            <stddev>2e-4</stddev>
            <bias_mean>0.0000075</bias_mean>
            <bias_stddev>0.0000008</bias_stddev>
          </rate>
          <accel>
            <mean>0.0</mean>
            <stddev>1.7e-2</stddev>
            <bias_mean>0.1</bias_mean>
            <bias_stddev>0.001</bias_stddev>
          </accel>
        </noise>
      </imu>
    </sensor>
  </gazebo>
  <gazebo>
    <!-- include plugin for sandia hands -->
    <plugin filename="libSandiaHandPlugin.so" name="sandia_hand_plugin"/>
  </gazebo>
</robot>
